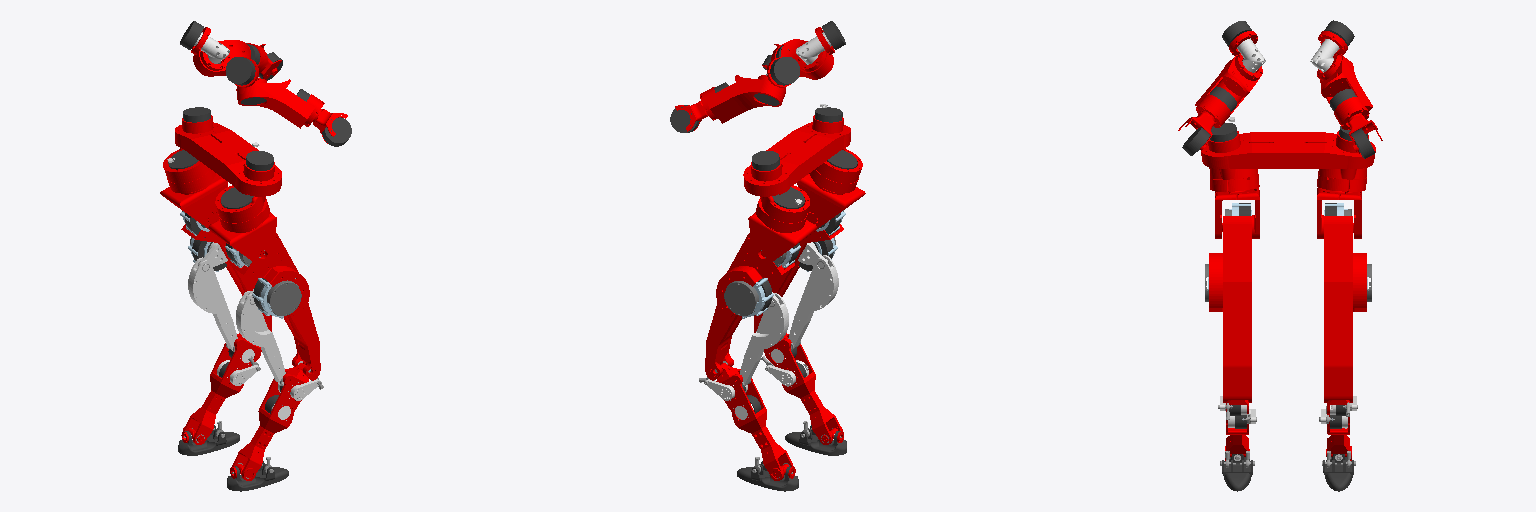
--- Render facts (derived) ---
3 views of the same robot in one strip: view 1: azimuth 30°, elevation 25°; view 2: azimuth 150°, elevation 25°; view 3: azimuth 270°, elevation 25° (orthographic).
Robot: urdf — 27 links, 26 joints (20 revolute, 6 fixed); root link torso_subassembly; default pose: every joint at zero.
Links seen in each view (by area): view 1: tigh_subassembly, torso_subassembly, tigh_subassembly_sym, shin_subassembly, shin_subassembly_sym, shoulder2_subassembly, hipx_subassembly, hipy_subassembly, hipx_subassemby_sym, hipy_subassembly_sym, torso_subassembly_2, shoulder2_subassembly_2 (+3 smaller); view 2: tigh_subassembly_sym, torso_subassembly, tigh_subassembly, shin_subassembly_sym, shin_subassembly, shoulder2_subassembly_2, hipx_subassemby_sym, hipy_subassembly_sym, hipx_subassembly, hipy_subassembly, torso_subassembly_2, shoulder2_subassembly (+3 smaller); view 3: tigh_subassembly_sym, tigh_subassembly, torso_subassembly, shoulder2_subassembly, shoulder2_subassembly_2, shin_subassembly_sym, shin_subassembly, torso_subassembly_2, hipx_subassemby_sym, hipx_subassembly, hipy_subassembly_sym, foot_subassembly (+6 smaller).
Link boxes in pixels (x1,y1,x2,y2): tigh_subassembly: (225,233,320,385); torso_subassembly: (175,107,281,196); tigh_subassembly_sym: (180,211,271,351); shin_subassembly: (232,363,323,480); shin_subassembly_sym: (183,333,261,444); shoulder2_subassembly: (236,78,324,128); hipx_subassembly: (215,185,269,232); hipy_subassembly: (208,212,276,265); hipx_subassemby_sym: (163,148,216,193); hipy_subassembly_sym: (160,174,227,228); torso_subassembly_2: (180,21,258,87); shoulder2_subassembly_2: (193,40,267,76); tigh_subassembly_sym: (705,233,800,387); torso_subassembly: (743,104,850,196); tigh_subassembly: (754,210,845,350); shin_subassembly_sym: (699,363,793,480); shin_subassembly: (761,333,842,444); shoulder2_subassembly_2: (700,75,785,123); hipx_subassemby_sym: (756,185,809,232); hipy_subassembly_sym: (748,212,816,265); hipx_subassembly: (809,148,862,193); hipy_subassembly: (797,174,865,228); torso_subassembly_2: (767,21,845,87); shoulder2_subassembly: (771,39,833,79); tigh_subassembly_sym: (1324,203,1371,402); tigh_subassembly: (1205,203,1251,402); torso_subassembly: (1201,117,1375,168); shoulder2_subassembly: (1195,53,1262,127); shoulder2_subassembly_2: (1317,52,1372,129); shin_subassembly_sym: (1319,396,1357,460); shin_subassembly: (1218,396,1256,460); torso_subassembly_2: (1222,20,1354,55); hipx_subassemby_sym: (1317,168,1366,193); hipx_subassembly: (1209,168,1259,193); hipy_subassembly_sym: (1317,187,1361,238); foot_subassembly: (1220,451,1254,491).
Bounding box of the posed robot: 0.3127 × 0.4249 × 1.02 m (x, y, z).
184 mesh visuals loaded from 59 distinct referenced files (56 binary STL); not drawn: 11 (reference not matched to a file when rendering).

URDF robot description (urdf):
<?xml version="1.0" ?>
<!-- Generated using onshape-to-robot -->
<!-- Onshape https://cad.onshape.com/documents/fb645318a27646d1d8840be6/w/d1cae8805fb652b4d1614997/e/64ce30b04dcb58987e9083b2 -->
<robot name="urdf">
  <!-- Link torso_subassembly -->
  <link name="torso_subassembly">
    <inertial>
      <origin xyz="-0.000697254 4.08729e-07 0.0361785" rpy="0 0 0"/>
      <mass value="1.37455"/>
      <inertia ixx="0.0195228" ixy="-3.0234e-10" ixz="1.40229e-06" iyy="0.00129235" iyz="1.22091e-10" izz="0.0197822"/>
    </inertial>
    <!-- Part rs00 -->
    <!-- Part torso22 -->
    <visual>
      <origin xyz="-0.000263039 0.233572 -0.0901625" rpy="-2.85923 1.2395e-17 -3.14159"/>
      <geometry>
        <mesh filename="package://assets/torso22.stl"/>
      </geometry>
      <material name="torso22_material">
        <color rgba="1 0 0 1"/>
      </material>
    </visual>
    <collision>
      <origin xyz="-0.000263039 0.233572 -0.0901625" rpy="-2.85923 1.2395e-17 -3.14159"/>
      <geometry>
        <mesh filename="package://assets/torso22.stl"/>
      </geometry>
    </collision>
    <!-- Part hex_socket_head_cap_screw_m4x0_70_x_20__832e47d784177ea3f1dabbaab534416e -->
    <!-- Part rs00_2 -->
    <!-- Part hex_socket_head_cap_screw_m4x0_70_x_20__832e47d784177ea3f1dabbaab534416e_2 -->
    <!-- Part hex_socket_head_cap_screw_m3x0_50_x_8__d566997e1880d7fd3377c5b0ee12206c -->
    <!-- Part hex_socket_head_cap_screw_m3x0_50_x_8__d566997e1880d7fd3377c5b0ee12206c_2 -->
    <!-- Part bearing_35_72_17 -->
    <visual>
      <origin xyz="-0.000887454 -0.130401 0.0222352" rpy="1.42962 -0.00345593 -3.1411"/>
      <geometry>
        <mesh filename="package://assets/bearing_35_72_17.stl"/>
      </geometry>
      <material name="bearing_35_72_17_material">
        <color rgba="0.768627 0.886275 0.952941 1"/>
      </material>
    </visual>
    <collision>
      <origin xyz="-0.000887454 -0.130401 0.0222352" rpy="1.42962 -0.00345593 -3.1411"/>
      <geometry>
        <mesh filename="package://assets/bearing_35_72_17.stl"/>
      </geometry>
    </collision>
    <!-- Part hex_socket_head_cap_screw_m4x0_70_x_20__832e47d784177ea3f1dabbaab534416e_3 -->
    <!-- Part hex_socket_head_cap_screw_m4x0_70_x_20__832e47d784177ea3f1dabbaab534416e_4 -->
    <!-- Part hex_socket_head_cap_screw_m4x0_70_x_20__832e47d784177ea3f1dabbaab534416e_5 -->
    <!-- Part robstrideo0 -->
    <visual>
      <origin xyz="0.672086 -0.147255 0.0629195" rpy="1.42962 -0.00345593 -3.1411"/>
      <geometry>
        <mesh filename="package://assets/robstrideo0.stl"/>
      </geometry>
      <material name="robstrideo0_material">
        <color rgba="0.301961 0.301961 0.301961 1"/>
      </material>
    </visual>
    <collision>
      <origin xyz="0.672086 -0.147255 0.0629195" rpy="1.42962 -0.00345593 -3.1411"/>
      <geometry>
        <mesh filename="package://assets/robstrideo0.stl"/>
      </geometry>
    </collision>
    <!-- Part hex_socket_head_cap_screw_m3x0_50_x_8__d566997e1880d7fd3377c5b0ee12206c_3 -->
    <!-- Part hex_socket_head_cap_screw_m4x0_70_x_20__832e47d784177ea3f1dabbaab534416e_6 -->
    <!-- Part hex_socket_head_cap_screw_m3x0_50_x_8__d566997e1880d7fd3377c5b0ee12206c_4 -->
    <!-- Part hex_socket_head_cap_screw_m4x0_70_x_20__832e47d784177ea3f1dabbaab534416e_7 -->
    <!-- Part hex_socket_head_cap_screw_m4x0_70_x_20__832e47d784177ea3f1dabbaab534416e_8 -->
    <!-- Part hex_socket_head_cap_screw_m3x0_50_x_8__d566997e1880d7fd3377c5b0ee12206c_5 -->
    <!-- Part hex_socket_head_cap_screw_m4x0_70_x_20__832e47d784177ea3f1dabbaab534416e_9 -->
    <!-- Part hex_socket_head_cap_screw_m3x0_50_x_8__d566997e1880d7fd3377c5b0ee12206c_6 -->
    <!-- Part robstrideo0_2 -->
    <visual>
      <origin xyz="0.672086 0.12555 0.0660044" rpy="1.71198 -0.00345593 3.1411"/>
      <geometry>
        <mesh filename="package://assets/robstrideo0.stl"/>
      </geometry>
      <material name="robstrideo0_2_material">
        <color rgba="0.301961 0.301961 0.301961 1"/>
      </material>
    </visual>
    <collision>
      <origin xyz="0.672086 0.12555 0.0660044" rpy="1.71198 -0.00345593 3.1411"/>
      <geometry>
        <mesh filename="package://assets/robstrideo0.stl"/>
      </geometry>
    </collision>
    <!-- Part hex_socket_head_cap_screw_m3x0_50_x_8__d566997e1880d7fd3377c5b0ee12206c_7 -->
    <!-- Part hex_socket_head_cap_screw_m3x0_50_x_8__d566997e1880d7fd3377c5b0ee12206c_8 -->
    <!-- Part hex_socket_head_cap_screw_m4x0_70_x_20__832e47d784177ea3f1dabbaab534416e_10 -->
    <!-- Part torso12 -->
    <visual>
      <origin xyz="-0.000263039 4.05842e-07 -0.056966" rpy="-3.14159 1.39466e-17 3.14159"/>
      <geometry>
        <mesh filename="package://assets/torso12.stl"/>
      </geometry>
      <material name="torso12_material">
        <color rgba="1 0 0 1"/>
      </material>
    </visual>
    <collision>
      <origin xyz="-0.000263039 4.05842e-07 -0.056966" rpy="-3.14159 1.39466e-17 3.14159"/>
      <geometry>
        <mesh filename="package://assets/torso12.stl"/>
      </geometry>
    </collision>
    <!-- Part hex_socket_head_cap_screw_m4x0_70_x_20__832e47d784177ea3f1dabbaab534416e_11 -->
    <!-- Part hex_socket_head_cap_screw_m4x0_70_x_20__832e47d784177ea3f1dabbaab534416e_12 -->
    <!-- Part torso22_2 -->
    <visual>
      <origin xyz="-0.000263039 4.05842e-07 -0.056966" rpy="-3.14159 1.39466e-17 3.14159"/>
      <geometry>
        <mesh filename="package://assets/torso22.stl"/>
      </geometry>
      <material name="torso22_2_material">
        <color rgba="1 0 0 1"/>
      </material>
    </visual>
    <collision>
      <origin xyz="-0.000263039 4.05842e-07 -0.056966" rpy="-3.14159 1.39466e-17 3.14159"/>
      <geometry>
        <mesh filename="package://assets/torso22.stl"/>
      </geometry>
    </collision>
    <!-- Part hex_socket_head_cap_screw_m4x0_70_x_20__832e47d784177ea3f1dabbaab534416e_13 -->
    <!-- Part bearing_35_72_17_2 -->
    <visual>
      <origin xyz="-0.000887454 0.130402 0.0222352" rpy="1.71198 -0.00345593 3.1411"/>
      <geometry>
        <mesh filename="package://assets/bearing_35_72_17.stl"/>
      </geometry>
      <material name="bearing_35_72_17_2_material">
        <color rgba="0.768627 0.886275 0.952941 1"/>
      </material>
    </visual>
    <collision>
      <origin xyz="-0.000887454 0.130402 0.0222352" rpy="1.71198 -0.00345593 3.1411"/>
      <geometry>
        <mesh filename="package://assets/bearing_35_72_17.stl"/>
      </geometry>
    </collision>
    <!-- Part hex_socket_head_cap_screw_m3x0_50_x_8__d566997e1880d7fd3377c5b0ee12206c_9 -->
    <!-- Part hex_socket_head_cap_screw_m3x0_50_x_8__d566997e1880d7fd3377c5b0ee12206c_10 -->
    <!-- Part hex_socket_head_cap_screw_m3x0_50_x_8__d566997e1880d7fd3377c5b0ee12206c_11 -->
    <!-- Part hex_socket_head_cap_screw_m4x0_70_x_20__832e47d784177ea3f1dabbaab534416e_14 -->
    <!-- Part xt_30_2x2_f -->
    <visual>
      <origin xyz="-3.97731e-05 -0.105809 0.0903709" rpy="3.11704 -1.42957 -1.54599"/>
      <geometry>
        <mesh filename="package://assets/xt_30_2x2_f.stl"/>
      </geometry>
      <material name="xt_30_2x2_f_material">
        <color rgba="0.917647 0.917647 0.917647 1"/>
      </material>
    </visual>
    <collision>
      <origin xyz="-3.97731e-05 -0.105809 0.0903709" rpy="3.11704 -1.42957 -1.54599"/>
      <geometry>
        <mesh filename="package://assets/xt_30_2x2_f.stl"/>
      </geometry>
    </collision>
    <!-- Part hex_socket_head_cap_screw_m4x0_70_x_20__832e47d784177ea3f1dabbaab534416e_15 -->
    <!-- Part hex_socket_head_cap_screw_m4x0_70_x_20__832e47d784177ea3f1dabbaab534416e_16 -->
    <!-- Part hex_socket_head_cap_screw_m3x0_50_x_8__d566997e1880d7fd3377c5b0ee12206c_12 -->
  </link>
  <!-- Frame torso (dummy link + fixed joint) -->
  <link name="torso">
    <origin xyz="0 0 0" rpy="0 -0 0"/>
    <inertial>
      <origin xyz="0 0 0" rpy="0 0 0"/>
      <mass value="1e-9"/>
      <inertia ixx="0" ixy="0" ixz="0" iyy="0" iyz="0" izz="0"/>
    </inertial>
  </link>
  <joint name="torso_frame" type="fixed">
    <origin xyz="2.52201e-19 -1.6263e-19 -2.60209e-18" rpy="0 -0 -1.28128e-29"/>
    <parent link="torso_subassembly"/>
    <child link="torso"/>
    <axis xyz="0 0 0"/>
  </joint>
  <!-- Link hipx_subassembly -->
  <link name="hipx_subassembly">
    <inertial>
      <origin xyz="-0.0179437 -0.0274254 -0.0837243" rpy="0 0 0"/>
      <mass value="0.794013"/>
      <inertia ixx="0.00093782" ixy="-4.40032e-05" ixz="-0.00011053" iyy="0.000903422" iyz="-0.000168643" izz="0.00100397"/>
    </inertial>
    <!-- Part rs02 -->
    <!-- Part hex_socket_head_cap_screw_m4x0_70_x_40__14321d45d56569246e7feb4574a6bae6 -->
    <!-- Part hex_socket_head_cap_screw_m3x0_50_x_8__d566997e1880d7fd3377c5b0ee12206c_13 -->
    <!-- Part hex_socket_head_cap_screw_m3x0_50_x_8__d566997e1880d7fd3377c5b0ee12206c_14 -->
    <!-- Part hex_socket_head_cap_screw_m4x0_70_x_40__14321d45d56569246e7feb4574a6bae6_2 -->
    <!-- Part hex_socket_head_cap_screw_m3x0_50_x_8__d566997e1880d7fd3377c5b0ee12206c_15 -->
    <!-- Part xt_30_2x2_f_2 -->
    <visual>
      <origin xyz="-0.0280156 -0.000591536 -0.0506633" rpy="-2.51827 -1.25093 -2.15149"/>
      <geometry>
        <mesh filename="package://assets/xt_30_2x2_f.stl"/>
      </geometry>
      <material name="xt_30_2x2_f_2_material">
        <color rgba="0.917647 0.917647 0.917647 1"/>
      </material>
    </visual>
    <collision>
      <origin xyz="-0.0280156 -0.000591536 -0.0506633" rpy="-2.51827 -1.25093 -2.15149"/>
      <geometry>
        <mesh filename="package://assets/xt_30_2x2_f.stl"/>
      </geometry>
    </collision>
    <!-- Part hex_socket_head_cap_screw_m3x0_50_x_8__d566997e1880d7fd3377c5b0ee12206c_16 -->
    <!-- Part hex_socket_head_cap_screw_m4x0_70_x_40__14321d45d56569246e7feb4574a6bae6_3 -->
    <!-- Part hex_socket_head_cap_screw_m4x0_70_x_40__14321d45d56569246e7feb4574a6bae6_4 -->
    <!-- Part hex_socket_head_cap_screw_m3x0_50_x_8__d566997e1880d7fd3377c5b0ee12206c_17 -->
    <!-- Part hipz12 -->
    <visual>
      <origin xyz="-2.77556e-17 -1.38778e-17 -0.1" rpy="-3.14159 1.57951e-17 3.3389e-17"/>
      <geometry>
        <mesh filename="package://assets/hipz12.stl"/>
      </geometry>
      <material name="hipz12_material">
        <color rgba="1 0 0 1"/>
      </material>
    </visual>
    <collision>
      <origin xyz="-2.77556e-17 -1.38778e-17 -0.1" rpy="-3.14159 1.57951e-17 3.3389e-17"/>
      <geometry>
        <mesh filename="package://assets/hipz12.stl"/>
      </geometry>
    </collision>
    <!-- Part hex_socket_head_cap_screw_m4x0_70_x_40__14321d45d56569246e7feb4574a6bae6_5 -->
    <!-- Part hex_socket_head_cap_screw_m3x0_50_x_8__d566997e1880d7fd3377c5b0ee12206c_18 -->
    <!-- Part hex_socket_head_cap_screw_m3x0_50_x_8__d566997e1880d7fd3377c5b0ee12206c_19 -->
    <!-- Part robstride02 -->
    <visual>
      <origin xyz="-0.575896 0.0494047 -0.172196" rpy="-1.29671 -0.167023 -0.0467087"/>
      <geometry>
        <mesh filename="package://assets/robstride02.stl"/>
      </geometry>
      <material name="robstride02_material">
        <color rgba="0.301961 0.301961 0.301961 1"/>
      </material>
    </visual>
    <collision>
      <origin xyz="-0.575896 0.0494047 -0.172196" rpy="-1.29671 -0.167023 -0.0467087"/>
      <geometry>
        <mesh filename="package://assets/robstride02.stl"/>
      </geometry>
    </collision>
    <!-- Part hex_socket_head_cap_screw_m4x0_70_x_40__14321d45d56569246e7feb4574a6bae6_6 -->
    <!-- Part hex_socket_head_cap_screw_m3x0_50_x_8__d566997e1880d7fd3377c5b0ee12206c_20 -->
    <!-- Part hex_socket_head_cap_screw_m4x0_70_x_40__14321d45d56569246e7feb4574a6bae6_7 -->
    <!-- Part hex_socket_head_cap_screw_m4x0_70_x_40__14321d45d56569246e7feb4574a6bae6_8 -->
    <!-- Part hex_socket_head_cap_screw_m3x0_50_x_8__d566997e1880d7fd3377c5b0ee12206c_21 -->
    <!-- Part bearing_35_72_17_3 -->
    <visual>
      <origin xyz="-0.01759 -0.0267968 -0.104484" rpy="1.84488 -0.167023 -0.0467087"/>
      <geometry>
        <mesh filename="package://assets/bearing_35_72_17.stl"/>
      </geometry>
      <material name="bearing_35_72_17_3_material">
        <color rgba="0.768627 0.886275 0.952941 1"/>
      </material>
    </visual>
    <collision>
      <origin xyz="-0.01759 -0.0267968 -0.104484" rpy="1.84488 -0.167023 -0.0467087"/>
      <geometry>
        <mesh filename="package://assets/bearing_35_72_17.stl"/>
      </geometry>
    </collision>
    <!-- Part hex_socket_head_cap_screw_m3x0_50_x_8__d566997e1880d7fd3377c5b0ee12206c_22 -->
    <!-- Part hex_socket_head_cap_screw_m3x0_50_x_8__d566997e1880d7fd3377c5b0ee12206c_23 -->
    <!-- Part hex_socket_head_cap_screw_m4x0_70_x_40__14321d45d56569246e7feb4574a6bae6_9 -->
    <!-- Part hex_socket_head_cap_screw_m3x0_50_x_8__d566997e1880d7fd3377c5b0ee12206c_24 -->
    <!-- Part hipz22 -->
    <visual>
      <origin xyz="-2.77556e-17 -1.38778e-17 -0.1" rpy="-3.14159 2.36182e-16 9.20664e-16"/>
      <geometry>
        <mesh filename="package://assets/hipz22.stl"/>
      </geometry>
      <material name="hipz22_material">
        <color rgba="1 0 0 1"/>
      </material>
    </visual>
    <collision>
      <origin xyz="-2.77556e-17 -1.38778e-17 -0.1" rpy="-3.14159 2.36182e-16 9.20664e-16"/>
      <geometry>
        <mesh filename="package://assets/hipz22.stl"/>
      </geometry>
    </collision>
    <!-- Part hex_socket_head_cap_screw_m3x0_50_x_8__d566997e1880d7fd3377c5b0ee12206c_25 -->
    <!-- Part hex_socket_head_cap_screw_m3x0_50_x_8__d566997e1880d7fd3377c5b0ee12206c_26 -->
    <!-- Part hex_socket_head_cap_screw_m3x0_50_x_8__d566997e1880d7fd3377c5b0ee12206c_27 -->
    <!-- Part hex_socket_head_cap_screw_m4x0_70_x_40__14321d45d56569246e7feb4574a6bae6_10 -->
  </link>
  <!-- Link hipy_subassembly -->
  <link name="hipy_subassembly">
    <inertial>
      <origin xyz="0.00476547 -0.00266343 -0.0607297" rpy="0 0 0"/>
      <mass value="0.241618"/>
      <inertia ixx="0.000504044" ixy="2.43362e-05" ixz="7.84949e-06" iyy="0.000455767" iyz="-3.61499e-05" izz="0.000428966"/>
    </inertial>
    <!-- Part hex_socket_head_cap_screw_m4x0_70_x_20__832e47d784177ea3f1dabbaab534416e_17 -->
    <!-- Part hipxy -->
    <visual>
      <origin xyz="1.47451e-17 -2.77556e-17 0" rpy="1.7148e-17 1.19907e-17 -1.46952e-17"/>
      <geometry>
        <mesh filename="package://assets/hipxy.stl"/>
      </geometry>
      <material name="hipxy_material">
        <color rgba="1 0 0 1"/>
      </material>
    </visual>
    <collision>
      <origin xyz="1.47451e-17 -2.77556e-17 0" rpy="1.7148e-17 1.19907e-17 -1.46952e-17"/>
      <geometry>
        <mesh filename="package://assets/hipxy.stl"/>
      </geometry>
    </collision>
    <!-- Part hex_socket_head_cap_screw_m4x0_70_x_20__832e47d784177ea3f1dabbaab534416e_18 -->
    <!-- Part hex_socket_head_cap_screw_m4x0_70_x_20__832e47d784177ea3f1dabbaab534416e_19 -->
    <!-- Part hex_socket_head_cap_screw_m4x0_70_x_12__c825518ee8edf1afced0eee1b019b750 -->
    <!-- Part hex_socket_head_cap_screw_m4x0_70_x_20__832e47d784177ea3f1dabbaab534416e_20 -->
    <!-- Part hex_socket_head_cap_screw_m4x0_70_x_12__c825518ee8edf1afced0eee1b019b750_2 -->
    <!-- Part hex_socket_head_cap_screw_m4x0_70_x_12__c825518ee8edf1afced0eee1b019b750_3 -->
    <!-- Part hex_socket_head_cap_screw_m4x0_70_x_20__832e47d784177ea3f1dabbaab534416e_21 -->
    <!-- Part hex_socket_head_cap_screw_m4x0_70_x_20__832e47d784177ea3f1dabbaab534416e_22 -->
    <!-- Part hex_socket_head_cap_screw_m4x0_70_x_12__c825518ee8edf1afced0eee1b019b750_4 -->
    <!-- Part hex_socket_head_cap_screw_m4x0_70_x_12__c825518ee8edf1afced0eee1b019b750_5 -->
    <!-- Part hex_socket_head_cap_screw_m4x0_70_x_12__c825518ee8edf1afced0eee1b019b750_6 -->
  </link>
  <!-- Link tigh_subassembly -->
  <link name="tigh_subassembly">
    <inertial>
      <origin xyz="0.0501976 0.0785779 -0.0353813" rpy="0 0 0"/>
      <mass value="2.5804"/>
      <inertia ixx="0.0174359" ixy="-0.0081889" ixz="0.000938636" iyy="0.00865749" iyz="0.00155247" izz="0.0236145"/>
    </inertial>
    <!-- Part hex_socket_head_cap_screw_m3x0_50_x_10__9c80fcbba574884e63b580474e1ee150 -->
    <!-- Part hex_socket_head_cap_screw_m2_5x0_45_x_6__ec244025d76f8b83b2775022a2cb3232 -->
    <!-- Part hex_socket_head_cap_screw_m4x0_70_x_8__a416dc2a8d778a4ef6150c0739aa89d1 -->
    <!-- Part hex_socket_head_cap_screw_m2_5x0_45_x_6__ec244025d76f8b83b2775022a2cb3232_2 -->
    <!-- Part hex_socket_head_cap_screw_m4x0_70_x_8__a416dc2a8d778a4ef6150c0739aa89d1_2 -->
    <!-- Part hex_socket_head_cap_screw_m3x0_50_x_10__9c80fcbba574884e63b580474e1ee150_2 -->
    <!-- Part hex_socket_head_cap_screw_m4x0_70_x_16__8d628c0d7a90368385b1c4c7479647eb -->
    <!-- Part hex_socket_head_cap_screw_m4x0_70_x_8__a416dc2a8d778a4ef6150c0739aa89d1_3 -->
    <!-- Part hex_socket_head_cap_screw_m4x0_70_x_16__8d628c0d7a90368385b1c4c7479647eb_2 -->
    <!-- Part hex_socket_head_cap_screw_m4x0_70_x_8__a416dc2a8d778a4ef6150c0739aa89d1_4 -->
    <!-- Part knee_rod22 -->
    <visual>
      <origin xyz="0.210506 0.184547 -0.0305" rpy="1.5708 -2.80708e-13 -1.0472"/>
      <geometry>
        <mesh filename="package://assets/knee_rod22.stl"/>
      </geometry>
      <material name="knee_rod22_material">
        <color rgba="0.917647 0.917647 0.917647 1"/>
      </material>
    </visual>
    <collision>
      <origin xyz="0.210506 0.184547 -0.0305" rpy="1.5708 -2.80708e-13 -1.0472"/>
      <geometry>
        <mesh filename="package://assets/knee_rod22.stl"/>
      </geometry>
    </collision>
    <!-- Part hex_socket_head_cap_screw_m4x0_70_x_8__a416dc2a8d778a4ef6150c0739aa89d1_5 -->
    <!-- Part hex_socket_head_cap_screw_m4x0_70_x_16__8d628c0d7a90368385b1c4c7479647eb_3 -->
    <!-- Part hex_socket_head_cap_screw_m4x0_70_x_16__8d628c0d7a90368385b1c4c7479647eb_4 -->
    <!-- Part hex_socket_head_cap_screw_m4x0_70_x_8__a416dc2a8d778a4ef6150c0739aa89d1_6 -->
    <!-- Part bearing_15_21_4 -->
    <visual>
      <origin xyz="0.117923 0.320381 -0.0185" rpy="-1.5708 -2.8068e-13 -1.0472"/>
      <geometry>
        <mesh filename="package://assets/bearing_15_21_4.stl"/>
      </geometry>
      <material name="bearing_15_21_4_material">
        <color rgba="0.647059 0.647059 0.647059 1"/>
      </material>
    </visual>
    <collision>
      <origin xyz="0.117923 0.320381 -0.0185" rpy="-1.5708 -2.8068e-13 -1.0472"/>
      <geometry>
        <mesh filename="package://assets/bearing_15_21_4.stl"/>
      </geometry>
    </collision>
    <!-- Part bearing_15_21_4_2 -->
    <visual>
      <origin xyz="0.0130854 0.122429 -0.0245" rpy="-1.5708 -4.25588e-14 -2.46249e-13"/>
      <geometry>
        <mesh filename="package://assets/bearing_15_21_4.stl"/>
      </geometry>
      <material name="bearing_15_21_4_2_material">
        <color rgba="0.647059 0.647059 0.647059 1"/>
      </material>
    </visual>
    <collision>
      <origin xyz="0.0130854 0.122429 -0.0245" rpy="-1.5708 -4.25588e-14 -2.46249e-13"/>
      <geometry>
        <mesh filename="package://assets/bearing_15_21_4.stl"/>
      </geometry>
    </collision>
    <!-- Part hex_socket_head_cap_screw_m2_5x0_45_x_6__ec244025d76f8b83b2775022a2cb3232_3 -->
    <!-- Part hex_socket_head_cap_screw_m4x0_70_x_8__a416dc2a8d778a4ef6150c0739aa89d1_7 -->
    <!-- Part robstrideo3 -->
    <visual>
      <origin xyz="-0.437806 0.570998 -0.07" rpy="-1.5708 -1.74181e-13 -0.523599"/>
      <geometry>
        <mesh filename="package://assets/robstrideo3.stl"/>
      </geometry>
      <material name="robstrideo3_material">
        <color rgba="0.301961 0.301961 0.301961 1"/>
      </material>
    </visual>
    <collision>
      <origin xyz="-0.437806 0.570998 -0.07" rpy="-1.5708 -1.74181e-13 -0.523599"/>
      <geometry>
        <mesh filename="package://assets/robstrideo3.stl"/>
      </geometry>
    </collision>
    <!-- Part hex_socket_head_cap_screw_m4x0_70_x_16__8d628c0d7a90368385b1c4c7479647eb_5 -->
    <!-- Part bearing_15_21_4_3 -->
    <visual>
      <origin xyz="2.73739e-15 -1.24345e-14 -0.0635" rpy="1.5708 -1.74204e-13 -0.523599"/>
      <geometry>
        <mesh filename="package://assets/bearing_15_21_4.stl"/>
      </geometry>
      <material name="bearing_15_21_4_3_material">
        <color rgba="0.647059 0.647059 0.647059 1"/>
      </material>
    </visual>
    <collision>
      <origin xyz="2.73739e-15 -1.24345e-14 -0.0635" rpy="1.5708 -1.74204e-13 -0.523599"/>
      <geometry>
        <mesh filename="package://assets/bearing_15_21_4.stl"/>
      </geometry>
    </collision>
    <!-- Part bearing_15_21_4_4 -->
    <visual>
      <origin xyz="0.0130854 0.122429 -0.0365" rpy="1.5708 -4.25554e-14 -2.46217e-13"/>
      <geometry>
        <mesh filename="package://assets/bearing_15_21_4.stl"/>
      </geometry>
      <material name="bearing_15_21_4_4_material">
        <color rgba="0.647059 0.647059 0.647059 1"/>
      </material>
    </visual>
    <collision>
      <origin xyz="0.0130854 0.122429 -0.0365" rpy="1.5708 -4.25554e-14 -2.46217e-13"/>
      <geometry>
        <mesh filename="package://assets/bearing_15_21_4.stl"/>
      </geometry>
    </collision>
    <!-- Part hex_socket_head_cap_screw_m4x0_70_x_40__14321d45d56569246e7feb4574a6bae6_11 -->
    <!-- Part bearing_15_21_4_5 -->
    <visual>
      <origin xyz="0.117923 0.320381 -0.0425" rpy="1.5708 -2.80736e-13 -1.0472"/>
      <geometry>
        <mesh filename="package://assets/bearing_15_21_4.stl"/>
      </geometry>
      <material name="bearing_15_21_4_5_material">
        <color rgba="0.647059 0.647059 0.647059 1"/>
      </material>
    </visual>
    <collision>
      <origin xyz="0.117923 0.320381 -0.0425" rpy="1.5708 -2.80736e-13 -1.0472"/>
      <geometry>
        <mesh filename="package://assets/bearing_15_21_4.stl"/>
      </geometry>
    </collision>
    <!-- Part hex_socket_head_cap_screw_m4x0_70_x_40__14321d45d56569246e7feb4574a6bae6_12 -->
    <!-- Part hex_socket_head_cap_screw_m4x0_70_x_8__a416dc2a8d778a4ef6150c0739aa89d1_8 -->
    <!-- Part hex_socket_head_cap_screw_m2_5x0_45_x_6__ec244025d76f8b83b2775022a2cb3232_4 -->
    <!-- Part hex_socket_head_cap_screw_m2_5x0_45_x_6__ec244025d76f8b83b2775022a2cb3232_5 -->
    <!-- Part hex_socket_head_cap_screw_m4x0_70_x_8__a416dc2a8d778a4ef6150c0739aa89d1_9 -->
    <!-- Part knee_rod12 -->
    <visual>
      <origin xyz="0.210506 0.184547 -0.0305" rpy="1.5708 -2.80639e-13 -1.0472"/>
      <geometry>
        <mesh filename="package://assets/knee_rod12.stl"/>
      </geometry>
      <material name="knee_rod12_material">
        <color rgba="0.917647 0.917647 0.917647 1"/>
      </material>
    </visual>
    <collision>
      <origin xyz="0.210506 0.184547 -0.0305" rpy="1.5708 -2.80639e-13 -1.0472"/>
      <geometry>
        <mesh filename="package://assets/knee_rod12.stl"/>
      </geometry>
    </collision>
    <!-- Part hex_socket_head_cap_screw_m4x0_70_x_8__a416dc2a8d778a4ef6150c0739aa89d1_10 -->
    <!-- Part bearing_5_16_5 -->
    <visual>
      <origin xyz="0.17 0.294449 -0.05" rpy="-1.5708 -1.73997e-13 -0.523599"/>
      <geometry>
        <mesh filename="package://assets/bearing_5_16_5.stl"/>
      </geometry>
      <material name="bearing_5_16_5_material">
        <color rgba="0.917647 0.917647 0.917647 1"/>
      </material>
    </visual>
    <collision>
      <origin xyz="0.17 0.294449 -0.05" rpy="-1.5708 -1.73997e-13 -0.523599"/>
      <geometry>
        <mesh filename="package://assets/bearing_5_16_5.stl"/>
      </geometry>
    </collision>
    <!-- Part hex_socket_head_cap_screw_m4x0_70_x_8__a416dc2a8d778a4ef6150c0739aa89d1_11 -->
    <!-- Part hex_socket_head_cap_screw_m4x0_70_x_8__a416dc2a8d778a4ef6150c0739aa89d1_12 -->
    <!-- Part hex_socket_head_cap_screw_m4x0_70_x_8__a416dc2a8d778a4ef6150c0739aa89d1_13 -->
    <!-- Part hex_socket_head_cap_screw_m4x0_70_x_40__14321d45d56569246e7feb4574a6bae6_13 -->
    <!-- Part knee_actuation -->
    <visual>
      <origin xyz="0.058 0.324459 -0.0305" rpy="1.5708 -4.25588e-14 -2.46221e-13"/>
      <geometry>
        <mesh filename="package://assets/knee_actuation.stl"/>
      </geometry>
      <material name="knee_actuation_material">
        <color rgba="0.917647 0.917647 0.917647 1"/>
      </material>
    </visual>
    <collision>
      <origin xyz="0.058 0.324459 -0.0305" rpy="1.5708 -4.25588e-14 -2.46221e-13"/>
      <geometry>
        <mesh filename="package://assets/knee_actuation.stl"/>
      </geometry>
    </collision>
    <!-- Part hex_socket_head_cap_screw_m4x0_70_x_16__8d628c0d7a90368385b1c4c7479647eb_6 -->
    <!-- Part hex_socket_head_cap_screw_m3x0_50_x_10__9c80fcbba574884e63b580474e1ee150_3 -->
    <!-- Part hex_socket_head_cap_screw_m4x0_70_x_8__a416dc2a8d778a4ef6150c0739aa89d1_14 -->
    <!-- Part bearing_5_16_5_2 -->
    <visual>
      <origin xyz="0.17 0.294449 -0.01425" rpy="-1.5708 -1.73997e-13 -0.523599"/>
      <geometry>
        <mesh filename="package://assets/bearing_5_16_5.stl"/>
      </geometry>
      <material name="bearing_5_16_5_2_material">
        <color rgba="0.917647 0.917647 0.917647 1"/>
      </material>
    </visual>
    <collision>
      <origin xyz="0.17 0.294449 -0.01425" rpy="-1.5708 -1.73997e-13 -0.523599"/>
      <geometry>
        <mesh filename="package://assets/bearing_5_16_5.stl"/>
      </geometry>
    </collision>
    <!-- Part femur_22 -->
    <visual>
      <origin xyz="0.17 0.294449 -0.0305" rpy="1.5708 -1.74214e-13 -0.523599"/>
      <geometry>
        <mesh filename="package://assets/femur_22.stl"/>
      </geometry>
      <material name="femur_22_material">
        <color rgba="1 0 0 1"/>
      </material>
    </visual>
    <collision>
      <origin xyz="0.17 0.294449 -0.0305" rpy="1.5708 -1.74214e-13 -0.523599"/>
      <geometry>
        <mesh filename="package://assets/femur_22.stl"/>
      </geometry>
    </collision>
    <!-- Part hex_socket_head_cap_screw_m4x0_70_x_40__14321d45d56569246e7feb4574a6bae6_14 -->
    <!-- Part femur_12 -->
    <visual>
      <origin xyz="0.17 0.294449 -0.0305" rpy="1.5708 -1.73145e-13 -0.523599"/>
      <geometry>
        <mesh filename="package://assets/femur_12.stl"/>
      </geometry>
      <material name="femur_12_material">
        <color rgba="1 0 0 1"/>
      </material>
    </visual>
    <collision>
      <origin xyz="0.17 0.294449 -0.0305" rpy="1.5708 -1.73145e-13 -0.523599"/>
      <geometry>
        <mesh filename="package://assets/femur_12.stl"/>
      </geometry>
    </collision>
    <!-- Part hat_femur -->
    <visual>
      <origin xyz="0.17 0.294449 -0.0305" rpy="1.5708 -1.74159e-13 -0.523599"/>
      <geometry>
        <mesh filename="package://assets/hat_femur.stl"/>
      </geometry>
      <material name="hat_femur_material">
        <color rgba="1 0 0 1"/>
      </material>
    </visual>
    <collision>
      <origin xyz="0.17 0.294449 -0.0305" rpy="1.5708 -1.74159e-13 -0.523599"/>
      <geometry>
        <mesh filename="package://assets/hat_femur.stl"/>
      </geometry>
    </collision>
    <!-- Part part_3 -->
    <visual>
      <origin xyz="3.42434e-15 -2.18714e-14 -0.0938" rpy="-2.61799 1.5708 0"/>
      <geometry>
        <mesh filename="package://assets/part_3.stl"/>
      </geometry>
      <material name="part_3_material">
        <color rgba="1 0 0 1"/>
      </material>
    </visual>
    <collision>
      <origin xyz="3.42434e-15 -2.18714e-14 -0.0938" rpy="-2.61799 1.5708 0"/>
      <geometry>
        <mesh filename="package://assets/part_3.stl"/>
      </geometry>
    </collision>
    <!-- Part robstrideo3_2 -->
    <visual>
      <origin xyz="-0.495806 0.470539 -0.0275" rpy="-1.5708 -1.74181e-13 -0.523599"/>
      <geometry>
        <mesh filename="package://assets/robstrideo3.stl"/>
      </geometry>
      <material name="robstrideo3_2_material">
        <color rgba="0.301961 0.301961 0.301961 1"/>
      </material>
    </visual>
    <collision>
      <origin xyz="-0.495806 0.470539 -0.0275" rpy="-1.5708 -1.74181e-13 -0.523599"/>
      <geometry>
        <mesh filename="package://assets/robstrideo3.stl"/>
      </geometry>
    </collision>
    <!-- Part hex_socket_head_cap_screw_m2_5x0_45_x_6__ec244025d76f8b83b2775022a2cb3232_6 -->
    <!-- Part 1_1_31_qt_942_1 -->
    <visual>
      <origin xyz="4.02109e-15 -5.2458e-15 -0.04" rpy="1.23067e-13 -1.74702e-13 -2.0944"/>
      <geometry>
        <mesh filename="package://assets/1_1_31_qt_942_1.stl"/>
      </geometry>
      <material name="1_1_31_qt_942_1_material">
        <color rgba="0.768627 0.886275 0.952941 1"/>
      </material>
    </visual>
    <collision>
      <origin xyz="4.02109e-15 -5.2458e-15 -0.04" rpy="1.23067e-13 -1.74702e-13 -2.0944"/>
      <geometry>
        <mesh filename="package://assets/1_1_31_qt_942_1.stl"/>
      </geometry>
    </collision>
    <!-- Part 1_1_06_eb903_538_1 -->
    <visual>
      <origin xyz="4.7358e-15 -7.21645e-15 -0.0566" rpy="1.23067e-13 -1.74702e-13 -2.0944"/>
      <geometry>
        <mesh filename="package://assets/1_1_06_eb903_538_1.stl"/>
      </geometry>
      <material name="1_1_06_eb903_538_1_material">
        <color rgba="0.498039 0.498039 0.498039 1"/>
      </material>
    </visual>
    <collision>
      <origin xyz="4.7358e-15 -7.21645e-15 -0.0566" rpy="1.23067e-13 -1.74702e-13 -2.0944"/>
      <geometry>
        <mesh filename="package://assets/1_1_06_eb903_538_1.stl"/>
      </geometry>
    </collision>
    <!-- Part 1_1_31_qt_942_1_2 -->
    <visual>
      <origin xyz="0.058 0.100459 -0.0825" rpy="3.65973e-13 1.86846e-13 2.61799"/>
      <geometry>
        <mesh filename="package://assets/1_1_31_qt_942_1.stl"/>
      </geometry>
      <material name="1_1_31_qt_942_1_2_material">
        <color rgba="0.768627 0.886275 0.952941 1"/>
      </material>
    </visual>
    <collision>
      <origin xyz="0.058 0.100459 -0.0825" rpy="3.65973e-13 1.86846e-13 2.61799"/>
      <geometry>
        <mesh filename="package://assets/1_1_31_qt_942_1.stl"/>
      </geometry>
    </collision>
    <!-- Part 1_1_06_eb903_538_1_2 -->
    <visual>
      <origin xyz="0.058 0.100459 -0.0991" rpy="3.65973e-13 1.86846e-13 2.61799"/>
      <geometry>
        <mesh filename="package://assets/1_1_06_eb903_538_1.stl"/>
      </geometry>
      <material name="1_1_06_eb903_538_1_2_material">
        <color rgba="0.498039 0.498039 0.498039 1"/>
      </material>
    </visual>
    <collision>
      <origin xyz="0.058 0.100459 -0.0991" rpy="3.65973e-13 1.86846e-13 2.61799"/>
      <geometry>
        <mesh filename="package://assets/1_1_06_eb903_538_1.stl"/>
      </geometry>
    </collision>
    <!-- Part 1_1_06_eb903_537_af0_1 -->
    <visual>
      <origin xyz="2.82066e-15 -4.82947e-15 -0.0375" rpy="-2.58441e-13 -1.73114e-13 -0.523599"/>
      <geometry>
        <mesh filename="package://assets/1_1_06_eb903_537_af0_1.stl"/>
      </geometry>
      <material name="1_1_06_eb903_537_af0_1_material">
        <color rgba="0.768627 0.886275 0.952941 1"/>
      </material>
    </visual>
    <collision>
      <origin xyz="2.82066e-15 -4.82947e-15 -0.0375" rpy="-2.58441e-13 -1.73114e-13 -0.523599"/>
      <geometry>
        <mesh filename="package://assets/1_1_06_eb903_537_af0_1.stl"/>
      </geometry>
    </collision>
    <!-- Part 1_1_02_eb901_558_1 -->
    <visual>
      <origin xyz="0 0 1.38778e-17" rpy="-3.14159 -1.30419e-30 1.14757e-18"/>
      <geometry>
        <mesh filename="package://assets/1_1_02_eb901_558_1.stl"/>
      </geometry>
      <material name="1_1_02_eb901_558_1_material">
        <color rgba="0.917647 0.917647 0.917647 1"/>
      </material>
    </visual>
    <collision>
      <origin xyz="0 0 1.38778e-17" rpy="-3.14159 -1.30419e-30 1.14757e-18"/>
      <geometry>
        <mesh filename="package://assets/1_1_02_eb901_558_1.stl"/>
      </geometry>
    </collision>
    <!-- Part 1_1_06_eb903_537_af0_1_2 -->
    <visual>
      <origin xyz="0.058 0.100459 -0.08" rpy="1.72977e-13 -2.58191e-13 -2.0944"/>
      <geometry>
        <mesh filename="package://assets/1_1_06_eb903_537_af0_1.stl"/>
      </geometry>
      <material name="1_1_06_eb903_537_af0_1_2_material">
        <color rgba="0.768627 0.886275 0.952941 1"/>
      </material>
    </visual>
    <collision>
      <origin xyz="0.058 0.100459 -0.08" rpy="1.72977e-13 -2.58191e-13 -2.0944"/>
      <geometry>
        <mesh filename="package://assets/1_1_06_eb903_537_af0_1.stl"/>
      </geometry>
    </collision>
    <!-- Part 1_1_02_eb901_558_1_2 -->
    <visual>
      <origin xyz="0.058 0.100459 -0.0425" rpy="-3.14159 -3.01321e-13 -1.5708"/>
      <geometry>
        <mesh filename="package://assets/1_1_02_eb901_558_1.stl"/>
      </geometry>
      <material name="1_1_02_eb901_558_1_2_material">
        <color rgba="0.917647 0.917647 0.917647 1"/>
      </material>
    </visual>
    <collision>
      <origin xyz="0.058 0.100459 -0.0425" rpy="-3.14159 -3.01321e-13 -1.5708"/>
      <geometry>
        <mesh filename="package://assets/1_1_02_eb901_558_1.stl"/>
      </geometry>
    </collision>
  </link>
  <!-- Link shin_subassembly -->
  <link name="shin_subassembly">
    <inertial>
      <origin xyz="-0.0767411 -0.0485893 6.35117e-05" rpy="0 0 0"/>
      <mass value="0.593267"/>
      <inertia ixx="0.000596584" ixy="-0.000624998" ixz="-7.89922e-05" iyy="0.00138349" iyz="-4.8616e-05" izz="0.00175704"/>
    </inertial>
    <!-- Part hex_socket_head_cap_screw_m2_5x0_45_x_8__dec2226ceabd7d7ca0bb403ec234d89b -->
    <!-- Part rmdx43 -->
    <visual>
      <origin xyz="-0.295552 0.370644 0.019" rpy="1.5708 8.75768e-16 -1.02498"/>
      <geometry>
        <mesh filename="package://assets/rmdx43.stl"/>
      </geometry>
      <material name="rmdx43_material">
        <color rgba="0.301961 0.301961 0.301961 1"/>
      </material>
    </visual>
    <collision>
      <origin xyz="-0.295552 0.370644 0.019" rpy="1.5708 8.75768e-16 -1.02498"/>
      <geometry>
        <mesh filename="package://assets/rmdx43.stl"/>
      </geometry>
    </collision>
    <!-- Part xt_30_2x2_f_3 -->
    <visual>
      <origin xyz="-0.0609859 -0.00236005 -0.0142" rpy="2.11661 -1.5708 0"/>
      <geometry>
        <mesh filename="package://assets/xt_30_2x2_f.stl"/>
      </geometry>
      <material name="xt_30_2x2_f_3_material">
        <color rgba="0.917647 0.917647 0.917647 1"/>
      </material>
    </visual>
    <collision>
      <origin xyz="-0.0609859 -0.00236005 -0.0142" rpy="2.11661 -1.5708 0"/>
      <geometry>
        <mesh filename="package://assets/xt_30_2x2_f.stl"/>
      </geometry>
    </collision>
    <!-- Part hex_socket_head_cap_screw_m3x0_50_x_20__7252065e4445f5ec71347b53fcae11e4 -->
    <!-- Part hex_socket_head_cap_screw_m3x0_50_x_10__9c80fcbba574884e63b580474e1ee150_4 -->
    <!-- Part tibias22 -->
    <visual>
      <origin xyz="-0.222223 -0.134971 0.019" rpy="-1.5708 9.10462e-16 -1.02498"/>
      <geometry>
        <mesh filename="package://assets/tibias22.stl"/>
      </geometry>
      <material name="tibias22_material">
        <color rgba="1 0 0 1"/>
      </material>
    </visual>
    <collision>
      <origin xyz="-0.222223 -0.134971 0.019" rpy="-1.5708 9.10462e-16 -1.02498"/>
      <geometry>
        <mesh filename="package://assets/tibias22.stl"/>
      </geometry>
    </collision>
    <!-- Part 27628_01_050_catpart -->
    <visual>
      <origin xyz="0.00445119 -0.0325026 0.02" rpy="-1.5708 -2.04027e-13 -1.32673"/>
      <geometry>
        <mesh filename="package://assets/27628_01_050_catpart.stl"/>
      </geometry>
      <material name="27628_01_050_catpart_material">
        <color rgba="0.690196 0.690196 0.690196 1"/>
      </material>
    </visual>
    <collision>
      <origin xyz="0.00445119 -0.0325026 0.02" rpy="-1.5708 -2.04027e-13 -1.32673"/>
      <geometry>
        <mesh filename="package://assets/27628_01_050_catpart.stl"/>
      </geometry>
    </collision>
    <!-- Part hex_socket_head_cap_screw_m3x0_50_x_10__9c80fcbba574884e63b580474e1ee150_5 -->
    <!-- Part hex_socket_head_cap_screw_m3x0_50_x_10__9c80fcbba574884e63b580474e1ee150_6 -->
    <!-- Part hex_socket_head_cap_screw_m3x0_50_x_10__9c80fcbba574884e63b580474e1ee150_7 -->
    <!-- Part hex_thin_nut_grade_a___b_m4x0_7__a8228d9ce5dcc05f24da0a2f74d882f3 -->
    <visual>
      <origin xyz="-1.38778e-17 5.55112e-17 0.0247602" rpy="2.70617e-16 1.23165e-16 6.12415e-17"/>
      <geometry>
        <mesh filename="package://assets/hex_thin_nut_grade_a___b_m4x0_7__a8228d9ce5dcc05f24da0a2f74d882f3.stl"/>
      </geometry>
      <material name="hex_thin_nut_grade_a___b_m4x0_7__a8228d9ce5dcc05f24da0a2f74d882f3_material">
        <color rgba="0.603922 0.647059 0.686275 1"/>
      </material>
    </visual>
    <collision>
      <origin xyz="-1.38778e-17 5.55112e-17 0.0247602" rpy="2.70617e-16 1.23165e-16 6.12415e-17"/>
      <geometry>
        <mesh filename="package://assets/hex_thin_nut_grade_a___b_m4x0_7__a8228d9ce5dcc05f24da0a2f74d882f3.stl"/>
      </geometry>
    </collision>
    <!-- Part 07534_05x40_catpart -->
    <visual>
      <origin xyz="0 5.55112e-17 -0.025" rpy="-1.5708 -1.5708 0"/>
      <geometry>
        <mesh filename="package://assets/07534_05x40_catpart.stl"/>
      </geometry>
      <material name="07534_05x40_catpart_material">
        <color rgba="0.690196 0.690196 0.690196 1"/>
      </material>
    </visual>
    <collision>
      <origin xyz="0 5.55112e-17 -0.025" rpy="-1.5708 -1.5708 0"/>
      <geometry>
        <mesh filename="package://assets/07534_05x40_catpart.stl"/>
      </geometry>
    </collision>
    <!-- Part hex_thin_nut_grade_a___b_m4x0_7__a8228d9ce5dcc05f24da0a2f74d882f3_2 -->
    <visual>
      <origin xyz="-0.0408481 -0.0600158 -0.0112398" rpy="-3.14159 4.0177e-16 -0.0999536"/>
      <geometry>
        <mesh filename="package://assets/hex_thin_nut_grade_a___b_m4x0_7__a8228d9ce5dcc05f24da0a2f74d882f3.stl"/>
      </geometry>
      <material name="hex_thin_nut_grade_a___b_m4x0_7__a8228d9ce5dcc05f24da0a2f74d882f3_2_material">
        <color rgba="0.603922 0.647059 0.686275 1"/>
      </material>
    </visual>
    <collision>
      <origin xyz="-0.0408481 -0.0600158 -0.0112398" rpy="-3.14159 4.0177e-16 -0.0999536"/>
      <geometry>
        <mesh filename="package://assets/hex_thin_nut_grade_a___b_m4x0_7__a8228d9ce5dcc05f24da0a2f74d882f3.stl"/>
      </geometry>
    </collision>
    <!-- Part hex_socket_head_cap_screw_m3x0_50_x_20__7252065e4445f5ec71347b53fcae11e4_2 -->
    <!-- Part hex_socket_head_cap_screw_m3x0_50_x_10__9c80fcbba574884e63b580474e1ee150_8 -->
    <!-- Part 07534_05x20_catpart -->
    <visual>
      <origin xyz="-0.0408481 -0.0600158 -0.041" rpy="3.04164 -1.5708 0"/>
      <geometry>
        <mesh filename="package://assets/07534_05x20_catpart.stl"/>
      </geometry>
      <material name="07534_05x20_catpart_material">
        <color rgba="0.690196 0.690196 0.690196 1"/>
      </material>
    </visual>
    <collision>
      <origin xyz="-0.0408481 -0.0600158 -0.041" rpy="3.04164 -1.5708 0"/>
      <geometry>
        <mesh filename="package://assets/07534_05x20_catpart.stl"/>
      </geometry>
    </collision>
    <!-- Part actuation_ankle -->
    <visual>
      <origin xyz="-0.029932 0.125718 -0.019" rpy="1.5708 2.45489e-13 -0.0999536"/>
      <geometry>
        <mesh filename="package://assets/actuation_ankle.stl"/>
      </geometry>
      <material name="actuation_ankle_material">
        <color rgba="0.917647 0.917647 0.917647 1"/>
      </material>
    </visual>
    <collision>
      <origin xyz="-0.029932 0.125718 -0.019" rpy="1.5708 2.45489e-13 -0.0999536"/>
      <geometry>
        <mesh filename="package://assets/actuation_ankle.stl"/>
      </geometry>
    </collision>
    <!-- Part hex_socket_head_cap_screw_m3x0_50_x_30__cb22dc4460edbee8e1cbddf29677c00f -->
    <!-- Part rmdx43_2 -->
    <visual>
      <origin xyz="-0.340851 0.343131 0.006" rpy="1.5708 9.55565e-16 -1.02498"/>
      <geometry>
        <mesh filename="package://assets/rmdx43.stl"/>
      </geometry>
      <material name="rmdx43_2_material">
        <color rgba="0.301961 0.301961 0.301961 1"/>
      </material>
    </visual>
    <collision>
      <origin xyz="-0.340851 0.343131 0.006" rpy="1.5708 9.55565e-16 -1.02498"/>
      <geometry>
        <mesh filename="package://assets/rmdx43.stl"/>
      </geometry>
    </collision>
    <!-- Part hex_socket_head_cap_screw_m3x0_50_x_10__9c80fcbba574884e63b580474e1ee150_9 -->
    <!-- Part hex_socket_head_cap_screw_m3x0_50_x_20__7252065e4445f5ec71347b53fcae11e4_3 -->
    <!-- Part hex_socket_head_cap_screw_m3x0_50_x_10__9c80fcbba574884e63b580474e1ee150_10 -->
    <!-- Part hex_socket_head_cap_screw_m3x0_50_x_10__9c80fcbba574884e63b580474e1ee150_11 -->
    <!-- Part hex_socket_head_cap_screw_m3x0_50_x_10__9c80fcbba574884e63b580474e1ee150_12 -->
    <!-- Part hex_socket_head_cap_screw_m4x0_70_x_12__c825518ee8edf1afced0eee1b019b750_7 -->
    <!-- Part hex_socket_head_cap_screw_m3x0_50_x_20__7252065e4445f5ec71347b53fcae11e4_4 -->
    <!-- Part hex_socket_head_cap_screw_m3x0_50_x_20__7252065e4445f5ec71347b53fcae11e4_5 -->
    <!-- Part hex_socket_head_cap_screw_m3x0_50_x_10__9c80fcbba574884e63b580474e1ee150_13 -->
    <!-- Part hex_socket_head_cap_screw_m3x0_50_x_10__9c80fcbba574884e63b580474e1ee150_14 -->
    <!-- Part hex_socket_head_cap_screw_m3x0_50_x_10__9c80fcbba574884e63b580474e1ee150_15 -->
    <!-- Part hex_socket_head_cap_screw_m3x0_50_x_10__9c80fcbba574884e63b580474e1ee150_16 -->
    <!-- Part hex_socket_head_cap_screw_m3x0_50_x_20__7252065e4445f5ec71347b53fcae11e4_6 -->
    <!-- Part hex_socket_head_cap_screw_m3x0_50_x_10__9c80fcbba574884e63b580474e1ee150_17 -->
    <!-- Part hex_socket_head_cap_screw_m3x0_50_x_10__9c80fcbba574884e63b580474e1ee150_18 -->
    <!-- Part hex_socket_head_cap_screw_m3x0_50_x_10__9c80fcbba574884e63b580474e1ee150_19 -->
    <!-- Part hex_socket_head_cap_screw_m2_5x0_45_x_8__dec2226ceabd7d7ca0bb403ec234d89b_2 -->
    <!-- Part hex_socket_head_cap_screw_m4x0_70_x_12__c825518ee8edf1afced0eee1b019b750_8 -->
    <!-- Part hat_big -->
    <visual>
      <origin xyz="-0.222223 -0.134971 0.019" rpy="-1.5708 8.51482e-16 -1.02498"/>
      <geometry>
        <mesh filename="package://assets/hat_big.stl"/>
      </geometry>
      <material name="hat_big_material">
        <color rgba="1 0 0 1"/>
      </material>
    </visual>
    <collision>
      <origin xyz="-0.222223 -0.134971 0.019" rpy="-1.5708 8.51482e-16 -1.02498"/>
      <geometry>
        <mesh filename="package://assets/hat_big.stl"/>
      </geometry>
    </collision>
    <!-- Part 07534_05x20_catpart_2 -->
    <visual>
      <origin xyz="0.00445119 -0.0325026 0.041" rpy="-3.04164 1.5708 0"/>
      <geometry>
        <mesh filename="package://assets/07534_05x20_catpart.stl"/>
      </geometry>
      <material name="07534_05x20_catpart_2_material">
        <color rgba="0.690196 0.690196 0.690196 1"/>
      </material>
    </visual>
    <collision>
      <origin xyz="0.00445119 -0.0325026 0.041" rpy="-3.04164 1.5708 0"/>
      <geometry>
        <mesh filename="package://assets/07534_05x20_catpart.stl"/>
      </geometry>
    </collision>
    <!-- Part hex_socket_head_cap_screw_m4x0_70_x_12__c825518ee8edf1afced0eee1b019b750_9 -->
    <!-- Part hex_thin_nut_grade_a___b_m4x0_7__a8228d9ce5dcc05f24da0a2f74d882f3_3 -->
    <visual>
      <origin xyz="0.00445119 -0.0325026 0.0134397" rpy="-3.03451e-13 2.45537e-13 -0.0999536"/>
      <geometry>
        <mesh filename="package://assets/hex_thin_nut_grade_a___b_m4x0_7__a8228d9ce5dcc05f24da0a2f74d882f3.stl"/>
      </geometry>
      <material name="hex_thin_nut_grade_a___b_m4x0_7__a8228d9ce5dcc05f24da0a2f74d882f3_3_material">
        <color rgba="0.603922 0.647059 0.686275 1"/>
      </material>
    </visual>
    <collision>
      <origin xyz="0.00445119 -0.0325026 0.0134397" rpy="-3.03451e-13 2.45537e-13 -0.0999536"/>
      <geometry>
        <mesh filename="package://assets/hex_thin_nut_grade_a___b_m4x0_7__a8228d9ce5dcc05f24da0a2f74d882f3.stl"/>
      </geometry>
    </collision>
    <!-- Part hex_socket_head_cap_screw_m2_5x0_45_x_8__dec2226ceabd7d7ca0bb403ec234d89b_3 -->
    <!-- Part tibias12 -->
    <visual>
      <origin xyz="-0.222223 -0.134971 0.019" rpy="-1.5708 9.20871e-16 -1.02498"/>
      <geometry>
        <mesh filename="package://assets/tibias12.stl"/>
      </geometry>
      <material name="tibias12_material">
        <color rgba="1 0 0 1"/>
      </material>
    </visual>
    <collision>
      <origin xyz="-0.222223 -0.134971 0.019" rpy="-1.5708 9.20871e-16 -1.02498"/>
      <geometry>
        <mesh filename="package://assets/tibias12.stl"/>
      </geometry>
    </collision>
    <!-- Part hex_socket_head_cap_screw_m3x0_50_x_10__9c80fcbba574884e63b580474e1ee150_20 -->
    <!-- Part hex_socket_head_cap_screw_m3x0_50_x_20__7252065e4445f5ec71347b53fcae11e4_7 -->
    <!-- Part hex_socket_head_cap_screw_m3x0_50_x_10__9c80fcbba574884e63b580474e1ee150_21 -->
    <!-- Part hex_socket_head_cap_screw_m3x0_50_x_10__9c80fcbba574884e63b580474e1ee150_22 -->
    <!-- Part xt_30_2x2_f_4 -->
    <visual>
      <origin xyz="-0.105687 -0.0295099 0.0145" rpy="1.02498 1.5708 0"/>
      <geometry>
        <mesh filename="package://assets/xt_30_2x2_f.stl"/>
      </geometry>
      <material name="xt_30_2x2_f_4_material">
        <color rgba="0.917647 0.917647 0.917647 1"/>
      </material>
    </visual>
    <collision>
      <origin xyz="-0.105687 -0.0295099 0.0145" rpy="1.02498 1.5708 0"/>
      <geometry>
        <mesh filename="package://assets/xt_30_2x2_f.stl"/>
      </geometry>
    </collision>
    <!-- Part hex_socket_head_cap_screw_m3x0_50_x_10__9c80fcbba574884e63b580474e1ee150_23 -->
    <!-- Part hex_socket_head_cap_screw_m3x0_50_x_20__7252065e4445f5ec71347b53fcae11e4_8 -->
    <!-- Part actuation_ankle_2 -->
    <visual>
      <origin xyz="-0.105966 -0.208258 0.019" rpy="-1.5708 4.90241e-16 -0.0999536"/>
      <geometry>
        <mesh filename="package://assets/actuation_ankle.stl"/>
      </geometry>
      <material name="actuation_ankle_2_material">
        <color rgba="0.917647 0.917647 0.917647 1"/>
      </material>
    </visual>
    <collision>
      <origin xyz="-0.105966 -0.208258 0.019" rpy="-1.5708 4.90241e-16 -0.0999536"/>
      <geometry>
        <mesh filename="package://assets/actuation_ankle.stl"/>
      </geometry>
    </collision>
    <!-- Part hex_socket_head_cap_screw_m3x0_50_x_10__9c80fcbba574884e63b580474e1ee150_24 -->
    <!-- Part hex_socket_head_cap_screw_m4x0_70_x_12__c825518ee8edf1afced0eee1b019b750_10 -->
    <!-- Part hex_socket_head_cap_screw_m3x0_50_x_20__7252065e4445f5ec71347b53fcae11e4_9 -->
    <!-- Part hex_socket_head_cap_screw_m3x0_50_x_20__7252065e4445f5ec71347b53fcae11e4_10 -->
    <!-- Part 27628_01_050_catpart_2 -->
    <visual>
      <origin xyz="-0.0408481 -0.0600156 -0.023" rpy="-1.5708 3.30387e-16 0.277486"/>
      <geometry>
        <mesh filename="package://assets/27628_01_050_catpart.stl"/>
      </geometry>
      <material name="27628_01_050_catpart_2_material">
        <color rgba="0.690196 0.690196 0.690196 1"/>
      </material>
    </visual>
    <collision>
      <origin xyz="-0.0408481 -0.0600156 -0.023" rpy="-1.5708 3.30387e-16 0.277486"/>
      <geometry>
        <mesh filename="package://assets/27628_01_050_catpart.stl"/>
      </geometry>
    </collision>
    <!-- Part hex_socket_head_cap_screw_m3x0_50_x_10__9c80fcbba574884e63b580474e1ee150_25 -->
    <!-- Part hex_socket_head_cap_screw_m3x0_50_x_20__7252065e4445f5ec71347b53fcae11e4_11 -->
    <!-- Part hex_socket_head_cap_screw_m3x0_50_x_20__7252065e4445f5ec71347b53fcae11e4_12 -->
    <!-- Part hex_socket_head_cap_screw_m3x0_50_x_10__9c80fcbba574884e63b580474e1ee150_26 -->
    <!-- Part hex_socket_head_cap_screw_m3x0_50_x_10__9c80fcbba574884e63b580474e1ee150_27 -->
    <!-- Part 1_1_31_eb463_510_fl46blw10_48v_5n_m_de_2__fl46blw10_48v_5n_m_de -->
    <visual>
      <origin xyz="-0.0905985 -0.0550265 -0.0195" rpy="-3.14159 3.71681e-15 -1.41768"/>
      <geometry>
        <mesh filename="package://assets/1_1_31_eb463_510_fl46blw10_48v_5n_m_de_2__fl46blw10_48v_5n_m_de.stl"/>
      </geometry>
      <material name="1_1_31_eb463_510_fl46blw10_48v_5n_m_de_2__fl46blw10_48v_5n_m_de_material">
        <color rgba="1 1 1 1"/>
      </material>
    </visual>
    <collision>
      <origin xyz="-0.0905985 -0.0550265 -0.0195" rpy="-3.14159 3.71681e-15 -1.41768"/>
      <geometry>
        <mesh filename="package://assets/1_1_31_eb463_510_fl46blw10_48v_5n_m_de_2__fl46blw10_48v_5n_m_de.stl"/>
      </geometry>
    </collision>
    <!-- Part 1_1_02_eb461_502_fl46blw10_48v_5n_m_de_2__fl46blw10_48v_5n_m_de -->
    <visual>
      <origin xyz="-0.0905985 -0.0550265 -0.0095" rpy="-3.14159 3.71681e-15 -1.41768"/>
      <geometry>
        <mesh filename="package://assets/1_1_02_eb461_502_fl46blw10_48v_5n_m_de_2__fl46blw10_48v_5n_m_de.stl"/>
      </geometry>
      <material name="1_1_02_eb461_502_fl46blw10_48v_5n_m_de_2__fl46blw10_48v_5n_m_de_material">
        <color rgba="1 1 1 1"/>
      </material>
    </visual>
    <collision>
      <origin xyz="-0.0905985 -0.0550265 -0.0095" rpy="-3.14159 3.71681e-15 -1.41768"/>
      <geometry>
        <mesh filename="package://assets/1_1_02_eb461_502_fl46blw10_48v_5n_m_de_2__fl46blw10_48v_5n_m_de.stl"/>
      </geometry>
    </collision>
    <!-- Part 1_1_06_eb463_509_fl46blw10_48v_5n_m_de_2__fl46blw10_48v_5n_m_de -->
    <visual>
      <origin xyz="-0.0905985 -0.0550265 0.022" rpy="3.14159 -8.29383e-14 -0.23958"/>
      <geometry>
        <mesh filename="package://assets/1_1_06_eb463_509_fl46blw10_48v_5n_m_de_2__fl46blw10_48v_5n_m_de.stl"/>
      </geometry>
      <material name="1_1_06_eb463_509_fl46blw10_48v_5n_m_de_2__fl46blw10_48v_5n_m_de_material">
        <color rgba="1 1 1 1"/>
      </material>
    </visual>
    <collision>
      <origin xyz="-0.0905985 -0.0550265 0.022" rpy="3.14159 -8.29383e-14 -0.23958"/>
      <geometry>
        <mesh filename="package://assets/1_1_06_eb463_509_fl46blw10_48v_5n_m_de_2__fl46blw10_48v_5n_m_de.stl"/>
      </geometry>
    </collision>
    <!-- Part 1_1_06_eb463_507_fl46blw10_48v_5n_m_de_2__fl46blw10_48v_5n_m_de -->
    <visual>
      <origin xyz="-0.0905985 -0.0550265 0.0085" rpy="3.14159 6.91887e-16 -1.02498"/>
      <geometry>
        <mesh filename="package://assets/1_1_06_eb463_507_fl46blw10_48v_5n_m_de_2__fl46blw10_48v_5n_m_de.stl"/>
      </geometry>
      <material name="1_1_06_eb463_507_fl46blw10_48v_5n_m_de_2__fl46blw10_48v_5n_m_de_material">
        <color rgba="1 1 1 1"/>
      </material>
    </visual>
    <collision>
      <origin xyz="-0.0905985 -0.0550265 0.0085" rpy="3.14159 6.91887e-16 -1.02498"/>
      <geometry>
        <mesh filename="package://assets/1_1_06_eb463_507_fl46blw10_48v_5n_m_de_2__fl46blw10_48v_5n_m_de.stl"/>
      </geometry>
    </collision>
    <!-- Part 1_1_31_eb463_510_fl46blw10_48v_5n_m_de_2__fl46blw10_48v_5n_m_de_2 -->
    <visual>
      <origin xyz="-0.0452992 -0.0275132 0.0195" rpy="1.28121e-15 1.7039e-14 -0.632279"/>
      <geometry>
        <mesh filename="package://assets/1_1_31_eb463_510_fl46blw10_48v_5n_m_de_2__fl46blw10_48v_5n_m_de.stl"/>
      </geometry>
      <material name="1_1_31_eb463_510_fl46blw10_48v_5n_m_de_2__fl46blw10_48v_5n_m_de_2_material">
        <color rgba="1 1 1 1"/>
      </material>
    </visual>
    <collision>
      <origin xyz="-0.0452992 -0.0275132 0.0195" rpy="1.28121e-15 1.7039e-14 -0.632279"/>
      <geometry>
        <mesh filename="package://assets/1_1_31_eb463_510_fl46blw10_48v_5n_m_de_2__fl46blw10_48v_5n_m_de.stl"/>
      </geometry>
    </collision>
    <!-- Part 1_1_02_eb461_502_fl46blw10_48v_5n_m_de_2__fl46blw10_48v_5n_m_de_2 -->
    <visual>
      <origin xyz="-0.0452992 -0.0275132 0.0095" rpy="1.28121e-15 1.7039e-14 -0.632279"/>
      <geometry>
        <mesh filename="package://assets/1_1_02_eb461_502_fl46blw10_48v_5n_m_de_2__fl46blw10_48v_5n_m_de.stl"/>
      </geometry>
      <material name="1_1_02_eb461_502_fl46blw10_48v_5n_m_de_2__fl46blw10_48v_5n_m_de_2_material">
        <color rgba="1 1 1 1"/>
      </material>
    </visual>
    <collision>
      <origin xyz="-0.0452992 -0.0275132 0.0095" rpy="1.28121e-15 1.7039e-14 -0.632279"/>
      <geometry>
        <mesh filename="package://assets/1_1_02_eb461_502_fl46blw10_48v_5n_m_de_2__fl46blw10_48v_5n_m_de.stl"/>
      </geometry>
    </collision>
    <!-- Part 1_1_06_eb463_509_fl46blw10_48v_5n_m_de_2__fl46blw10_48v_5n_m_de_2 -->
    <visual>
      <origin xyz="-0.0452992 -0.0275132 -0.022" rpy="2.97282e-14 -7.88498e-14 -1.81038"/>
      <geometry>
        <mesh filename="package://assets/1_1_06_eb463_509_fl46blw10_48v_5n_m_de_2__fl46blw10_48v_5n_m_de.stl"/>
      </geometry>
      <material name="1_1_06_eb463_509_fl46blw10_48v_5n_m_de_2__fl46blw10_48v_5n_m_de_2_material">
        <color rgba="1 1 1 1"/>
      </material>
    </visual>
    <collision>
      <origin xyz="-0.0452992 -0.0275132 -0.022" rpy="2.97282e-14 -7.88498e-14 -1.81038"/>
      <geometry>
        <mesh filename="package://assets/1_1_06_eb463_509_fl46blw10_48v_5n_m_de_2__fl46blw10_48v_5n_m_de.stl"/>
      </geometry>
    </collision>
    <!-- Part 1_1_06_eb463_507_fl46blw10_48v_5n_m_de_2__fl46blw10_48v_5n_m_de_2 -->
    <visual>
      <origin xyz="-0.0452992 -0.0275132 -0.0085" rpy="1.61219e-16 6.67601e-16 -1.02498"/>
      <geometry>
        <mesh filename="package://assets/1_1_06_eb463_507_fl46blw10_48v_5n_m_de_2__fl46blw10_48v_5n_m_de.stl"/>
      </geometry>
      <material name="1_1_06_eb463_507_fl46blw10_48v_5n_m_de_2__fl46blw10_48v_5n_m_de_2_material">
        <color rgba="1 1 1 1"/>
      </material>
    </visual>
    <collision>
      <origin xyz="-0.0452992 -0.0275132 -0.0085" rpy="1.61219e-16 6.67601e-16 -1.02498"/>
      <geometry>
        <mesh filename="package://assets/1_1_06_eb463_507_fl46blw10_48v_5n_m_de_2__fl46blw10_48v_5n_m_de.stl"/>
      </geometry>
    </collision>
    <!-- Part 0001755652_1_1_30_gr_2202_asm_1_asm_1_1_30_gr_2202_asm_fl46blw10_48v_5n_m_de_2__fl46blw10_48v_5n_m_de -->
    <visual>
      <origin xyz="-0.0824788 -0.0500948 -0.024" rpy="1.02459e-16 -3.48412e-16 2.11661"/>
      <geometry>
        <mesh filename="package://assets/0001755652_1_1_30_gr_2202_asm_1_asm_1_1_30_gr_2202_asm_fl46blw10_48v_5n_m_de_2__fl46blw10_48v_5n_m_de.stl"/>
      </geometry>
      <material name="0001755652_1_1_30_gr_2202_asm_1_asm_1_1_30_gr_2202_asm_fl46blw10_48v_5n_m_de_2__fl46blw10_48v_5n_m_de_material">
        <color rgba="1 1 1 1"/>
      </material>
    </visual>
    <collision>
      <origin xyz="-0.0824788 -0.0500948 -0.024" rpy="1.02459e-16 -3.48412e-16 2.11661"/>
      <geometry>
        <mesh filename="package://assets/0001755652_1_1_30_gr_2202_asm_1_asm_1_1_30_gr_2202_asm_fl46blw10_48v_5n_m_de_2__fl46blw10_48v_5n_m_de.stl"/>
      </geometry>
    </collision>
    <!-- Part 0001755652_1_1_30_gr_2202_asm_1_asm_1_1_30_gr_2202_asm_fl46blw10_48v_5n_m_de_2__fl46blw10_48v_5n_m_de_2 -->
    <visual>
      <origin xyz="-0.0989292 -0.0504604 -0.024" rpy="1.02459e-16 -3.48412e-16 2.11661"/>
      <geometry>
        <mesh filename="package://assets/0001755652_1_1_30_gr_2202_asm_1_asm_1_1_30_gr_2202_asm_fl46blw10_48v_5n_m_de_2__fl46blw10_48v_5n_m_de.stl"/>
      </geometry>
      <material name="0001755652_1_1_30_gr_2202_asm_1_asm_1_1_30_gr_2202_asm_fl46blw10_48v_5n_m_de_2__fl46blw10_48v_5n_m_de_2_material">
        <color rgba="1 1 1 1"/>
      </material>
    </visual>
    <collision>
      <origin xyz="-0.0989292 -0.0504604 -0.024" rpy="1.02459e-16 -3.48412e-16 2.11661"/>
      <geometry>
        <mesh filename="package://assets/0001755652_1_1_30_gr_2202_asm_1_asm_1_1_30_gr_2202_asm_fl46blw10_48v_5n_m_de_2__fl46blw10_48v_5n_m_de.stl"/>
      </geometry>
    </collision>
    <!-- Part 0001755652_1_1_30_gr_2202_asm_1_asm_1_1_30_gr_2202_asm_fl46blw10_48v_5n_m_de_2__fl46blw10_48v_5n_m_de_3 -->
    <visual>
      <origin xyz="-0.0534189 -0.0324449 0.024" rpy="-3.14159 9.49504e-14 2.11661"/>
      <geometry>
        <mesh filename="package://assets/0001755652_1_1_30_gr_2202_asm_1_asm_1_1_30_gr_2202_asm_fl46blw10_48v_5n_m_de_2__fl46blw10_48v_5n_m_de.stl"/>
      </geometry>
      <material name="0001755652_1_1_30_gr_2202_asm_1_asm_1_1_30_gr_2202_asm_fl46blw10_48v_5n_m_de_2__fl46blw10_48v_5n_m_de_3_material">
        <color rgba="1 1 1 1"/>
      </material>
    </visual>
    <collision>
      <origin xyz="-0.0534189 -0.0324449 0.024" rpy="-3.14159 9.49504e-14 2.11661"/>
      <geometry>
        <mesh filename="package://assets/0001755652_1_1_30_gr_2202_asm_1_asm_1_1_30_gr_2202_asm_fl46blw10_48v_5n_m_de_2__fl46blw10_48v_5n_m_de.stl"/>
      </geometry>
    </collision>
    <!-- Part 0001755652_1_1_30_gr_2202_asm_1_asm_1_1_30_gr_2202_asm_fl46blw10_48v_5n_m_de_2__fl46blw10_48v_5n_m_de_4 -->
    <visual>
      <origin xyz="-0.0455103 -0.0180156 0.024" rpy="-3.14159 9.49504e-14 2.11661"/>
      <geometry>
        <mesh filename="package://assets/0001755652_1_1_30_gr_2202_asm_1_asm_1_1_30_gr_2202_asm_fl46blw10_48v_5n_m_de_2__fl46blw10_48v_5n_m_de.stl"/>
      </geometry>
      <material name="0001755652_1_1_30_gr_2202_asm_1_asm_1_1_30_gr_2202_asm_fl46blw10_48v_5n_m_de_2__fl46blw10_48v_5n_m_de_4_material">
        <color rgba="1 1 1 1"/>
      </material>
    </visual>
    <collision>
      <origin xyz="-0.0455103 -0.0180156 0.024" rpy="-3.14159 9.49504e-14 2.11661"/>
      <geometry>
        <mesh filename="package://assets/0001755652_1_1_30_gr_2202_asm_1_asm_1_1_30_gr_2202_asm_fl46blw10_48v_5n_m_de_2__fl46blw10_48v_5n_m_de.stl"/>
      </geometry>
    </collision>
    <!-- Part 0001755652_00mini_000_asm_1_asm_1_asm_00mini__20250103_a0001_asm_1_as_asm_1_1_30_gr_2202_asm_1_asm_1_1_30_gr_2202_asm_fl46blw10_48v_5n_m_de_2__fl46blw10_48v_5n_m_de -->
    <visual>
      <origin xyz="-0.0903874 -0.0645241 -0.024" rpy="1.02459e-16 -3.48412e-16 2.11661"/>
      <geometry>
        <mesh filename="package://assets/0001755652_00mini_000_asm_1_asm_1_asm_00mini__20250103_a0001_asm_1_as_asm_1_1_30_gr_2202_asm_1_asm_1_1_30_gr_2202_asm_fl46blw10_48v_5n_m_de_2__fl46blw10_48v_5n_m_de.stl"/>
      </geometry>
      <material name="0001755652_00mini_000_asm_1_asm_1_asm_00mini__20250103_a0001_asm_1_as_asm_1_1_30_gr_2202_asm_1_asm_1_1_30_gr_2202_asm_fl46blw10_48v_5n_m_de_2__fl46blw10_48v_5n_m_de_material">
        <color rgba="1 1 1 1"/>
      </material>
    </visual>
    <collision>
      <origin xyz="-0.0903874 -0.0645241 -0.024" rpy="1.02459e-16 -3.48412e-16 2.11661"/>
      <geometry>
        <mesh filename="package://assets/0001755652_00mini_000_asm_1_asm_1_asm_00mini__20250103_a0001_asm_1_as_asm_1_1_30_gr_2202_asm_1_asm_1_1_30_gr_2202_asm_fl46blw10_48v_5n_m_de_2__fl46blw10_48v_5n_m_de.stl"/>
      </geometry>
    </collision>
    <!-- Part 6706__300001_1_1_00mini_000_asm_1_asm_1_asm_00mini__20250103_a0001_asm_1_as_asm_1_1_30_gr_2202_asm_1_asm_1_1_30_gr_2202_asm_fl46blw10_48v_5n_m_de_2__fl46blw10_48v_5n_m_de -->
    <visual>
      <origin xyz="-0.0905985 -0.0550265 -0.0205" rpy="1.02459e-16 -3.48412e-16 2.11661"/>
      <geometry>
        <mesh filename="package://assets/6706__300001_1_1_00mini_000_asm_1_asm_1_asm_00mini__20250103_a0001_asm_1_as_asm_1_1_30_gr_2202_asm_1_asm_1_1_30_gr_2202_asm_fl46blw10_48v_5n_m_de_2__fl46blw10_48v_5n_m_de.stl"/>
      </geometry>
      <material name="6706__300001_1_1_00mini_000_asm_1_asm_1_asm_00mini__20250103_a0001_asm_1_as_asm_1_1_30_gr_2202_asm_1_asm_1_1_30_gr_2202_asm_fl46blw10_48v_5n_m_de_2__fl46blw10_48v_5n_m_de_material">
        <color rgba="1 1 1 1"/>
      </material>
    </visual>
    <collision>
      <origin xyz="-0.0905985 -0.0550265 -0.0205" rpy="1.02459e-16 -3.48412e-16 2.11661"/>
      <geometry>
        <mesh filename="package://assets/6706__300001_1_1_00mini_000_asm_1_asm_1_asm_00mini__20250103_a0001_asm_1_as_asm_1_1_30_gr_2202_asm_1_asm_1_1_30_gr_2202_asm_fl46blw10_48v_5n_m_de_2__fl46blw10_48v_5n_m_de.stl"/>
      </geometry>
    </collision>
    <!-- Part 0001755650_00mini_000_asm_1_asm_1_asm_00mini__20250103_a0001_asm_1_as_asm_1_1_30_gr_2202_asm_1_asm_1_1_30_gr_2202_asm_fl46blw10_48v_5n_m_de_2__fl46blw10_48v_5n_m_de -->
    <visual>
      <origin xyz="-0.0905985 -0.0550265 -0.0209" rpy="1.02459e-16 -3.48412e-16 2.11661"/>
      <geometry>
        <mesh filename="package://assets/0001755650_00mini_000_asm_1_asm_1_asm_00mini__20250103_a0001_asm_1_as_asm_1_1_30_gr_2202_asm_1_asm_1_1_30_gr_2202_asm_fl46blw10_48v_5n_m_de_2__fl46blw10_48v_5n_m_de.stl"/>
      </geometry>
      <material name="0001755650_00mini_000_asm_1_asm_1_asm_00mini__20250103_a0001_asm_1_as_asm_1_1_30_gr_2202_asm_1_asm_1_1_30_gr_2202_asm_fl46blw10_48v_5n_m_de_2__fl46blw10_48v_5n_m_de_material">
        <color rgba="1 1 1 1"/>
      </material>
    </visual>
    <collision>
      <origin xyz="-0.0905985 -0.0550265 -0.0209" rpy="1.02459e-16 -3.48412e-16 2.11661"/>
      <geometry>
        <mesh filename="package://assets/0001755650_00mini_000_asm_1_asm_1_asm_00mini__20250103_a0001_asm_1_as_asm_1_1_30_gr_2202_asm_1_asm_1_1_30_gr_2202_asm_fl46blw10_48v_5n_m_de_2__fl46blw10_48v_5n_m_de.stl"/>
      </geometry>
    </collision>
    <!-- Part 0001755652_00mini_000_asm_1_asm_1_asm_00mini__20250103_a0001_asm_1_as_asm_1_1_30_gr_2202_asm_1_asm_1_1_30_gr_2202_asm_fl46blw10_48v_5n_m_de_2__fl46blw10_48v_5n_m_de_2 -->
    <visual>
      <origin xyz="-0.0369685 -0.0320793 0.024" rpy="-3.14159 9.49504e-14 2.11661"/>
      <geometry>
        <mesh filename="package://assets/0001755652_00mini_000_asm_1_asm_1_asm_00mini__20250103_a0001_asm_1_as_asm_1_1_30_gr_2202_asm_1_asm_1_1_30_gr_2202_asm_fl46blw10_48v_5n_m_de_2__fl46blw10_48v_5n_m_de.stl"/>
      </geometry>
      <material name="0001755652_00mini_000_asm_1_asm_1_asm_00mini__20250103_a0001_asm_1_as_asm_1_1_30_gr_2202_asm_1_asm_1_1_30_gr_2202_asm_fl46blw10_48v_5n_m_de_2__fl46blw10_48v_5n_m_de_2_material">
        <color rgba="1 1 1 1"/>
      </material>
    </visual>
    <collision>
      <origin xyz="-0.0369685 -0.0320793 0.024" rpy="-3.14159 9.49504e-14 2.11661"/>
      <geometry>
        <mesh filename="package://assets/0001755652_00mini_000_asm_1_asm_1_asm_00mini__20250103_a0001_asm_1_as_asm_1_1_30_gr_2202_asm_1_asm_1_1_30_gr_2202_asm_fl46blw10_48v_5n_m_de_2__fl46blw10_48v_5n_m_de.stl"/>
      </geometry>
    </collision>
    <!-- Part 6706__300001_1_1_00mini_000_asm_1_asm_1_asm_00mini__20250103_a0001_asm_1_as_asm_1_1_30_gr_2202_asm_1_asm_1_1_30_gr_2202_asm_fl46blw10_48v_5n_m_de_2__fl46blw10_48v_5n_m_de_2 -->
    <visual>
      <origin xyz="-0.0452992 -0.0275132 0.0205" rpy="-3.14159 9.49504e-14 2.11661"/>
      <geometry>
        <mesh filename="package://assets/6706__300001_1_1_00mini_000_asm_1_asm_1_asm_00mini__20250103_a0001_asm_1_as_asm_1_1_30_gr_2202_asm_1_asm_1_1_30_gr_2202_asm_fl46blw10_48v_5n_m_de_2__fl46blw10_48v_5n_m_de.stl"/>
      </geometry>
      <material name="6706__300001_1_1_00mini_000_asm_1_asm_1_asm_00mini__20250103_a0001_asm_1_as_asm_1_1_30_gr_2202_asm_1_asm_1_1_30_gr_2202_asm_fl46blw10_48v_5n_m_de_2__fl46blw10_48v_5n_m_de_2_material">
        <color rgba="1 1 1 1"/>
      </material>
    </visual>
    <collision>
      <origin xyz="-0.0452992 -0.0275132 0.0205" rpy="-3.14159 9.49504e-14 2.11661"/>
      <geometry>
        <mesh filename="package://assets/6706__300001_1_1_00mini_000_asm_1_asm_1_asm_00mini__20250103_a0001_asm_1_as_asm_1_1_30_gr_2202_asm_1_asm_1_1_30_gr_2202_asm_fl46blw10_48v_5n_m_de_2__fl46blw10_48v_5n_m_de.stl"/>
      </geometry>
    </collision>
    <!-- Part 0001755650_00mini_000_asm_1_asm_1_asm_00mini__20250103_a0001_asm_1_as_asm_1_1_30_gr_2202_asm_1_asm_1_1_30_gr_2202_asm_fl46blw10_48v_5n_m_de_2__fl46blw10_48v_5n_m_de_2 -->
    <visual>
      <origin xyz="-0.0452992 -0.0275132 0.0209" rpy="-3.14159 9.49504e-14 2.11661"/>
      <geometry>
        <mesh filename="package://assets/0001755650_00mini_000_asm_1_asm_1_asm_00mini__20250103_a0001_asm_1_as_asm_1_1_30_gr_2202_asm_1_asm_1_1_30_gr_2202_asm_fl46blw10_48v_5n_m_de_2__fl46blw10_48v_5n_m_de.stl"/>
      </geometry>
      <material name="0001755650_00mini_000_asm_1_asm_1_asm_00mini__20250103_a0001_asm_1_as_asm_1_1_30_gr_2202_asm_1_asm_1_1_30_gr_2202_asm_fl46blw10_48v_5n_m_de_2__fl46blw10_48v_5n_m_de_2_material">
        <color rgba="1 1 1 1"/>
      </material>
    </visual>
    <collision>
      <origin xyz="-0.0452992 -0.0275132 0.0209" rpy="-3.14159 9.49504e-14 2.11661"/>
      <geometry>
        <mesh filename="package://assets/0001755650_00mini_000_asm_1_asm_1_asm_00mini__20250103_a0001_asm_1_as_asm_1_1_30_gr_2202_asm_1_asm_1_1_30_gr_2202_asm_fl46blw10_48v_5n_m_de_2__fl46blw10_48v_5n_m_de.stl"/>
      </geometry>
    </collision>
  </link>
  <!-- Link ankle_subassembly -->
  <link name="ankle_subassembly">
    <inertial>
      <origin xyz="-1.62086e-08 -0.000727483 0.02" rpy="0 0 0"/>
      <mass value="0.0168168"/>
      <inertia ixx="5.19458e-06" ixy="2.61119e-12" ixz="4.35145e-12" iyy="4.86353e-06" iyz="-7.24871e-13" izz="8.35665e-07"/>
    </inertial>
    <!-- Part hex_socket_head_cap_screw_m2_5x0_45_x_6__ec244025d76f8b83b2775022a2cb3232_7 -->
    <!-- Part 07534_05x40_catpart_2 -->
    <visual>
      <origin xyz="9.99201e-16 0.0249999 0.02" rpy="-3.14159 3.65712e-14 -1.5708"/>
      <geometry>
        <mesh filename="package://assets/07534_05x40_catpart.stl"/>
      </geometry>
      <material name="07534_05x40_catpart_2_material">
        <color rgba="0.690196 0.690196 0.690196 1"/>
      </material>
    </visual>
    <collision>
      <origin xyz="9.99201e-16 0.0249999 0.02" rpy="-3.14159 3.65712e-14 -1.5708"/>
      <geometry>
        <mesh filename="package://assets/07534_05x40_catpart.stl"/>
      </geometry>
    </collision>
    <!-- Part ujoint -->
    <visual>
      <origin xyz="-1.33227e-15 2.56739e-16 0.02" rpy="3.14159 1.5708 0"/>
      <geometry>
        <mesh filename="package://assets/ujoint.stl"/>
      </geometry>
      <material name="ujoint_material">
        <color rgba="1 0 0 1"/>
      </material>
    </visual>
    <collision>
      <origin xyz="-1.33227e-15 2.56739e-16 0.02" rpy="3.14159 1.5708 0"/>
      <geometry>
        <mesh filename="package://assets/ujoint.stl"/>
      </geometry>
    </collision>
    <!-- Part hex_socket_head_cap_screw_m2_5x0_45_x_6__ec244025d76f8b83b2775022a2cb3232_8 -->
    <!-- Part spacer_ujoint -->
    <visual>
      <origin xyz="-1.9984e-15 -1.249e-16 0.02" rpy="2.89411e-14 -1.54943 -3.28399e-14"/>
      <geometry>
        <mesh filename="package://assets/spacer_ujoint.stl"/>
      </geometry>
      <material name="spacer_ujoint_material">
        <color rgba="0.917647 0.917647 0.917647 1"/>
      </material>
    </visual>
    <collision>
      <origin xyz="-1.9984e-15 -1.249e-16 0.02" rpy="2.89411e-14 -1.54943 -3.28399e-14"/>
      <geometry>
        <mesh filename="package://assets/spacer_ujoint.stl"/>
      </geometry>
    </collision>
    <!-- Part hex_thin_nut_grade_a___b_m4x0_7__a8228d9ce5dcc05f24da0a2f74d882f3_4 -->
    <visual>
      <origin xyz="2.88658e-14 -0.02204 0.02" rpy="-1.5708 -1.54943 1.04043e-12"/>
      <geometry>
        <mesh filename="package://assets/hex_thin_nut_grade_a___b_m4x0_7__a8228d9ce5dcc05f24da0a2f74d882f3.stl"/>
      </geometry>
      <material name="hex_thin_nut_grade_a___b_m4x0_7__a8228d9ce5dcc05f24da0a2f74d882f3_4_material">
        <color rgba="0.603922 0.647059 0.686275 1"/>
      </material>
    </visual>
    <collision>
      <origin xyz="2.88658e-14 -0.02204 0.02" rpy="-1.5708 -1.54943 1.04043e-12"/>
      <geometry>
        <mesh filename="package://assets/hex_thin_nut_grade_a___b_m4x0_7__a8228d9ce5dcc05f24da0a2f74d882f3.stl"/>
      </geometry>
    </collision>
    <!-- Part part_3_2 -->
    <visual>
      <origin xyz="1.55431e-15 -3.98293e-15 0.0195" rpy="3.14159 1.5708 0"/>
      <geometry>
        <mesh filename="package://assets/part_3.stl"/>
      </geometry>
      <material name="part_3_2_material">
        <color rgba="1 0 0 1"/>
      </material>
    </visual>
    <collision>
      <origin xyz="1.55431e-15 -3.98293e-15 0.0195" rpy="3.14159 1.5708 0"/>
      <geometry>
        <mesh filename="package://assets/part_3.stl"/>
      </geometry>
    </collision>
    <!-- Part bearing_5_16_5_3 -->
    <visual>
      <origin xyz="-6.32827e-15 -0.01594 0.02" rpy="-1.87691e-12 -1.54943 2.13059e-12"/>
      <geometry>
        <mesh filename="package://assets/bearing_5_16_5.stl"/>
      </geometry>
      <material name="bearing_5_16_5_3_material">
        <color rgba="0.917647 0.917647 0.917647 1"/>
      </material>
    </visual>
    <collision>
      <origin xyz="-6.32827e-15 -0.01594 0.02" rpy="-1.87691e-12 -1.54943 2.13059e-12"/>
      <geometry>
        <mesh filename="package://assets/bearing_5_16_5.stl"/>
      </geometry>
    </collision>
    <!-- Part bearing_15_21_4_6 -->
    <visual>
      <origin xyz="0 0 0" rpy="1.5708 8.95172e-31 3.94681e-31"/>
      <geometry>
        <mesh filename="package://assets/bearing_15_21_4.stl"/>
      </geometry>
      <material name="bearing_15_21_4_6_material">
        <color rgba="0.647059 0.647059 0.647059 1"/>
      </material>
    </visual>
    <collision>
      <origin xyz="0 0 0" rpy="1.5708 8.95172e-31 3.94681e-31"/>
      <geometry>
        <mesh filename="package://assets/bearing_15_21_4.stl"/>
      </geometry>
    </collision>
    <!-- Part hex_socket_head_cap_screw_m2_5x0_45_x_6__ec244025d76f8b83b2775022a2cb3232_9 -->
    <!-- Part hex_socket_head_cap_screw_m2_5x0_45_x_6__ec244025d76f8b83b2775022a2cb3232_10 -->
    <!-- Part part_3_3 -->
    <visual>
      <origin xyz="2.66454e-15 -6.2797e-16 0.0205" rpy="-3.14159 -1.5708 0"/>
      <geometry>
        <mesh filename="package://assets/part_3.stl"/>
      </geometry>
      <material name="part_3_3_material">
        <color rgba="1 0 0 1"/>
      </material>
    </visual>
    <collision>
      <origin xyz="2.66454e-15 -6.2797e-16 0.0205" rpy="-3.14159 -1.5708 0"/>
      <geometry>
        <mesh filename="package://assets/part_3.stl"/>
      </geometry>
    </collision>
    <!-- Part hex_socket_head_cap_screw_m2_5x0_45_x_6__ec244025d76f8b83b2775022a2cb3232_11 -->
    <!-- Part hex_socket_head_cap_screw_m2_5x0_45_x_6__ec244025d76f8b83b2775022a2cb3232_12 -->
    <!-- Part bearing_5_16_5_4 -->
    <visual>
      <origin xyz="-7.77156e-15 0.0209456 0.02" rpy="-3.14159 0.0146585 3.14159"/>
      <geometry>
        <mesh filename="package://assets/bearing_5_16_5.stl"/>
      </geometry>
      <material name="bearing_5_16_5_4_material">
        <color rgba="0.917647 0.917647 0.917647 1"/>
      </material>
    </visual>
    <collision>
      <origin xyz="-7.77156e-15 0.0209456 0.02" rpy="-3.14159 0.0146585 3.14159"/>
      <geometry>
        <mesh filename="package://assets/bearing_5_16_5.stl"/>
      </geometry>
    </collision>
    <!-- Part spacer_ujoint_2 -->
    <visual>
      <origin xyz="-7.21645e-15 5.64895e-06 0.02" rpy="3.14159 1.55614 -3.23458e-12"/>
      <geometry>
        <mesh filename="package://assets/spacer_ujoint.stl"/>
      </geometry>
      <material name="spacer_ujoint_2_material">
        <color rgba="0.917647 0.917647 0.917647 1"/>
      </material>
    </visual>
    <collision>
      <origin xyz="-7.21645e-15 5.64895e-06 0.02" rpy="3.14159 1.55614 -3.23458e-12"/>
      <geometry>
        <mesh filename="package://assets/spacer_ujoint.stl"/>
      </geometry>
    </collision>
    <!-- Part bearing_15_21_4_7 -->
    <visual>
      <origin xyz="-1.11022e-15 1.89432e-15 0.04" rpy="-1.5708 1.67227e-15 3.14159"/>
      <geometry>
        <mesh filename="package://assets/bearing_15_21_4.stl"/>
      </geometry>
      <material name="bearing_15_21_4_7_material">
        <color rgba="0.647059 0.647059 0.647059 1"/>
      </material>
    </visual>
    <collision>
      <origin xyz="-1.11022e-15 1.89432e-15 0.04" rpy="-1.5708 1.67227e-15 3.14159"/>
      <geometry>
        <mesh filename="package://assets/bearing_15_21_4.stl"/>
      </geometry>
    </collision>
  </link>
  <!-- Link foot_subassembly -->
  <link name="foot_subassembly">
    <inertial>
      <origin xyz="8.52312e-09 -0.0138418 -0.052232" rpy="0 0 0"/>
      <mass value="0.122498"/>
      <inertia ixx="0.000163413" ixy="-1.15065e-10" ixz="-2.96383e-11" iyy="0.000162266" iyz="1.11374e-05" izz="7.07692e-05"/>
    </inertial>
    <!-- Part hex_socket_head_cap_screw_m2_5x0_45_x_6__ec244025d76f8b83b2775022a2cb3232_13 -->
    <!-- Part 27628_01_050_catpart_3 -->
    <visual>
      <origin xyz="0.021 3.53792e-08 -0.0660002" rpy="3.14159 -8.95172e-31 1.5708"/>
      <geometry>
        <mesh filename="package://assets/27628_01_050_catpart.stl"/>
      </geometry>
      <material name="27628_01_050_catpart_3_material">
        <color rgba="0.690196 0.690196 0.690196 1"/>
      </material>
    </visual>
    <collision>
      <origin xyz="0.021 3.53792e-08 -0.0660002" rpy="3.14159 -8.95172e-31 1.5708"/>
      <geometry>
        <mesh filename="package://assets/27628_01_050_catpart.stl"/>
      </geometry>
    </collision>
    <!-- Part hex_socket_head_cap_screw_m2_5x0_45_x_6__ec244025d76f8b83b2775022a2cb3232_14 -->
    <!-- Part 07534_05x20_catpart_3 -->
    <visual>
      <origin xyz="0.036 0 -0.066" rpy="3.14159 8.6898e-31 -3.14159"/>
      <geometry>
        <mesh filename="package://assets/07534_05x20_catpart.stl"/>
      </geometry>
      <material name="07534_05x20_catpart_3_material">
        <color rgba="0.690196 0.690196 0.690196 1"/>
      </material>
    </visual>
    <collision>
      <origin xyz="0.036 0 -0.066" rpy="3.14159 8.6898e-31 -3.14159"/>
      <geometry>
        <mesh filename="package://assets/07534_05x20_catpart.stl"/>
      </geometry>
    </collision>
    <!-- Part 27628_01_050_catpart_4 -->
    <visual>
      <origin xyz="-0.021 -1.89504e-08 -0.066" rpy="-3.14159 -1.99483e-17 1.5708"/>
      <geometry>
        <mesh filename="package://assets/27628_01_050_catpart.stl"/>
      </geometry>
      <material name="27628_01_050_catpart_4_material">
        <color rgba="0.690196 0.690196 0.690196 1"/>
      </material>
    </visual>
    <collision>
      <origin xyz="-0.021 -1.89504e-08 -0.066" rpy="-3.14159 -1.99483e-17 1.5708"/>
      <geometry>
        <mesh filename="package://assets/27628_01_050_catpart.stl"/>
      </geometry>
    </collision>
    <!-- Part 07534_05x20_catpart_4 -->
    <visual>
      <origin xyz="-0.036 1.11022e-16 -0.066" rpy="-9.86076e-32 -5.00697e-43 -4.58843e-15"/>
      <geometry>
        <mesh filename="package://assets/07534_05x20_catpart.stl"/>
      </geometry>
      <material name="07534_05x20_catpart_4_material">
        <color rgba="0.690196 0.690196 0.690196 1"/>
      </material>
    </visual>
    <collision>
      <origin xyz="-0.036 1.11022e-16 -0.066" rpy="-9.86076e-32 -5.00697e-43 -4.58843e-15"/>
      <geometry>
        <mesh filename="package://assets/07534_05x20_catpart.stl"/>
      </geometry>
    </collision>
    <!-- Part hat_small -->
    <visual>
      <origin xyz="6.52256e-16 -0.035 -0.0385" rpy="-1.5708 -1.5708 0"/>
      <geometry>
        <mesh filename="package://assets/hat_small.stl"/>
      </geometry>
      <material name="hat_small_material">
        <color rgba="1 0 0 1"/>
      </material>
    </visual>
    <collision>
      <origin xyz="6.52256e-16 -0.035 -0.0385" rpy="-1.5708 -1.5708 0"/>
      <geometry>
        <mesh filename="package://assets/hat_small.stl"/>
      </geometry>
    </collision>
    <!-- Part hex_socket_head_cap_screw_m2_5x0_45_x_6__ec244025d76f8b83b2775022a2cb3232_15 -->
    <!-- Part foot -->
    <visual>
      <origin xyz="1.11022e-16 -0.035 -0.0385" rpy="-1.5708 -1.5708 0"/>
      <geometry>
        <mesh filename="package://assets/foot.stl"/>
      </geometry>
      <material name="foot_material">
        <color rgba="0.301961 0.301961 0.301961 1"/>
      </material>
    </visual>
    <collision>
      <origin xyz="1.11022e-16 -0.035 -0.0385" rpy="-1.5708 -1.5708 0"/>
      <geometry>
        <mesh filename="package://assets/foot.stl"/>
      </geometry>
    </collision>
  </link>
  <!-- Frame foot_right (dummy link + fixed joint) -->
  <link name="foot_right">
    <origin xyz="0 0 0" rpy="0 -0 0"/>
    <inertial>
      <origin xyz="0 0 0" rpy="0 0 0"/>
      <mass value="1e-9"/>
      <inertia ixx="0" ixy="0" ixz="0" iyy="0" iyz="0" izz="0"/>
    </inertial>
  </link>
  <joint name="foot_right_frame" type="fixed">
    <origin xyz="-6.35351e-08 -0.035 -0.0480606" rpy="-1.5708 1.5708 0"/>
    <parent link="foot_subassembly"/>
    <child link="foot_right"/>
    <axis xyz="0 0 0"/>
  </joint>
  <!-- Joint from ankle_subassembly to foot_subassembly -->
  <joint name="anklex_right" type="revolute">
    <origin xyz="-6.32827e-15 -0.01594 0.02" rpy="1.5708 1.5708 0"/>
    <parent link="ankle_subassembly"/>
    <child link="foot_subassembly"/>
    <axis xyz="0 0 1"/>
    <limit effort="10" velocity="10" lower="-3.141592653589793" upper="3.141592653589793"/>
  </joint>
  <!-- Joint from shin_subassembly to ankle_subassembly -->
  <joint name="ankley_right" type="revolute">
    <origin xyz="-0.222223 -0.134971 0.02" rpy="-3.14159 -6.92588e-15 1.16142"/>
    <parent link="shin_subassembly"/>
    <child link="ankle_subassembly"/>
    <axis xyz="0 0 1"/>
    <limit effort="10" velocity="10" lower="-3.141592653589793" upper="3.141592653589793"/>
  </joint>
  <!-- Joint from tigh_subassembly to shin_subassembly -->
  <joint name="knee_right" type="revolute">
    <origin xyz="0.17 0.294449 -0.0305" rpy="3.14159 -1.79424e-13 -0.547539"/>
    <parent link="tigh_subassembly"/>
    <child link="shin_subassembly"/>
    <axis xyz="0 0 1"/>
    <limit effort="10" velocity="10" lower="-3.141592653589793" upper="3.141592653589793"/>
  </joint>
  <!-- Joint from hipy_subassembly to tigh_subassembly -->
  <joint name="hipy_right" type="revolute">
    <origin xyz="0.012638 -0.0276823 -0.112055" rpy="-1.64549 0.446566 -2.74613"/>
    <parent link="hipy_subassembly"/>
    <child link="tigh_subassembly"/>
    <axis xyz="0 0 1"/>
    <limit effort="10" velocity="10" lower="-3.141592653589793" upper="3.141592653589793"/>
  </joint>
  <!-- Joint from hipx_subassembly to hipy_subassembly -->
  <joint name="hipx_right" type="revolute">
    <origin xyz="-0.01897 -0.0289 -0.09689" rpy="-0.0593605 0.3145 -2.3413"/>
    <parent link="hipx_subassembly"/>
    <child link="hipy_subassembly"/>
    <axis xyz="0 0 1"/>
    <limit effort="10" velocity="10" lower="-3.141592653589793" upper="3.141592653589793"/>
  </joint>
  <!-- Joint from torso_subassembly to hipx_subassembly -->
  <joint name="hipz_right" type="revolute">
    <origin xyz="-0.000819037 -0.133159 0.04164" rpy="0.0475276 0.133035 -1.20169"/>
    <parent link="torso_subassembly"/>
    <child link="hipx_subassembly"/>
    <axis xyz="0 0 1"/>
    <limit effort="10" velocity="10" lower="-3.141592653589793" upper="3.141592653589793"/>
  </joint>
  <!-- Link hipx_subassemby_sym -->
  <link name="hipx_subassemby_sym">
    <inertial>
      <origin xyz="-0.0179432 0.0274245 -0.0837272" rpy="0 0 0"/>
      <mass value="0.794016"/>
      <inertia ixx="0.00093784" ixy="4.40289e-05" ixz="-0.000110464" iyy="0.000903443" iyz="0.000168604" izz="0.00100402"/>
    </inertial>
    <!-- Part rs02_2 -->
    <!-- Part hex_socket_head_cap_screw_m4x0_70_x_40__14321d45d56569246e7feb4574a6bae6_15 -->
    <!-- Part robstride02_2 -->
    <visual>
      <origin xyz="-0.575896 0.057308 -0.20175" rpy="-1.84488 -0.167023 0.0467087"/>
      <geometry>
        <mesh filename="package://assets/robstride02.stl"/>
      </geometry>
      <material name="robstride02_2_material">
        <color rgba="0.301961 0.301961 0.301961 1"/>
      </material>
    </visual>
    <collision>
      <origin xyz="-0.575896 0.057308 -0.20175" rpy="-1.84488 -0.167023 0.0467087"/>
      <geometry>
        <mesh filename="package://assets/robstride02.stl"/>
      </geometry>
    </collision>
    <!-- Part hex_socket_head_cap_screw_m3x0_50_x_8__d566997e1880d7fd3377c5b0ee12206c_28 -->
    <!-- Part hex_socket_head_cap_screw_m3x0_50_x_8__d566997e1880d7fd3377c5b0ee12206c_29 -->
    <!-- Part hex_socket_head_cap_screw_m3x0_50_x_8__d566997e1880d7fd3377c5b0ee12206c_30 -->
    <!-- Part hex_socket_head_cap_screw_m3x0_50_x_8__d566997e1880d7fd3377c5b0ee12206c_31 -->
    <!-- Part hipz22_sym -->
    <visual>
      <origin xyz="2.77556e-17 6.93889e-18 0.1" rpy="-1.07752e-17 3.20857e-17 -5.39467e-17"/>
      <geometry>
        <mesh filename="package://assets/hipz22_sym.stl"/>
      </geometry>
      <material name="hipz22_sym_material">
        <color rgba="1 0 0 1"/>
      </material>
    </visual>
    <collision>
      <origin xyz="2.77556e-17 6.93889e-18 0.1" rpy="-1.07752e-17 3.20857e-17 -5.39467e-17"/>
      <geometry>
        <mesh filename="package://assets/hipz22_sym.stl"/>
      </geometry>
    </collision>
    <!-- Part hex_socket_head_cap_screw_m4x0_70_x_40__14321d45d56569246e7feb4574a6bae6_16 -->
    <!-- Part hipz12_sym -->
    <visual>
      <origin xyz="1.38778e-17 -2.08167e-17 0.1" rpy="-1.77141e-17 5.98413e-17 -4.10432e-16"/>
      <geometry>
        <mesh filename="package://assets/hipz12_sym.stl"/>
      </geometry>
      <material name="hipz12_sym_material">
        <color rgba="1 0 0 1"/>
      </material>
    </visual>
    <collision>
      <origin xyz="1.38778e-17 -2.08167e-17 0.1" rpy="-1.77141e-17 5.98413e-17 -4.10432e-16"/>
      <geometry>
        <mesh filename="package://assets/hipz12_sym.stl"/>
      </geometry>
    </collision>
    <!-- Part xt_30_2x2_f_5 -->
    <visual>
      <origin xyz="-0.0280156 0.0769561 -0.0718124" rpy="-0.490825 -1.25093 2.15149"/>
      <geometry>
        <mesh filename="package://assets/xt_30_2x2_f.stl"/>
      </geometry>
      <material name="xt_30_2x2_f_5_material">
        <color rgba="0.917647 0.917647 0.917647 1"/>
      </material>
    </visual>
    <collision>
      <origin xyz="-0.0280156 0.0769561 -0.0718124" rpy="-0.490825 -1.25093 2.15149"/>
      <geometry>
        <mesh filename="package://assets/xt_30_2x2_f.stl"/>
      </geometry>
    </collision>
    <!-- Part hex_socket_head_cap_screw_m3x0_50_x_8__d566997e1880d7fd3377c5b0ee12206c_32 -->
    <!-- Part hex_socket_head_cap_screw_m3x0_50_x_8__d566997e1880d7fd3377c5b0ee12206c_33 -->
    <!-- Part hex_socket_head_cap_screw_m3x0_50_x_8__d566997e1880d7fd3377c5b0ee12206c_34 -->
    <!-- Part hex_socket_head_cap_screw_m4x0_70_x_40__14321d45d56569246e7feb4574a6bae6_17 -->
    <!-- Part hex_socket_head_cap_screw_m3x0_50_x_8__d566997e1880d7fd3377c5b0ee12206c_35 -->
    <!-- Part hex_socket_head_cap_screw_m4x0_70_x_40__14321d45d56569246e7feb4574a6bae6_18 -->
    <!-- Part hex_socket_head_cap_screw_m4x0_70_x_40__14321d45d56569246e7feb4574a6bae6_19 -->
    <!-- Part hex_socket_head_cap_screw_m4x0_70_x_40__14321d45d56569246e7feb4574a6bae6_20 -->
    <!-- Part hex_socket_head_cap_screw_m3x0_50_x_8__d566997e1880d7fd3377c5b0ee12206c_36 -->
    <!-- Part hex_socket_head_cap_screw_m4x0_70_x_40__14321d45d56569246e7feb4574a6bae6_21 -->
    <!-- Part hex_socket_head_cap_screw_m3x0_50_x_8__d566997e1880d7fd3377c5b0ee12206c_37 -->
    <!-- Part hex_socket_head_cap_screw_m3x0_50_x_8__d566997e1880d7fd3377c5b0ee12206c_38 -->
    <!-- Part hex_socket_head_cap_screw_m4x0_70_x_40__14321d45d56569246e7feb4574a6bae6_22 -->
    <!-- Part bearing_35_72_17_4 -->
    <visual>
      <origin xyz="-0.01759 0.0267968 -0.104484" rpy="1.29671 -0.167023 0.0467087"/>
      <geometry>
        <mesh filename="package://assets/bearing_35_72_17.stl"/>
      </geometry>
      <material name="bearing_35_72_17_4_material">
        <color rgba="0.768627 0.886275 0.952941 1"/>
      </material>
    </visual>
    <collision>
      <origin xyz="-0.01759 0.0267968 -0.104484" rpy="1.29671 -0.167023 0.0467087"/>
      <geometry>
        <mesh filename="package://assets/bearing_35_72_17.stl"/>
      </geometry>
    </collision>
    <!-- Part hex_socket_head_cap_screw_m3x0_50_x_8__d566997e1880d7fd3377c5b0ee12206c_39 -->
    <!-- Part hex_socket_head_cap_screw_m4x0_70_x_40__14321d45d56569246e7feb4574a6bae6_23 -->
    <!-- Part hex_socket_head_cap_screw_m3x0_50_x_8__d566997e1880d7fd3377c5b0ee12206c_40 -->
    <!-- Part hex_socket_head_cap_screw_m3x0_50_x_8__d566997e1880d7fd3377c5b0ee12206c_41 -->
    <!-- Part hex_socket_head_cap_screw_m4x0_70_x_40__14321d45d56569246e7feb4574a6bae6_24 -->
    <!-- Part hex_socket_head_cap_screw_m3x0_50_x_8__d566997e1880d7fd3377c5b0ee12206c_42 -->
  </link>
  <!-- Link hipy_subassembly_sym -->
  <link name="hipy_subassembly_sym">
    <inertial>
      <origin xyz="0.0047654 0.00266393 -0.0607296" rpy="0 0 0"/>
      <mass value="0.241619"/>
      <inertia ixx="0.000504046" ixy="-2.43365e-05" ixz="7.8493e-06" iyy="0.000455768" iyz="3.61482e-05" izz="0.000428972"/>
    </inertial>
    <!-- Part hex_socket_head_cap_screw_m4x0_70_x_12__c825518ee8edf1afced0eee1b019b750_11 -->
    <!-- Part hex_socket_head_cap_screw_m4x0_70_x_12__c825518ee8edf1afced0eee1b019b750_12 -->
    <!-- Part hex_socket_head_cap_screw_m4x0_70_x_12__c825518ee8edf1afced0eee1b019b750_13 -->
    <!-- Part hex_socket_head_cap_screw_m4x0_70_x_12__c825518ee8edf1afced0eee1b019b750_14 -->
    <!-- Part hex_socket_head_cap_screw_m4x0_70_x_20__832e47d784177ea3f1dabbaab534416e_23 -->
    <!-- Part hex_socket_head_cap_screw_m4x0_70_x_20__832e47d784177ea3f1dabbaab534416e_24 -->
    <!-- Part hipxy_sym -->
    <visual>
      <origin xyz="7.80626e-18 0 0" rpy="-3.14159 -1.79293e-17 -4.70843e-17"/>
      <geometry>
        <mesh filename="package://assets/hipxy_sym.stl"/>
      </geometry>
      <material name="hipxy_sym_material">
        <color rgba="1 0 0 1"/>
      </material>
    </visual>
    <collision>
      <origin xyz="7.80626e-18 0 0" rpy="-3.14159 -1.79293e-17 -4.70843e-17"/>
      <geometry>
        <mesh filename="package://assets/hipxy_sym.stl"/>
      </geometry>
    </collision>
    <!-- Part hex_socket_head_cap_screw_m4x0_70_x_12__c825518ee8edf1afced0eee1b019b750_15 -->
    <!-- Part hex_socket_head_cap_screw_m4x0_70_x_20__832e47d784177ea3f1dabbaab534416e_25 -->
    <!-- Part hex_socket_head_cap_screw_m4x0_70_x_12__c825518ee8edf1afced0eee1b019b750_16 -->
    <!-- Part hex_socket_head_cap_screw_m4x0_70_x_20__832e47d784177ea3f1dabbaab534416e_26 -->
    <!-- Part hex_socket_head_cap_screw_m4x0_70_x_20__832e47d784177ea3f1dabbaab534416e_27 -->
    <!-- Part hex_socket_head_cap_screw_m4x0_70_x_20__832e47d784177ea3f1dabbaab534416e_28 -->
  </link>
  <!-- Link tigh_subassembly_sym -->
  <link name="tigh_subassembly_sym">
    <inertial>
      <origin xyz="-0.0431321 -0.0830741 -0.0353867" rpy="0 0 0"/>
      <mass value="2.5804"/>
      <inertia ixx="0.0180602" ixy="-0.00802639" ixz="-0.00087206" iyy="0.00826187" iyz="-0.00158484" izz="0.0238429"/>
    </inertial>
    <!-- Part knee_rod22_sym -->
    <visual>
      <origin xyz="-0.058 -0.280519 0.0295" rpy="-1.5708 -2.50841e-15 4.74059e-15"/>
      <geometry>
        <mesh filename="package://assets/knee_rod22_sym.stl"/>
      </geometry>
      <material name="knee_rod22_sym_material">
        <color rgba="0.917647 0.917647 0.917647 1"/>
      </material>
    </visual>
    <collision>
      <origin xyz="-0.058 -0.280519 0.0295" rpy="-1.5708 -2.50841e-15 4.74059e-15"/>
      <geometry>
        <mesh filename="package://assets/knee_rod22_sym.stl"/>
      </geometry>
    </collision>
    <!-- Part hex_socket_head_cap_screw_m4x0_70_x_16__8d628c0d7a90368385b1c4c7479647eb_7 -->
    <!-- Part hex_socket_head_cap_screw_m2_5x0_45_x_6__ec244025d76f8b83b2775022a2cb3232_16 -->
    <!-- Part hex_socket_head_cap_screw_m4x0_70_x_8__a416dc2a8d778a4ef6150c0739aa89d1_15 -->
    <!-- Part hex_socket_head_cap_screw_m4x0_70_x_8__a416dc2a8d778a4ef6150c0739aa89d1_16 -->
    <!-- Part hex_socket_head_cap_screw_m4x0_70_x_8__a416dc2a8d778a4ef6150c0739aa89d1_17 -->
    <!-- Part hex_socket_head_cap_screw_m2_5x0_45_x_6__ec244025d76f8b83b2775022a2cb3232_17 -->
    <!-- Part hex_socket_head_cap_screw_m4x0_70_x_16__8d628c0d7a90368385b1c4c7479647eb_8 -->
    <!-- Part hex_socket_head_cap_screw_m4x0_70_x_40__14321d45d56569246e7feb4574a6bae6_25 -->
    <!-- Part hex_socket_head_cap_screw_m4x0_70_x_8__a416dc2a8d778a4ef6150c0739aa89d1_18 -->
    <!-- Part hex_socket_head_cap_screw_m4x0_70_x_8__a416dc2a8d778a4ef6150c0739aa89d1_19 -->
    <!-- Part hex_socket_head_cap_screw_m4x0_70_x_8__a416dc2a8d778a4ef6150c0739aa89d1_20 -->
    <!-- Part hex_socket_head_cap_screw_m4x0_70_x_16__8d628c0d7a90368385b1c4c7479647eb_9 -->
    <!-- Part bearing_15_21_4_8 -->
    <visual>
      <origin xyz="-0.221927 -0.268257 -0.0185" rpy="-1.5708 -3.49373e-14 1.5708"/>
      <geometry>
        <mesh filename="package://assets/bearing_15_21_4.stl"/>
      </geometry>
      <material name="bearing_15_21_4_8_material">
        <color rgba="0.647059 0.647059 0.647059 1"/>
      </material>
    </visual>
    <collision>
      <origin xyz="-0.221927 -0.268257 -0.0185" rpy="-1.5708 -3.49373e-14 1.5708"/>
      <geometry>
        <mesh filename="package://assets/bearing_15_21_4.stl"/>
      </geometry>
    </collision>
    <!-- Part part_3_4 -->
    <visual>
      <origin xyz="-2.9976e-15 5.44009e-15 -0.0938" rpy="0.523599 1.5708 0"/>
      <geometry>
        <mesh filename="package://assets/part_3.stl"/>
      </geometry>
      <material name="part_3_4_material">
        <color rgba="1 0 0 1"/>
      </material>
    </visual>
    <collision>
      <origin xyz="-2.9976e-15 5.44009e-15 -0.0938" rpy="0.523599 1.5708 0"/>
      <geometry>
        <mesh filename="package://assets/part_3.stl"/>
      </geometry>
    </collision>
    <!-- Part bearing_15_21_4_9 -->
    <visual>
      <origin xyz="-0.102915 -0.0784891 -0.0245" rpy="-1.5708 -2.50841e-15 4.75415e-15"/>
      <geometry>
        <mesh filename="package://assets/bearing_15_21_4.stl"/>
      </geometry>
      <material name="bearing_15_21_4_9_material">
        <color rgba="0.647059 0.647059 0.647059 1"/>
      </material>
    </visual>
    <collision>
      <origin xyz="-0.102915 -0.0784891 -0.0245" rpy="-1.5708 -2.50841e-15 4.75415e-15"/>
      <geometry>
        <mesh filename="package://assets/bearing_15_21_4.stl"/>
      </geometry>
    </collision>
    <!-- Part hex_socket_head_cap_screw_m4x0_70_x_40__14321d45d56569246e7feb4574a6bae6_26 -->
    <!-- Part hex_socket_head_cap_screw_m4x0_70_x_8__a416dc2a8d778a4ef6150c0739aa89d1_21 -->
    <!-- Part bearing_15_21_4_10 -->
    <visual>
      <origin xyz="-3.66374e-15 3.81639e-15 -0.0675" rpy="-1.5708 -8.21744e-15 2.61799"/>
      <geometry>
        <mesh filename="package://assets/bearing_15_21_4.stl"/>
      </geometry>
      <material name="bearing_15_21_4_10_material">
        <color rgba="0.647059 0.647059 0.647059 1"/>
      </material>
    </visual>
    <collision>
      <origin xyz="-3.66374e-15 3.81639e-15 -0.0675" rpy="-1.5708 -8.21744e-15 2.61799"/>
      <geometry>
        <mesh filename="package://assets/bearing_15_21_4.stl"/>
      </geometry>
    </collision>
    <!-- Part bearing_15_21_4_11 -->
    <visual>
      <origin xyz="-0.102915 -0.0784891 -0.0365" rpy="1.5708 -2.50841e-15 4.74059e-15"/>
      <geometry>
        <mesh filename="package://assets/bearing_15_21_4.stl"/>
      </geometry>
      <material name="bearing_15_21_4_11_material">
        <color rgba="0.647059 0.647059 0.647059 1"/>
      </material>
    </visual>
    <collision>
      <origin xyz="-0.102915 -0.0784891 -0.0365" rpy="1.5708 -2.50841e-15 4.74059e-15"/>
      <geometry>
        <mesh filename="package://assets/bearing_15_21_4.stl"/>
      </geometry>
    </collision>
    <!-- Part bearing_15_21_4_12 -->
    <visual>
      <origin xyz="-0.221927 -0.268257 -0.0465" rpy="-1.5708 -3.46841e-14 1.5708"/>
      <geometry>
        <mesh filename="package://assets/bearing_15_21_4.stl"/>
      </geometry>
      <material name="bearing_15_21_4_12_material">
        <color rgba="0.647059 0.647059 0.647059 1"/>
      </material>
    </visual>
    <collision>
      <origin xyz="-0.221927 -0.268257 -0.0465" rpy="-1.5708 -3.46841e-14 1.5708"/>
      <geometry>
        <mesh filename="package://assets/bearing_15_21_4.stl"/>
      </geometry>
    </collision>
    <!-- Part hex_socket_head_cap_screw_m2_5x0_45_x_6__ec244025d76f8b83b2775022a2cb3232_18 -->
    <!-- Part hex_socket_head_cap_screw_m4x0_70_x_16__8d628c0d7a90368385b1c4c7479647eb_10 -->
    <!-- Part hex_socket_head_cap_screw_m4x0_70_x_8__a416dc2a8d778a4ef6150c0739aa89d1_22 -->
    <!-- Part hex_socket_head_cap_screw_m4x0_70_x_40__14321d45d56569246e7feb4574a6bae6_27 -->
    <!-- Part femur_12_sym -->
    <visual>
      <origin xyz="-0.17 -0.294449 0.0295" rpy="-1.5708 8.30678e-15 -0.523599"/>
      <geometry>
        <mesh filename="package://assets/femur_12_sym.stl"/>
      </geometry>
      <material name="femur_12_sym_material">
        <color rgba="1 0 0 1"/>
      </material>
    </visual>
    <collision>
      <origin xyz="-0.17 -0.294449 0.0295" rpy="-1.5708 8.30678e-15 -0.523599"/>
      <geometry>
        <mesh filename="package://assets/femur_12_sym.stl"/>
      </geometry>
    </collision>
    <!-- Part bearing_5_16_5_5 -->
    <visual>
      <origin xyz="-0.17 -0.294449 -0.045" rpy="1.5708 -6.70996e-15 2.61799"/>
      <geometry>
        <mesh filename="package://assets/bearing_5_16_5.stl"/>
      </geometry>
      <material name="bearing_5_16_5_5_material">
        <color rgba="0.917647 0.917647 0.917647 1"/>
      </material>
    </visual>
    <collision>
      <origin xyz="-0.17 -0.294449 -0.045" rpy="1.5708 -6.70996e-15 2.61799"/>
      <geometry>
        <mesh filename="package://assets/bearing_5_16_5.stl"/>
      </geometry>
    </collision>
    <!-- Part hex_socket_head_cap_screw_m3x0_50_x_10__9c80fcbba574884e63b580474e1ee150_28 -->
    <!-- Part hex_socket_head_cap_screw_m4x0_70_x_40__14321d45d56569246e7feb4574a6bae6_28 -->
    <!-- Part hex_socket_head_cap_screw_m4x0_70_x_16__8d628c0d7a90368385b1c4c7479647eb_11 -->
    <!-- Part hex_socket_head_cap_screw_m2_5x0_45_x_6__ec244025d76f8b83b2775022a2cb3232_19 -->
    <!-- Part hex_socket_head_cap_screw_m4x0_70_x_8__a416dc2a8d778a4ef6150c0739aa89d1_23 -->
    <!-- Part hex_socket_head_cap_screw_m2_5x0_45_x_6__ec244025d76f8b83b2775022a2cb3232_20 -->
    <!-- Part hex_socket_head_cap_screw_m4x0_70_x_16__8d628c0d7a90368385b1c4c7479647eb_12 -->
    <!-- Part knee_actuation_2 -->
    <visual>
      <origin xyz="-0.058 0.123541 -0.0305" rpy="1.5708 -2.50841e-15 4.68127e-15"/>
      <geometry>
        <mesh filename="package://assets/knee_actuation.stl"/>
      </geometry>
      <material name="knee_actuation_2_material">
        <color rgba="0.917647 0.917647 0.917647 1"/>
      </material>
    </visual>
    <collision>
      <origin xyz="-0.058 0.123541 -0.0305" rpy="1.5708 -2.50841e-15 4.68127e-15"/>
      <geometry>
        <mesh filename="package://assets/knee_actuation.stl"/>
      </geometry>
    </collision>
    <!-- Part femur_22_sym -->
    <visual>
      <origin xyz="-0.17 -0.294449 0.0295" rpy="-1.5708 8.29897e-15 -0.523599"/>
      <geometry>
        <mesh filename="package://assets/femur_22_sym.stl"/>
      </geometry>
      <material name="femur_22_sym_material">
        <color rgba="1 0 0 1"/>
      </material>
    </visual>
    <collision>
      <origin xyz="-0.17 -0.294449 0.0295" rpy="-1.5708 8.29897e-15 -0.523599"/>
      <geometry>
        <mesh filename="package://assets/femur_22_sym.stl"/>
      </geometry>
    </collision>
    <!-- Part hat_femur_2 -->
    <visual>
      <origin xyz="-0.17 -0.294449 -0.0305" rpy="1.5708 -6.70996e-15 2.61799"/>
      <geometry>
        <mesh filename="package://assets/hat_femur.stl"/>
      </geometry>
      <material name="hat_femur_2_material">
        <color rgba="1 0 0 1"/>
      </material>
    </visual>
    <collision>
      <origin xyz="-0.17 -0.294449 -0.0305" rpy="1.5708 -6.70996e-15 2.61799"/>
      <geometry>
        <mesh filename="package://assets/hat_femur.stl"/>
      </geometry>
    </collision>
    <!-- Part hex_socket_head_cap_screw_m4x0_70_x_8__a416dc2a8d778a4ef6150c0739aa89d1_24 -->
    <!-- Part hex_socket_head_cap_screw_m3x0_50_x_10__9c80fcbba574884e63b580474e1ee150_29 -->
    <!-- Part bearing_5_16_5_6 -->
    <visual>
      <origin xyz="-0.17 -0.294449 -0.013" rpy="-1.5708 -4.71503e-15 2.61799"/>
      <geometry>
        <mesh filename="package://assets/bearing_5_16_5.stl"/>
      </geometry>
      <material name="bearing_5_16_5_6_material">
        <color rgba="0.917647 0.917647 0.917647 1"/>
      </material>
    </visual>
    <collision>
      <origin xyz="-0.17 -0.294449 -0.013" rpy="-1.5708 -4.71503e-15 2.61799"/>
      <geometry>
        <mesh filename="package://assets/bearing_5_16_5.stl"/>
      </geometry>
    </collision>
    <!-- Part robstrideo3_3 -->
    <visual>
      <origin xyz="0.655402 -0.194111 -0.0025" rpy="1.5708 -6.91293e-15 2.61799"/>
      <geometry>
        <mesh filename="package://assets/robstrideo3.stl"/>
      </geometry>
      <material name="robstrideo3_3_material">
        <color rgba="0.301961 0.301961 0.301961 1"/>
      </material>
    </visual>
    <collision>
      <origin xyz="0.655402 -0.194111 -0.0025" rpy="1.5708 -6.91293e-15 2.61799"/>
      <geometry>
        <mesh filename="package://assets/robstrideo3.stl"/>
      </geometry>
    </collision>
    <!-- Part hex_socket_head_cap_screw_m4x0_70_x_8__a416dc2a8d778a4ef6150c0739aa89d1_25 -->
    <!-- Part hex_socket_head_cap_screw_m4x0_70_x_8__a416dc2a8d778a4ef6150c0739aa89d1_26 -->
    <!-- Part hex_socket_head_cap_screw_m4x0_70_x_8__a416dc2a8d778a4ef6150c0739aa89d1_27 -->
    <!-- Part knee_rod12_sym -->
    <visual>
      <origin xyz="-0.058 -0.280519 0.0295" rpy="-1.5708 -2.50841e-15 4.81347e-15"/>
      <geometry>
        <mesh filename="package://assets/knee_rod12_sym.stl"/>
      </geometry>
      <material name="knee_rod12_sym_material">
        <color rgba="0.917647 0.917647 0.917647 1"/>
      </material>
    </visual>
    <collision>
      <origin xyz="-0.058 -0.280519 0.0295" rpy="-1.5708 -2.50841e-15 4.81347e-15"/>
      <geometry>
        <mesh filename="package://assets/knee_rod12_sym.stl"/>
      </geometry>
    </collision>
    <!-- Part hex_socket_head_cap_screw_m3x0_50_x_10__9c80fcbba574884e63b580474e1ee150_30 -->
    <!-- Part hex_socket_head_cap_screw_m2_5x0_45_x_6__ec244025d76f8b83b2775022a2cb3232_21 -->
    <!-- Part hex_socket_head_cap_screw_m4x0_70_x_8__a416dc2a8d778a4ef6150c0739aa89d1_28 -->
    <!-- Part robstrideo3_4 -->
    <visual>
      <origin xyz="0.597402 -0.29457 -0.045" rpy="1.5708 -6.91293e-15 2.61799"/>
      <geometry>
        <mesh filename="package://assets/robstrideo3.stl"/>
      </geometry>
      <material name="robstrideo3_4_material">
        <color rgba="0.301961 0.301961 0.301961 1"/>
      </material>
    </visual>
    <collision>
      <origin xyz="0.597402 -0.29457 -0.045" rpy="1.5708 -6.91293e-15 2.61799"/>
      <geometry>
        <mesh filename="package://assets/robstrideo3.stl"/>
      </geometry>
    </collision>
    <!-- Part 1_1_31_qt_942_1_3 -->
    <visual>
      <origin xyz="-4.27436e-15 2.1233e-15 -0.04" rpy="4.15899e-14 3.33671e-14 -2.0944"/>
      <geometry>
        <mesh filename="package://assets/1_1_31_qt_942_1.stl"/>
      </geometry>
      <material name="1_1_31_qt_942_1_3_material">
        <color rgba="0.768627 0.886275 0.952941 1"/>
      </material>
    </visual>
    <collision>
      <origin xyz="-4.27436e-15 2.1233e-15 -0.04" rpy="4.15899e-14 3.33671e-14 -2.0944"/>
      <geometry>
        <mesh filename="package://assets/1_1_31_qt_942_1.stl"/>
      </geometry>
    </collision>
    <!-- Part 1_1_06_eb903_538_1_3 -->
    <visual>
      <origin xyz="-3.80251e-15 3.27516e-15 -0.0566" rpy="4.15899e-14 3.33671e-14 -2.0944"/>
      <geometry>
        <mesh filename="package://assets/1_1_06_eb903_538_1.stl"/>
      </geometry>
      <material name="1_1_06_eb903_538_1_3_material">
        <color rgba="0.498039 0.498039 0.498039 1"/>
      </material>
    </visual>
    <collision>
      <origin xyz="-3.80251e-15 3.27516e-15 -0.0566" rpy="4.15899e-14 3.33671e-14 -2.0944"/>
      <geometry>
        <mesh filename="package://assets/1_1_06_eb903_538_1.stl"/>
      </geometry>
    </collision>
    <!-- Part 1_1_31_qt_942_1_4 -->
    <visual>
      <origin xyz="-0.058 -0.100459 -0.0825" rpy="3.45617e-13 -2.92231e-14 -0.523599"/>
      <geometry>
        <mesh filename="package://assets/1_1_31_qt_942_1.stl"/>
      </geometry>
      <material name="1_1_31_qt_942_1_4_material">
        <color rgba="0.768627 0.886275 0.952941 1"/>
      </material>
    </visual>
    <collision>
      <origin xyz="-0.058 -0.100459 -0.0825" rpy="3.45617e-13 -2.92231e-14 -0.523599"/>
      <geometry>
        <mesh filename="package://assets/1_1_31_qt_942_1.stl"/>
      </geometry>
    </collision>
    <!-- Part 1_1_06_eb903_538_1_4 -->
    <visual>
      <origin xyz="-0.058 -0.100459 -0.0991" rpy="3.45617e-13 -2.92231e-14 -0.523599"/>
      <geometry>
        <mesh filename="package://assets/1_1_06_eb903_538_1.stl"/>
      </geometry>
      <material name="1_1_06_eb903_538_1_4_material">
        <color rgba="0.498039 0.498039 0.498039 1"/>
      </material>
    </visual>
    <collision>
      <origin xyz="-0.058 -0.100459 -0.0991" rpy="3.45617e-13 -2.92231e-14 -0.523599"/>
      <geometry>
        <mesh filename="package://assets/1_1_06_eb903_538_1.stl"/>
      </geometry>
    </collision>
    <!-- Part 1_1_06_eb903_537_af0_1_3 -->
    <visual>
      <origin xyz="-3.60822e-15 1.59595e-15 -0.0375" rpy="6.62574e-14 8.30591e-15 -0.523599"/>
      <geometry>
        <mesh filename="package://assets/1_1_06_eb903_537_af0_1.stl"/>
      </geometry>
      <material name="1_1_06_eb903_537_af0_1_3_material">
        <color rgba="0.768627 0.886275 0.952941 1"/>
      </material>
    </visual>
    <collision>
      <origin xyz="-3.60822e-15 1.59595e-15 -0.0375" rpy="6.62574e-14 8.30591e-15 -0.523599"/>
      <geometry>
        <mesh filename="package://assets/1_1_06_eb903_537_af0_1.stl"/>
      </geometry>
    </collision>
    <!-- Part 1_1_02_eb901_558_1_3 -->
    <visual>
      <origin xyz="0 0 1.38778e-17" rpy="-3.14159 1.97819e-30 9.5174e-19"/>
      <geometry>
        <mesh filename="package://assets/1_1_02_eb901_558_1.stl"/>
      </geometry>
      <material name="1_1_02_eb901_558_1_3_material">
        <color rgba="0.917647 0.917647 0.917647 1"/>
      </material>
    </visual>
    <collision>
      <origin xyz="0 0 1.38778e-17" rpy="-3.14159 1.97819e-30 9.5174e-19"/>
      <geometry>
        <mesh filename="package://assets/1_1_02_eb901_558_1.stl"/>
      </geometry>
    </collision>
    <!-- Part 1_1_06_eb903_537_af0_1_4 -->
    <visual>
      <origin xyz="-0.058 -0.100459 -0.08" rpy="6.18261e-15 -6.60146e-14 1.0472"/>
      <geometry>
        <mesh filename="package://assets/1_1_06_eb903_537_af0_1.stl"/>
      </geometry>
      <material name="1_1_06_eb903_537_af0_1_4_material">
        <color rgba="0.768627 0.886275 0.952941 1"/>
      </material>
    </visual>
    <collision>
      <origin xyz="-0.058 -0.100459 -0.08" rpy="6.18261e-15 -6.60146e-14 1.0472"/>
      <geometry>
        <mesh filename="package://assets/1_1_06_eb903_537_af0_1.stl"/>
      </geometry>
    </collision>
    <!-- Part 1_1_02_eb901_558_1_4 -->
    <visual>
      <origin xyz="-0.058 -0.100459 -0.0425" rpy="3.14159 -3.5378e-14 1.5708"/>
      <geometry>
        <mesh filename="package://assets/1_1_02_eb901_558_1.stl"/>
      </geometry>
      <material name="1_1_02_eb901_558_1_4_material">
        <color rgba="0.917647 0.917647 0.917647 1"/>
      </material>
    </visual>
    <collision>
      <origin xyz="-0.058 -0.100459 -0.0425" rpy="3.14159 -3.5378e-14 1.5708"/>
      <geometry>
        <mesh filename="package://assets/1_1_02_eb901_558_1.stl"/>
      </geometry>
    </collision>
  </link>
  <!-- Link shin_subassembly_sym -->
  <link name="shin_subassembly_sym">
    <inertial>
      <origin xyz="0.00141118 -0.0907865 -1.51262e-05" rpy="0 0 0"/>
      <mass value="0.593266"/>
      <inertia ixx="0.00173329" ixy="-5.71341e-05" ixz="3.03885e-06" iyy="0.000245102" iyz="9.30277e-05" izz="0.00175808"/>
    </inertial>
    <!-- Part hex_socket_head_cap_screw_m3x0_50_x_20__7252065e4445f5ec71347b53fcae11e4_13 -->
    <!-- Part xt_30_2x2_f_6 -->
    <visual>
      <origin xyz="0.0212074 -0.0322876 0.0147" rpy="2.35619 1.5708 0"/>
      <geometry>
        <mesh filename="package://assets/xt_30_2x2_f.stl"/>
      </geometry>
      <material name="xt_30_2x2_f_6_material">
        <color rgba="0.917647 0.917647 0.917647 1"/>
      </material>
    </visual>
    <collision>
      <origin xyz="0.0212074 -0.0322876 0.0147" rpy="2.35619 1.5708 0"/>
      <geometry>
        <mesh filename="package://assets/xt_30_2x2_f.stl"/>
      </geometry>
    </collision>
    <!-- Part hex_socket_head_cap_screw_m3x0_50_x_20__7252065e4445f5ec71347b53fcae11e4_14 -->
    <!-- Part hex_socket_head_cap_screw_m3x0_50_x_20__7252065e4445f5ec71347b53fcae11e4_15 -->
    <!-- Part hex_socket_head_cap_screw_m3x0_50_x_10__9c80fcbba574884e63b580474e1ee150_31 -->
    <!-- Part 27628_01_050_catpart_5 -->
    <visual>
      <origin xyz="0.0300907 -0.0130682 -0.0195" rpy="1.5708 1.50373e-14 0.367717"/>
      <geometry>
        <mesh filename="package://assets/27628_01_050_catpart.stl"/>
      </geometry>
      <material name="27628_01_050_catpart_5_material">
        <color rgba="0.690196 0.690196 0.690196 1"/>
      </material>
    </visual>
    <collision>
      <origin xyz="0.0300907 -0.0130682 -0.0195" rpy="1.5708 1.50373e-14 0.367717"/>
      <geometry>
        <mesh filename="package://assets/27628_01_050_catpart.stl"/>
      </geometry>
    </collision>
    <!-- Part hex_socket_head_cap_screw_m3x0_50_x_20__7252065e4445f5ec71347b53fcae11e4_16 -->
    <!-- Part hex_socket_head_cap_screw_m3x0_50_x_30__cb22dc4460edbee8e1cbddf29677c00f_2 -->
    <!-- Part hex_socket_head_cap_screw_m3x0_50_x_10__9c80fcbba574884e63b580474e1ee150_32 -->
    <!-- Part hex_socket_head_cap_screw_m3x0_50_x_10__9c80fcbba574884e63b580474e1ee150_33 -->
    <!-- Part 07534_05x40_catpart_3 -->
    <visual>
      <origin xyz="5.55112e-17 0 -0.025" rpy="-1.5708 -1.5708 0"/>
      <geometry>
        <mesh filename="package://assets/07534_05x40_catpart.stl"/>
      </geometry>
      <material name="07534_05x40_catpart_3_material">
        <color rgba="0.690196 0.690196 0.690196 1"/>
      </material>
    </visual>
    <collision>
      <origin xyz="5.55112e-17 0 -0.025" rpy="-1.5708 -1.5708 0"/>
      <geometry>
        <mesh filename="package://assets/07534_05x40_catpart.stl"/>
      </geometry>
    </collision>
    <!-- Part hex_socket_head_cap_screw_m3x0_50_x_10__9c80fcbba574884e63b580474e1ee150_34 -->
    <!-- Part hex_socket_head_cap_screw_m3x0_50_x_10__9c80fcbba574884e63b580474e1ee150_35 -->
    <!-- Part hex_socket_head_cap_screw_m3x0_50_x_10__9c80fcbba574884e63b580474e1ee150_36 -->
    <!-- Part hex_socket_head_cap_screw_m3x0_50_x_10__9c80fcbba574884e63b580474e1ee150_37 -->
    <!-- Part hex_socket_head_cap_screw_m3x0_50_x_20__7252065e4445f5ec71347b53fcae11e4_17 -->
    <!-- Part 07534_05x20_catpart_5 -->
    <visual>
      <origin xyz="0.0300908 -0.0660682 0.0405" rpy="-0.925025 1.5708 0"/>
      <geometry>
        <mesh filename="package://assets/07534_05x20_catpart.stl"/>
      </geometry>
      <material name="07534_05x20_catpart_5_material">
        <color rgba="0.690196 0.690196 0.690196 1"/>
      </material>
    </visual>
    <collision>
      <origin xyz="0.0300908 -0.0660682 0.0405" rpy="-0.925025 1.5708 0"/>
      <geometry>
        <mesh filename="package://assets/07534_05x20_catpart.stl"/>
      </geometry>
    </collision>
    <!-- Part tibias12_sym -->
    <visual>
      <origin xyz="-2.77556e-16 -0.26 0.067" rpy="-1.5708 -4.44089e-16 4.7353e-16"/>
      <geometry>
        <mesh filename="package://assets/tibias12_sym.stl"/>
      </geometry>
      <material name="tibias12_sym_material">
        <color rgba="1 0 0 1"/>
      </material>
    </visual>
    <collision>
      <origin xyz="-2.77556e-16 -0.26 0.067" rpy="-1.5708 -4.44089e-16 4.7353e-16"/>
      <geometry>
        <mesh filename="package://assets/tibias12_sym.stl"/>
      </geometry>
    </collision>
    <!-- Part hex_socket_head_cap_screw_m2_5x0_45_x_8__dec2226ceabd7d7ca0bb403ec234d89b_4 -->
    <!-- Part actuation_ankle_3 -->
    <visual>
      <origin xyz="0.12299 -0.14568 0.0195" rpy="-1.5708 5.4621e-14 0.925025"/>
      <geometry>
        <mesh filename="package://assets/actuation_ankle.stl"/>
      </geometry>
      <material name="actuation_ankle_3_material">
        <color rgba="0.917647 0.917647 0.917647 1"/>
      </material>
    </visual>
    <collision>
      <origin xyz="0.12299 -0.14568 0.0195" rpy="-1.5708 5.4621e-14 0.925025"/>
      <geometry>
        <mesh filename="package://assets/actuation_ankle.stl"/>
      </geometry>
    </collision>
    <!-- Part hex_socket_head_cap_screw_m3x0_50_x_20__7252065e4445f5ec71347b53fcae11e4_18 -->
    <!-- Part hex_socket_head_cap_screw_m3x0_50_x_10__9c80fcbba574884e63b580474e1ee150_38 -->
    <!-- Part hex_socket_head_cap_screw_m3x0_50_x_10__9c80fcbba574884e63b580474e1ee150_39 -->
    <!-- Part hex_thin_nut_grade_a___b_m4x0_7__a8228d9ce5dcc05f24da0a2f74d882f3_5 -->
    <visual>
      <origin xyz="0.0300908 -0.0660682 0.0129398" rpy="3.14159 3.90511e-16 2.49582"/>
      <geometry>
        <mesh filename="package://assets/hex_thin_nut_grade_a___b_m4x0_7__a8228d9ce5dcc05f24da0a2f74d882f3.stl"/>
      </geometry>
      <material name="hex_thin_nut_grade_a___b_m4x0_7__a8228d9ce5dcc05f24da0a2f74d882f3_5_material">
        <color rgba="0.603922 0.647059 0.686275 1"/>
      </material>
    </visual>
    <collision>
      <origin xyz="0.0300908 -0.0660682 0.0129398" rpy="3.14159 3.90511e-16 2.49582"/>
      <geometry>
        <mesh filename="package://assets/hex_thin_nut_grade_a___b_m4x0_7__a8228d9ce5dcc05f24da0a2f74d882f3.stl"/>
      </geometry>
    </collision>
    <!-- Part hex_socket_head_cap_screw_m3x0_50_x_10__9c80fcbba574884e63b580474e1ee150_40 -->
    <!-- Part hex_socket_head_cap_screw_m3x0_50_x_20__7252065e4445f5ec71347b53fcae11e4_19 -->
    <!-- Part hex_socket_head_cap_screw_m3x0_50_x_20__7252065e4445f5ec71347b53fcae11e4_20 -->
    <!-- Part hex_socket_head_cap_screw_m3x0_50_x_10__9c80fcbba574884e63b580474e1ee150_41 -->
    <!-- Part rmdx43_3 -->
    <visual>
      <origin xyz="0.470217 -0.113201 -0.006" rpy="-1.5708 3.05311e-16 -3.14159"/>
      <geometry>
        <mesh filename="package://assets/rmdx43.stl"/>
      </geometry>
      <material name="rmdx43_3_material">
        <color rgba="0.301961 0.301961 0.301961 1"/>
      </material>
    </visual>
    <collision>
      <origin xyz="0.470217 -0.113201 -0.006" rpy="-1.5708 3.05311e-16 -3.14159"/>
      <geometry>
        <mesh filename="package://assets/rmdx43.stl"/>
      </geometry>
    </collision>
    <!-- Part hex_socket_head_cap_screw_m2_5x0_45_x_8__dec2226ceabd7d7ca0bb403ec234d89b_5 -->
    <!-- Part hex_socket_head_cap_screw_m4x0_70_x_12__c825518ee8edf1afced0eee1b019b750_17 -->
    <!-- Part hex_socket_head_cap_screw_m3x0_50_x_20__7252065e4445f5ec71347b53fcae11e4_21 -->
    <!-- Part hex_socket_head_cap_screw_m4x0_70_x_12__c825518ee8edf1afced0eee1b019b750_18 -->
    <!-- Part hex_socket_head_cap_screw_m3x0_50_x_10__9c80fcbba574884e63b580474e1ee150_42 -->
    <!-- Part hex_socket_head_cap_screw_m3x0_50_x_10__9c80fcbba574884e63b580474e1ee150_43 -->
    <!-- Part hex_socket_head_cap_screw_m3x0_50_x_10__9c80fcbba574884e63b580474e1ee150_44 -->
    <!-- Part hex_socket_head_cap_screw_m4x0_70_x_12__c825518ee8edf1afced0eee1b019b750_19 -->
    <!-- Part hex_socket_head_cap_screw_m3x0_50_x_20__7252065e4445f5ec71347b53fcae11e4_22 -->
    <!-- Part hex_socket_head_cap_screw_m3x0_50_x_10__9c80fcbba574884e63b580474e1ee150_45 -->
    <!-- Part hex_socket_head_cap_screw_m3x0_50_x_10__9c80fcbba574884e63b580474e1ee150_46 -->
    <!-- Part 07534_05x20_catpart_6 -->
    <visual>
      <origin xyz="0.0300908 -0.0130682 -0.0405" rpy="0.925025 -1.5708 0"/>
      <geometry>
        <mesh filename="package://assets/07534_05x20_catpart.stl"/>
      </geometry>
      <material name="07534_05x20_catpart_6_material">
        <color rgba="0.690196 0.690196 0.690196 1"/>
      </material>
    </visual>
    <collision>
      <origin xyz="0.0300908 -0.0130682 -0.0405" rpy="0.925025 -1.5708 0"/>
      <geometry>
        <mesh filename="package://assets/07534_05x20_catpart.stl"/>
      </geometry>
    </collision>
    <!-- Part rmdx43_4 -->
    <visual>
      <origin xyz="0.470217 -0.0457991 0.006" rpy="1.5708 -1.79023e-15 -3.14159"/>
      <geometry>
        <mesh filename="package://assets/rmdx43.stl"/>
      </geometry>
      <material name="rmdx43_4_material">
        <color rgba="0.301961 0.301961 0.301961 1"/>
      </material>
    </visual>
    <collision>
      <origin xyz="0.470217 -0.0457991 0.006" rpy="1.5708 -1.79023e-15 -3.14159"/>
      <geometry>
        <mesh filename="package://assets/rmdx43.stl"/>
      </geometry>
    </collision>
    <!-- Part tibias22_sym -->
    <visual>
      <origin xyz="-6.66134e-16 -0.26 0.067" rpy="-1.5708 -3.19189e-16 5.6552e-16"/>
      <geometry>
        <mesh filename="package://assets/tibias22_sym.stl"/>
      </geometry>
      <material name="tibias22_sym_material">
        <color rgba="1 0 0 1"/>
      </material>
    </visual>
    <collision>
      <origin xyz="-6.66134e-16 -0.26 0.067" rpy="-1.5708 -3.19189e-16 5.6552e-16"/>
      <geometry>
        <mesh filename="package://assets/tibias22_sym.stl"/>
      </geometry>
    </collision>
    <!-- Part hex_socket_head_cap_screw_m3x0_50_x_20__7252065e4445f5ec71347b53fcae11e4_23 -->
    <!-- Part hex_socket_head_cap_screw_m4x0_70_x_12__c825518ee8edf1afced0eee1b019b750_20 -->
    <!-- Part hex_socket_head_cap_screw_m3x0_50_x_10__9c80fcbba574884e63b580474e1ee150_47 -->
    <!-- Part xt_30_2x2_f_7 -->
    <visual>
      <origin xyz="0.0212074 -0.126712 -0.015" rpy="-0.785398 -1.5708 0"/>
      <geometry>
        <mesh filename="package://assets/xt_30_2x2_f.stl"/>
      </geometry>
      <material name="xt_30_2x2_f_7_material">
        <color rgba="0.917647 0.917647 0.917647 1"/>
      </material>
    </visual>
    <collision>
      <origin xyz="0.0212074 -0.126712 -0.015" rpy="-0.785398 -1.5708 0"/>
      <geometry>
        <mesh filename="package://assets/xt_30_2x2_f.stl"/>
      </geometry>
    </collision>
    <!-- Part hex_thin_nut_grade_a___b_m4x0_7__a8228d9ce5dcc05f24da0a2f74d882f3_6 -->
    <visual>
      <origin xyz="5.55112e-17 0 0.0247602" rpy="-3.14159 2.7027e-15 -3.14159"/>
      <geometry>
        <mesh filename="package://assets/hex_thin_nut_grade_a___b_m4x0_7__a8228d9ce5dcc05f24da0a2f74d882f3.stl"/>
      </geometry>
      <material name="hex_thin_nut_grade_a___b_m4x0_7__a8228d9ce5dcc05f24da0a2f74d882f3_6_material">
        <color rgba="0.603922 0.647059 0.686275 1"/>
      </material>
    </visual>
    <collision>
      <origin xyz="5.55112e-17 0 0.0247602" rpy="-3.14159 2.7027e-15 -3.14159"/>
      <geometry>
        <mesh filename="package://assets/hex_thin_nut_grade_a___b_m4x0_7__a8228d9ce5dcc05f24da0a2f74d882f3.stl"/>
      </geometry>
    </collision>
    <!-- Part hex_socket_head_cap_screw_m3x0_50_x_10__9c80fcbba574884e63b580474e1ee150_48 -->
    <!-- Part hex_socket_head_cap_screw_m3x0_50_x_10__9c80fcbba574884e63b580474e1ee150_49 -->
    <!-- Part actuation_ankle_4 -->
    <visual>
      <origin xyz="-0.12299 -0.0133205 -0.0195" rpy="1.5708 -1.01466e-14 0.925025"/>
      <geometry>
        <mesh filename="package://assets/actuation_ankle.stl"/>
      </geometry>
      <material name="actuation_ankle_4_material">
        <color rgba="0.917647 0.917647 0.917647 1"/>
      </material>
    </visual>
    <collision>
      <origin xyz="-0.12299 -0.0133205 -0.0195" rpy="1.5708 -1.01466e-14 0.925025"/>
      <geometry>
        <mesh filename="package://assets/actuation_ankle.stl"/>
      </geometry>
    </collision>
    <!-- Part hex_socket_head_cap_screw_m3x0_50_x_10__9c80fcbba574884e63b580474e1ee150_50 -->
    <!-- Part hex_socket_head_cap_screw_m3x0_50_x_10__9c80fcbba574884e63b580474e1ee150_51 -->
    <!-- Part hex_socket_head_cap_screw_m3x0_50_x_10__9c80fcbba574884e63b580474e1ee150_52 -->
    <!-- Part hex_socket_head_cap_screw_m3x0_50_x_10__9c80fcbba574884e63b580474e1ee150_53 -->
    <!-- Part hex_socket_head_cap_screw_m3x0_50_x_20__7252065e4445f5ec71347b53fcae11e4_24 -->
    <!-- Part hat_big_2 -->
    <visual>
      <origin xyz="-3.88578e-16 -0.26 -0.019" rpy="1.5708 1.53003e-15 -3.14159"/>
      <geometry>
        <mesh filename="package://assets/hat_big.stl"/>
      </geometry>
      <material name="hat_big_2_material">
        <color rgba="1 0 0 1"/>
      </material>
    </visual>
    <collision>
      <origin xyz="-3.88578e-16 -0.26 -0.019" rpy="1.5708 1.53003e-15 -3.14159"/>
      <geometry>
        <mesh filename="package://assets/hat_big.stl"/>
      </geometry>
    </collision>
    <!-- Part hex_socket_head_cap_screw_m2_5x0_45_x_8__dec2226ceabd7d7ca0bb403ec234d89b_6 -->
    <!-- Part 27628_01_050_catpart_6 -->
    <visual>
      <origin xyz="0.0300908 -0.066068 0.0225" rpy="1.5708 1.9701e-15 2.70161"/>
      <geometry>
        <mesh filename="package://assets/27628_01_050_catpart.stl"/>
      </geometry>
      <material name="27628_01_050_catpart_6_material">
        <color rgba="0.690196 0.690196 0.690196 1"/>
      </material>
    </visual>
    <collision>
      <origin xyz="0.0300908 -0.066068 0.0225" rpy="1.5708 1.9701e-15 2.70161"/>
      <geometry>
        <mesh filename="package://assets/27628_01_050_catpart.stl"/>
      </geometry>
    </collision>
    <!-- Part hex_socket_head_cap_screw_m3x0_50_x_10__9c80fcbba574884e63b580474e1ee150_54 -->
    <!-- Part hex_thin_nut_grade_a___b_m4x0_7__a8228d9ce5dcc05f24da0a2f74d882f3_7 -->
    <visual>
      <origin xyz="0.0300908 -0.0130682 -0.0129398" rpy="5.49766e-14 1.98333e-14 2.49582"/>
      <geometry>
        <mesh filename="package://assets/hex_thin_nut_grade_a___b_m4x0_7__a8228d9ce5dcc05f24da0a2f74d882f3.stl"/>
      </geometry>
      <material name="hex_thin_nut_grade_a___b_m4x0_7__a8228d9ce5dcc05f24da0a2f74d882f3_7_material">
        <color rgba="0.603922 0.647059 0.686275 1"/>
      </material>
    </visual>
    <collision>
      <origin xyz="0.0300908 -0.0130682 -0.0129398" rpy="5.49766e-14 1.98333e-14 2.49582"/>
      <geometry>
        <mesh filename="package://assets/hex_thin_nut_grade_a___b_m4x0_7__a8228d9ce5dcc05f24da0a2f74d882f3.stl"/>
      </geometry>
    </collision>
    <!-- Part 1_1_31_eb463_510_fl46blw10_48v_5n_m_de_2__fl46blw10_48v_5n_m_de_3 -->
    <visual>
      <origin xyz="-3.83027e-15 -0.106 0.019" rpy="1.25545e-13 1.18326e-13 2.74889"/>
      <geometry>
        <mesh filename="package://assets/1_1_31_eb463_510_fl46blw10_48v_5n_m_de_2__fl46blw10_48v_5n_m_de.stl"/>
      </geometry>
      <material name="1_1_31_eb463_510_fl46blw10_48v_5n_m_de_2__fl46blw10_48v_5n_m_de_3_material">
        <color rgba="1 1 1 1"/>
      </material>
    </visual>
    <collision>
      <origin xyz="-3.83027e-15 -0.106 0.019" rpy="1.25545e-13 1.18326e-13 2.74889"/>
      <geometry>
        <mesh filename="package://assets/1_1_31_eb463_510_fl46blw10_48v_5n_m_de_2__fl46blw10_48v_5n_m_de.stl"/>
      </geometry>
    </collision>
    <!-- Part 1_1_02_eb461_502_fl46blw10_48v_5n_m_de_2__fl46blw10_48v_5n_m_de_3 -->
    <visual>
      <origin xyz="-2.05391e-15 -0.106 0.009" rpy="1.25545e-13 1.18326e-13 2.74889"/>
      <geometry>
        <mesh filename="package://assets/1_1_02_eb461_502_fl46blw10_48v_5n_m_de_2__fl46blw10_48v_5n_m_de.stl"/>
      </geometry>
      <material name="1_1_02_eb461_502_fl46blw10_48v_5n_m_de_2__fl46blw10_48v_5n_m_de_3_material">
        <color rgba="1 1 1 1"/>
      </material>
    </visual>
    <collision>
      <origin xyz="-2.05391e-15 -0.106 0.009" rpy="1.25545e-13 1.18326e-13 2.74889"/>
      <geometry>
        <mesh filename="package://assets/1_1_02_eb461_502_fl46blw10_48v_5n_m_de_2__fl46blw10_48v_5n_m_de.stl"/>
      </geometry>
    </collision>
    <!-- Part 1_1_06_eb463_509_fl46blw10_48v_5n_m_de_2__fl46blw10_48v_5n_m_de_3 -->
    <visual>
      <origin xyz="-1.66533e-16 -0.106 -0.0225" rpy="9.08995e-16 -4.16334e-16 1.5708"/>
      <geometry>
        <mesh filename="package://assets/1_1_06_eb463_509_fl46blw10_48v_5n_m_de_2__fl46blw10_48v_5n_m_de.stl"/>
      </geometry>
      <material name="1_1_06_eb463_509_fl46blw10_48v_5n_m_de_2__fl46blw10_48v_5n_m_de_3_material">
        <color rgba="1 1 1 1"/>
      </material>
    </visual>
    <collision>
      <origin xyz="-1.66533e-16 -0.106 -0.0225" rpy="9.08995e-16 -4.16334e-16 1.5708"/>
      <geometry>
        <mesh filename="package://assets/1_1_06_eb463_509_fl46blw10_48v_5n_m_de_2__fl46blw10_48v_5n_m_de.stl"/>
      </geometry>
    </collision>
    <!-- Part 1_1_06_eb463_507_fl46blw10_48v_5n_m_de_2__fl46blw10_48v_5n_m_de_3 -->
    <visual>
      <origin xyz="-1.33227e-15 -0.106 -0.009" rpy="7.24482e-14 1.3347e-13 2.35619"/>
      <geometry>
        <mesh filename="package://assets/1_1_06_eb463_507_fl46blw10_48v_5n_m_de_2__fl46blw10_48v_5n_m_de.stl"/>
      </geometry>
      <material name="1_1_06_eb463_507_fl46blw10_48v_5n_m_de_2__fl46blw10_48v_5n_m_de_3_material">
        <color rgba="1 1 1 1"/>
      </material>
    </visual>
    <collision>
      <origin xyz="-1.33227e-15 -0.106 -0.009" rpy="7.24482e-14 1.3347e-13 2.35619"/>
      <geometry>
        <mesh filename="package://assets/1_1_06_eb463_507_fl46blw10_48v_5n_m_de_2__fl46blw10_48v_5n_m_de.stl"/>
      </geometry>
    </collision>
    <!-- Part 1_1_31_eb463_510_fl46blw10_48v_5n_m_de_2__fl46blw10_48v_5n_m_de_4 -->
    <visual>
      <origin xyz="2.22045e-16 -0.053 -0.019" rpy="-3.14159 -7.16226e-14 -2.74889"/>
      <geometry>
        <mesh filename="package://assets/1_1_31_eb463_510_fl46blw10_48v_5n_m_de_2__fl46blw10_48v_5n_m_de.stl"/>
      </geometry>
      <material name="1_1_31_eb463_510_fl46blw10_48v_5n_m_de_2__fl46blw10_48v_5n_m_de_4_material">
        <color rgba="1 1 1 1"/>
      </material>
    </visual>
    <collision>
      <origin xyz="2.22045e-16 -0.053 -0.019" rpy="-3.14159 -7.16226e-14 -2.74889"/>
      <geometry>
        <mesh filename="package://assets/1_1_31_eb463_510_fl46blw10_48v_5n_m_de_2__fl46blw10_48v_5n_m_de.stl"/>
      </geometry>
    </collision>
    <!-- Part 1_1_02_eb461_502_fl46blw10_48v_5n_m_de_2__fl46blw10_48v_5n_m_de_4 -->
    <visual>
      <origin xyz="1.33227e-15 -0.053 -0.009" rpy="-3.14159 -7.16226e-14 -2.74889"/>
      <geometry>
        <mesh filename="package://assets/1_1_02_eb461_502_fl46blw10_48v_5n_m_de_2__fl46blw10_48v_5n_m_de.stl"/>
      </geometry>
      <material name="1_1_02_eb461_502_fl46blw10_48v_5n_m_de_2__fl46blw10_48v_5n_m_de_4_material">
        <color rgba="1 1 1 1"/>
      </material>
    </visual>
    <collision>
      <origin xyz="1.33227e-15 -0.053 -0.009" rpy="-3.14159 -7.16226e-14 -2.74889"/>
      <geometry>
        <mesh filename="package://assets/1_1_02_eb461_502_fl46blw10_48v_5n_m_de_2__fl46blw10_48v_5n_m_de.stl"/>
      </geometry>
    </collision>
    <!-- Part 1_1_06_eb463_509_fl46blw10_48v_5n_m_de_2__fl46blw10_48v_5n_m_de_4 -->
    <visual>
      <origin xyz="0 -0.053 0.0225" rpy="-3.14159 -2.11289e-15 -1.5708"/>
      <geometry>
        <mesh filename="package://assets/1_1_06_eb463_509_fl46blw10_48v_5n_m_de_2__fl46blw10_48v_5n_m_de.stl"/>
      </geometry>
      <material name="1_1_06_eb463_509_fl46blw10_48v_5n_m_de_2__fl46blw10_48v_5n_m_de_4_material">
        <color rgba="1 1 1 1"/>
      </material>
    </visual>
    <collision>
      <origin xyz="0 -0.053 0.0225" rpy="-3.14159 -2.11289e-15 -1.5708"/>
      <geometry>
        <mesh filename="package://assets/1_1_06_eb463_509_fl46blw10_48v_5n_m_de_2__fl46blw10_48v_5n_m_de.stl"/>
      </geometry>
    </collision>
    <!-- Part 1_1_06_eb463_507_fl46blw10_48v_5n_m_de_2__fl46blw10_48v_5n_m_de_4 -->
    <visual>
      <origin xyz="-2.77556e-16 -0.053 0.009" rpy="-3.14159 -1.58534e-13 -2.35619"/>
      <geometry>
        <mesh filename="package://assets/1_1_06_eb463_507_fl46blw10_48v_5n_m_de_2__fl46blw10_48v_5n_m_de.stl"/>
      </geometry>
      <material name="1_1_06_eb463_507_fl46blw10_48v_5n_m_de_2__fl46blw10_48v_5n_m_de_4_material">
        <color rgba="1 1 1 1"/>
      </material>
    </visual>
    <collision>
      <origin xyz="-2.77556e-16 -0.053 0.009" rpy="-3.14159 -1.58534e-13 -2.35619"/>
      <geometry>
        <mesh filename="package://assets/1_1_06_eb463_507_fl46blw10_48v_5n_m_de_2__fl46blw10_48v_5n_m_de.stl"/>
      </geometry>
    </collision>
    <!-- Part 0001755652_1_1_30_gr_2202_asm_1_asm_1_1_30_gr_2202_asm_fl46blw10_48v_5n_m_de_2__fl46blw10_48v_5n_m_de_5 -->
    <visual>
      <origin xyz="0.00671751 -0.0992825 0.0235" rpy="3.14159 -1.32914e-13 -0.785398"/>
      <geometry>
        <mesh filename="package://assets/0001755652_1_1_30_gr_2202_asm_1_asm_1_1_30_gr_2202_asm_fl46blw10_48v_5n_m_de_2__fl46blw10_48v_5n_m_de.stl"/>
      </geometry>
      <material name="0001755652_1_1_30_gr_2202_asm_1_asm_1_1_30_gr_2202_asm_fl46blw10_48v_5n_m_de_2__fl46blw10_48v_5n_m_de_5_material">
        <color rgba="1 1 1 1"/>
      </material>
    </visual>
    <collision>
      <origin xyz="0.00671751 -0.0992825 0.0235" rpy="3.14159 -1.32914e-13 -0.785398"/>
      <geometry>
        <mesh filename="package://assets/0001755652_1_1_30_gr_2202_asm_1_asm_1_1_30_gr_2202_asm_fl46blw10_48v_5n_m_de_2__fl46blw10_48v_5n_m_de.stl"/>
      </geometry>
    </collision>
    <!-- Part 0001755652_1_1_30_gr_2202_asm_1_asm_1_1_30_gr_2202_asm_fl46blw10_48v_5n_m_de_2__fl46blw10_48v_5n_m_de_6 -->
    <visual>
      <origin xyz="0.00245878 -0.115176 0.0235" rpy="3.14159 -1.32914e-13 -0.785398"/>
      <geometry>
        <mesh filename="package://assets/0001755652_1_1_30_gr_2202_asm_1_asm_1_1_30_gr_2202_asm_fl46blw10_48v_5n_m_de_2__fl46blw10_48v_5n_m_de.stl"/>
      </geometry>
      <material name="0001755652_1_1_30_gr_2202_asm_1_asm_1_1_30_gr_2202_asm_fl46blw10_48v_5n_m_de_2__fl46blw10_48v_5n_m_de_6_material">
        <color rgba="1 1 1 1"/>
      </material>
    </visual>
    <collision>
      <origin xyz="0.00245878 -0.115176 0.0235" rpy="3.14159 -1.32914e-13 -0.785398"/>
      <geometry>
        <mesh filename="package://assets/0001755652_1_1_30_gr_2202_asm_1_asm_1_1_30_gr_2202_asm_fl46blw10_48v_5n_m_de_2__fl46blw10_48v_5n_m_de.stl"/>
      </geometry>
    </collision>
    <!-- Part 0001755652_1_1_30_gr_2202_asm_1_asm_1_1_30_gr_2202_asm_fl46blw10_48v_5n_m_de_2__fl46blw10_48v_5n_m_de_7 -->
    <visual>
      <origin xyz="0.00671751 -0.0597175 -0.0235" rpy="-2.35783e-14 5.21294e-14 0.785398"/>
      <geometry>
        <mesh filename="package://assets/0001755652_1_1_30_gr_2202_asm_1_asm_1_1_30_gr_2202_asm_fl46blw10_48v_5n_m_de_2__fl46blw10_48v_5n_m_de.stl"/>
      </geometry>
      <material name="0001755652_1_1_30_gr_2202_asm_1_asm_1_1_30_gr_2202_asm_fl46blw10_48v_5n_m_de_2__fl46blw10_48v_5n_m_de_7_material">
        <color rgba="1 1 1 1"/>
      </material>
    </visual>
    <collision>
      <origin xyz="0.00671751 -0.0597175 -0.0235" rpy="-2.35783e-14 5.21294e-14 0.785398"/>
      <geometry>
        <mesh filename="package://assets/0001755652_1_1_30_gr_2202_asm_1_asm_1_1_30_gr_2202_asm_fl46blw10_48v_5n_m_de_2__fl46blw10_48v_5n_m_de.stl"/>
      </geometry>
    </collision>
    <!-- Part 0001755652_1_1_30_gr_2202_asm_1_asm_1_1_30_gr_2202_asm_fl46blw10_48v_5n_m_de_2__fl46blw10_48v_5n_m_de_8 -->
    <visual>
      <origin xyz="0.00245878 -0.0438237 -0.0235" rpy="-2.35783e-14 5.21294e-14 0.785398"/>
      <geometry>
        <mesh filename="package://assets/0001755652_1_1_30_gr_2202_asm_1_asm_1_1_30_gr_2202_asm_fl46blw10_48v_5n_m_de_2__fl46blw10_48v_5n_m_de.stl"/>
      </geometry>
      <material name="0001755652_1_1_30_gr_2202_asm_1_asm_1_1_30_gr_2202_asm_fl46blw10_48v_5n_m_de_2__fl46blw10_48v_5n_m_de_8_material">
        <color rgba="1 1 1 1"/>
      </material>
    </visual>
    <collision>
      <origin xyz="0.00245878 -0.0438237 -0.0235" rpy="-2.35783e-14 5.21294e-14 0.785398"/>
      <geometry>
        <mesh filename="package://assets/0001755652_1_1_30_gr_2202_asm_1_asm_1_1_30_gr_2202_asm_fl46blw10_48v_5n_m_de_2__fl46blw10_48v_5n_m_de.stl"/>
      </geometry>
    </collision>
    <!-- Part 0001755652_00mini_000_asm_1_asm_1_asm_00mini__20250103_a0001_asm_1_as_asm_1_1_30_gr_2202_asm_1_asm_1_1_30_gr_2202_asm_fl46blw10_48v_5n_m_de_2__fl46blw10_48v_5n_m_de_3 -->
    <visual>
      <origin xyz="-0.0091763 -0.103541 0.0235" rpy="3.14159 -1.32914e-13 -0.785398"/>
      <geometry>
        <mesh filename="package://assets/0001755652_00mini_000_asm_1_asm_1_asm_00mini__20250103_a0001_asm_1_as_asm_1_1_30_gr_2202_asm_1_asm_1_1_30_gr_2202_asm_fl46blw10_48v_5n_m_de_2__fl46blw10_48v_5n_m_de.stl"/>
      </geometry>
      <material name="0001755652_00mini_000_asm_1_asm_1_asm_00mini__20250103_a0001_asm_1_as_asm_1_1_30_gr_2202_asm_1_asm_1_1_30_gr_2202_asm_fl46blw10_48v_5n_m_de_2__fl46blw10_48v_5n_m_de_3_material">
        <color rgba="1 1 1 1"/>
      </material>
    </visual>
    <collision>
      <origin xyz="-0.0091763 -0.103541 0.0235" rpy="3.14159 -1.32914e-13 -0.785398"/>
      <geometry>
        <mesh filename="package://assets/0001755652_00mini_000_asm_1_asm_1_asm_00mini__20250103_a0001_asm_1_as_asm_1_1_30_gr_2202_asm_1_asm_1_1_30_gr_2202_asm_fl46blw10_48v_5n_m_de_2__fl46blw10_48v_5n_m_de.stl"/>
      </geometry>
    </collision>
    <!-- Part 6706__300001_1_1_00mini_000_asm_1_asm_1_asm_00mini__20250103_a0001_asm_1_as_asm_1_1_30_gr_2202_asm_1_asm_1_1_30_gr_2202_asm_fl46blw10_48v_5n_m_de_2__fl46blw10_48v_5n_m_de_3 -->
    <visual>
      <origin xyz="-3.44169e-15 -0.106 0.02" rpy="3.14159 -1.32914e-13 -0.785398"/>
      <geometry>
        <mesh filename="package://assets/6706__300001_1_1_00mini_000_asm_1_asm_1_asm_00mini__20250103_a0001_asm_1_as_asm_1_1_30_gr_2202_asm_1_asm_1_1_30_gr_2202_asm_fl46blw10_48v_5n_m_de_2__fl46blw10_48v_5n_m_de.stl"/>
      </geometry>
      <material name="6706__300001_1_1_00mini_000_asm_1_asm_1_asm_00mini__20250103_a0001_asm_1_as_asm_1_1_30_gr_2202_asm_1_asm_1_1_30_gr_2202_asm_fl46blw10_48v_5n_m_de_2__fl46blw10_48v_5n_m_de_3_material">
        <color rgba="1 1 1 1"/>
      </material>
    </visual>
    <collision>
      <origin xyz="-3.44169e-15 -0.106 0.02" rpy="3.14159 -1.32914e-13 -0.785398"/>
      <geometry>
        <mesh filename="package://assets/6706__300001_1_1_00mini_000_asm_1_asm_1_asm_00mini__20250103_a0001_asm_1_as_asm_1_1_30_gr_2202_asm_1_asm_1_1_30_gr_2202_asm_fl46blw10_48v_5n_m_de_2__fl46blw10_48v_5n_m_de.stl"/>
      </geometry>
    </collision>
    <!-- Part 0001755650_00mini_000_asm_1_asm_1_asm_00mini__20250103_a0001_asm_1_as_asm_1_1_30_gr_2202_asm_1_asm_1_1_30_gr_2202_asm_fl46blw10_48v_5n_m_de_2__fl46blw10_48v_5n_m_de_3 -->
    <visual>
      <origin xyz="-3.38618e-15 -0.106 0.0204" rpy="3.14159 -1.32914e-13 -0.785398"/>
      <geometry>
        <mesh filename="package://assets/0001755650_00mini_000_asm_1_asm_1_asm_00mini__20250103_a0001_asm_1_as_asm_1_1_30_gr_2202_asm_1_asm_1_1_30_gr_2202_asm_fl46blw10_48v_5n_m_de_2__fl46blw10_48v_5n_m_de.stl"/>
      </geometry>
      <material name="0001755650_00mini_000_asm_1_asm_1_asm_00mini__20250103_a0001_asm_1_as_asm_1_1_30_gr_2202_asm_1_asm_1_1_30_gr_2202_asm_fl46blw10_48v_5n_m_de_2__fl46blw10_48v_5n_m_de_3_material">
        <color rgba="1 1 1 1"/>
      </material>
    </visual>
    <collision>
      <origin xyz="-3.38618e-15 -0.106 0.0204" rpy="3.14159 -1.32914e-13 -0.785398"/>
      <geometry>
        <mesh filename="package://assets/0001755650_00mini_000_asm_1_asm_1_asm_00mini__20250103_a0001_asm_1_as_asm_1_1_30_gr_2202_asm_1_asm_1_1_30_gr_2202_asm_fl46blw10_48v_5n_m_de_2__fl46blw10_48v_5n_m_de.stl"/>
      </geometry>
    </collision>
    <!-- Part 0001755652_00mini_000_asm_1_asm_1_asm_00mini__20250103_a0001_asm_1_as_asm_1_1_30_gr_2202_asm_1_asm_1_1_30_gr_2202_asm_fl46blw10_48v_5n_m_de_2__fl46blw10_48v_5n_m_de_4 -->
    <visual>
      <origin xyz="-0.0091763 -0.0554588 -0.0235" rpy="-2.35783e-14 5.21294e-14 0.785398"/>
      <geometry>
        <mesh filename="package://assets/0001755652_00mini_000_asm_1_asm_1_asm_00mini__20250103_a0001_asm_1_as_asm_1_1_30_gr_2202_asm_1_asm_1_1_30_gr_2202_asm_fl46blw10_48v_5n_m_de_2__fl46blw10_48v_5n_m_de.stl"/>
      </geometry>
      <material name="0001755652_00mini_000_asm_1_asm_1_asm_00mini__20250103_a0001_asm_1_as_asm_1_1_30_gr_2202_asm_1_asm_1_1_30_gr_2202_asm_fl46blw10_48v_5n_m_de_2__fl46blw10_48v_5n_m_de_4_material">
        <color rgba="1 1 1 1"/>
      </material>
    </visual>
    <collision>
      <origin xyz="-0.0091763 -0.0554588 -0.0235" rpy="-2.35783e-14 5.21294e-14 0.785398"/>
      <geometry>
        <mesh filename="package://assets/0001755652_00mini_000_asm_1_asm_1_asm_00mini__20250103_a0001_asm_1_as_asm_1_1_30_gr_2202_asm_1_asm_1_1_30_gr_2202_asm_fl46blw10_48v_5n_m_de_2__fl46blw10_48v_5n_m_de.stl"/>
      </geometry>
    </collision>
    <!-- Part 6706__300001_1_1_00mini_000_asm_1_asm_1_asm_00mini__20250103_a0001_asm_1_as_asm_1_1_30_gr_2202_asm_1_asm_1_1_30_gr_2202_asm_fl46blw10_48v_5n_m_de_2__fl46blw10_48v_5n_m_de_4 -->
    <visual>
      <origin xyz="1.60982e-15 -0.053 -0.02" rpy="-2.35783e-14 5.21294e-14 0.785398"/>
      <geometry>
        <mesh filename="package://assets/6706__300001_1_1_00mini_000_asm_1_asm_1_asm_00mini__20250103_a0001_asm_1_as_asm_1_1_30_gr_2202_asm_1_asm_1_1_30_gr_2202_asm_fl46blw10_48v_5n_m_de_2__fl46blw10_48v_5n_m_de.stl"/>
      </geometry>
      <material name="6706__300001_1_1_00mini_000_asm_1_asm_1_asm_00mini__20250103_a0001_asm_1_as_asm_1_1_30_gr_2202_asm_1_asm_1_1_30_gr_2202_asm_fl46blw10_48v_5n_m_de_2__fl46blw10_48v_5n_m_de_4_material">
        <color rgba="1 1 1 1"/>
      </material>
    </visual>
    <collision>
      <origin xyz="1.60982e-15 -0.053 -0.02" rpy="-2.35783e-14 5.21294e-14 0.785398"/>
      <geometry>
        <mesh filename="package://assets/6706__300001_1_1_00mini_000_asm_1_asm_1_asm_00mini__20250103_a0001_asm_1_as_asm_1_1_30_gr_2202_asm_1_asm_1_1_30_gr_2202_asm_fl46blw10_48v_5n_m_de_2__fl46blw10_48v_5n_m_de.stl"/>
      </geometry>
    </collision>
    <!-- Part 0001755650_00mini_000_asm_1_asm_1_asm_00mini__20250103_a0001_asm_1_as_asm_1_1_30_gr_2202_asm_1_asm_1_1_30_gr_2202_asm_fl46blw10_48v_5n_m_de_2__fl46blw10_48v_5n_m_de_4 -->
    <visual>
      <origin xyz="1.11022e-15 -0.053 -0.0204" rpy="-2.35783e-14 5.21294e-14 0.785398"/>
      <geometry>
        <mesh filename="package://assets/0001755650_00mini_000_asm_1_asm_1_asm_00mini__20250103_a0001_asm_1_as_asm_1_1_30_gr_2202_asm_1_asm_1_1_30_gr_2202_asm_fl46blw10_48v_5n_m_de_2__fl46blw10_48v_5n_m_de.stl"/>
      </geometry>
      <material name="0001755650_00mini_000_asm_1_asm_1_asm_00mini__20250103_a0001_asm_1_as_asm_1_1_30_gr_2202_asm_1_asm_1_1_30_gr_2202_asm_fl46blw10_48v_5n_m_de_2__fl46blw10_48v_5n_m_de_4_material">
        <color rgba="1 1 1 1"/>
      </material>
    </visual>
    <collision>
      <origin xyz="1.11022e-15 -0.053 -0.0204" rpy="-2.35783e-14 5.21294e-14 0.785398"/>
      <geometry>
        <mesh filename="package://assets/0001755650_00mini_000_asm_1_asm_1_asm_00mini__20250103_a0001_asm_1_as_asm_1_1_30_gr_2202_asm_1_asm_1_1_30_gr_2202_asm_fl46blw10_48v_5n_m_de_2__fl46blw10_48v_5n_m_de.stl"/>
      </geometry>
    </collision>
  </link>
  <!-- Link ankle_subassembly_2 -->
  <link name="ankle_subassembly_2">
    <inertial>
      <origin xyz="1.62086e-08 -0.000727483 0.02" rpy="0 0 0"/>
      <mass value="0.0168168"/>
      <inertia ixx="5.19458e-06" ixy="-2.61119e-12" ixz="4.35145e-12" iyy="4.86353e-06" iyz="7.24871e-13" izz="8.35665e-07"/>
    </inertial>
    <!-- Part hex_socket_head_cap_screw_m2_5x0_45_x_6__ec244025d76f8b83b2775022a2cb3232_22 -->
    <!-- Part 07534_05x40_catpart_4 -->
    <visual>
      <origin xyz="-6.10623e-15 0.0249999 0.02" rpy="2.08271e-13 2.98845e-14 -1.5708"/>
      <geometry>
        <mesh filename="package://assets/07534_05x40_catpart.stl"/>
      </geometry>
      <material name="07534_05x40_catpart_4_material">
        <color rgba="0.690196 0.690196 0.690196 1"/>
      </material>
    </visual>
    <collision>
      <origin xyz="-6.10623e-15 0.0249999 0.02" rpy="2.08271e-13 2.98845e-14 -1.5708"/>
      <geometry>
        <mesh filename="package://assets/07534_05x40_catpart.stl"/>
      </geometry>
    </collision>
    <!-- Part ujoint_2 -->
    <visual>
      <origin xyz="-2.22045e-15 -4.64212e-15 0.02" rpy="-3.14159 -1.5708 0"/>
      <geometry>
        <mesh filename="package://assets/ujoint.stl"/>
      </geometry>
      <material name="ujoint_2_material">
        <color rgba="1 0 0 1"/>
      </material>
    </visual>
    <collision>
      <origin xyz="-2.22045e-15 -4.64212e-15 0.02" rpy="-3.14159 -1.5708 0"/>
      <geometry>
        <mesh filename="package://assets/ujoint.stl"/>
      </geometry>
    </collision>
    <!-- Part hex_socket_head_cap_screw_m2_5x0_45_x_6__ec244025d76f8b83b2775022a2cb3232_23 -->
    <!-- Part spacer_ujoint_3 -->
    <visual>
      <origin xyz="-1.22125e-15 -6.89032e-15 0.02" rpy="-3.14159 1.54943 -3.14159"/>
      <geometry>
        <mesh filename="package://assets/spacer_ujoint.stl"/>
      </geometry>
      <material name="spacer_ujoint_3_material">
        <color rgba="0.917647 0.917647 0.917647 1"/>
      </material>
    </visual>
    <collision>
      <origin xyz="-1.22125e-15 -6.89032e-15 0.02" rpy="-3.14159 1.54943 -3.14159"/>
      <geometry>
        <mesh filename="package://assets/spacer_ujoint.stl"/>
      </geometry>
    </collision>
    <!-- Part hex_thin_nut_grade_a___b_m4x0_7__a8228d9ce5dcc05f24da0a2f74d882f3_8 -->
    <visual>
      <origin xyz="-2.39808e-14 -0.02204 0.02" rpy="1.5708 1.54943 -3.14159"/>
      <geometry>
        <mesh filename="package://assets/hex_thin_nut_grade_a___b_m4x0_7__a8228d9ce5dcc05f24da0a2f74d882f3.stl"/>
      </geometry>
      <material name="hex_thin_nut_grade_a___b_m4x0_7__a8228d9ce5dcc05f24da0a2f74d882f3_8_material">
        <color rgba="0.603922 0.647059 0.686275 1"/>
      </material>
    </visual>
    <collision>
      <origin xyz="-2.39808e-14 -0.02204 0.02" rpy="1.5708 1.54943 -3.14159"/>
      <geometry>
        <mesh filename="package://assets/hex_thin_nut_grade_a___b_m4x0_7__a8228d9ce5dcc05f24da0a2f74d882f3.stl"/>
      </geometry>
    </collision>
    <!-- Part part_3_5 -->
    <visual>
      <origin xyz="6.66134e-16 -6.11663e-15 0.0205" rpy="-3.14159 -1.5708 0"/>
      <geometry>
        <mesh filename="package://assets/part_3.stl"/>
      </geometry>
      <material name="part_3_5_material">
        <color rgba="1 0 0 1"/>
      </material>
    </visual>
    <collision>
      <origin xyz="6.66134e-16 -6.11663e-15 0.0205" rpy="-3.14159 -1.5708 0"/>
      <geometry>
        <mesh filename="package://assets/part_3.stl"/>
      </geometry>
    </collision>
    <!-- Part bearing_5_16_5_7 -->
    <visual>
      <origin xyz="7.54952e-15 -0.01594 0.02" rpy="3.14159 1.54943 -3.14159"/>
      <geometry>
        <mesh filename="package://assets/bearing_5_16_5.stl"/>
      </geometry>
      <material name="bearing_5_16_5_7_material">
        <color rgba="0.917647 0.917647 0.917647 1"/>
      </material>
    </visual>
    <collision>
      <origin xyz="7.54952e-15 -0.01594 0.02" rpy="3.14159 1.54943 -3.14159"/>
      <geometry>
        <mesh filename="package://assets/bearing_5_16_5.stl"/>
      </geometry>
    </collision>
    <!-- Part bearing_15_21_4_13 -->
    <visual>
      <origin xyz="-2.33147e-15 -8.62158e-15 0.04" rpy="-1.5708 -1.38084e-15 -3.14159"/>
      <geometry>
        <mesh filename="package://assets/bearing_15_21_4.stl"/>
      </geometry>
      <material name="bearing_15_21_4_13_material">
        <color rgba="0.647059 0.647059 0.647059 1"/>
      </material>
    </visual>
    <collision>
      <origin xyz="-2.33147e-15 -8.62158e-15 0.04" rpy="-1.5708 -1.38084e-15 -3.14159"/>
      <geometry>
        <mesh filename="package://assets/bearing_15_21_4.stl"/>
      </geometry>
    </collision>
    <!-- Part hex_socket_head_cap_screw_m2_5x0_45_x_6__ec244025d76f8b83b2775022a2cb3232_24 -->
    <!-- Part hex_socket_head_cap_screw_m2_5x0_45_x_6__ec244025d76f8b83b2775022a2cb3232_25 -->
    <!-- Part part_3_6 -->
    <visual>
      <origin xyz="-3.9968e-15 -2.2829e-15 0.0195" rpy="3.14159 1.5708 0"/>
      <geometry>
        <mesh filename="package://assets/part_3.stl"/>
      </geometry>
      <material name="part_3_6_material">
        <color rgba="1 0 0 1"/>
      </material>
    </visual>
    <collision>
      <origin xyz="-3.9968e-15 -2.2829e-15 0.0195" rpy="3.14159 1.5708 0"/>
      <geometry>
        <mesh filename="package://assets/part_3.stl"/>
      </geometry>
    </collision>
    <!-- Part hex_socket_head_cap_screw_m2_5x0_45_x_6__ec244025d76f8b83b2775022a2cb3232_26 -->
    <!-- Part hex_socket_head_cap_screw_m2_5x0_45_x_6__ec244025d76f8b83b2775022a2cb3232_27 -->
    <!-- Part bearing_5_16_5_8 -->
    <visual>
      <origin xyz="2.9976e-15 0.0209456 0.02" rpy="-4.08945e-14 -0.0146585 1.26567e-13"/>
      <geometry>
        <mesh filename="package://assets/bearing_5_16_5.stl"/>
      </geometry>
      <material name="bearing_5_16_5_8_material">
        <color rgba="0.917647 0.917647 0.917647 1"/>
      </material>
    </visual>
    <collision>
      <origin xyz="2.9976e-15 0.0209456 0.02" rpy="-4.08945e-14 -0.0146585 1.26567e-13"/>
      <geometry>
        <mesh filename="package://assets/bearing_5_16_5.stl"/>
      </geometry>
    </collision>
    <!-- Part spacer_ujoint_4 -->
    <visual>
      <origin xyz="3.77476e-15 5.64895e-06 0.02" rpy="3.2946e-12 -1.55614 3.14159"/>
      <geometry>
        <mesh filename="package://assets/spacer_ujoint.stl"/>
      </geometry>
      <material name="spacer_ujoint_4_material">
        <color rgba="0.917647 0.917647 0.917647 1"/>
      </material>
    </visual>
    <collision>
      <origin xyz="3.77476e-15 5.64895e-06 0.02" rpy="3.2946e-12 -1.55614 3.14159"/>
      <geometry>
        <mesh filename="package://assets/spacer_ujoint.stl"/>
      </geometry>
    </collision>
    <!-- Part bearing_15_21_4_14 -->
    <visual>
      <origin xyz="0 0 0" rpy="1.5708 2.15704e-32 -2.99028e-30"/>
      <geometry>
        <mesh filename="package://assets/bearing_15_21_4.stl"/>
      </geometry>
      <material name="bearing_15_21_4_14_material">
        <color rgba="0.647059 0.647059 0.647059 1"/>
      </material>
    </visual>
    <collision>
      <origin xyz="0 0 0" rpy="1.5708 2.15704e-32 -2.99028e-30"/>
      <geometry>
        <mesh filename="package://assets/bearing_15_21_4.stl"/>
      </geometry>
    </collision>
  </link>
  <!-- Link foot_subassembly_2 -->
  <link name="foot_subassembly_2">
    <inertial>
      <origin xyz="8.52312e-09 -0.0138418 -0.052232" rpy="0 0 0"/>
      <mass value="0.122498"/>
      <inertia ixx="0.000163413" ixy="-1.15065e-10" ixz="-2.96383e-11" iyy="0.000162266" iyz="1.11374e-05" izz="7.07692e-05"/>
    </inertial>
    <!-- Part hex_socket_head_cap_screw_m2_5x0_45_x_6__ec244025d76f8b83b2775022a2cb3232_28 -->
    <!-- Part 27628_01_050_catpart_7 -->
    <visual>
      <origin xyz="0.021 3.53792e-08 -0.0660002" rpy="3.14159 3.14479e-18 1.5708"/>
      <geometry>
        <mesh filename="package://assets/27628_01_050_catpart.stl"/>
      </geometry>
      <material name="27628_01_050_catpart_7_material">
        <color rgba="0.690196 0.690196 0.690196 1"/>
      </material>
    </visual>
    <collision>
      <origin xyz="0.021 3.53792e-08 -0.0660002" rpy="3.14159 3.14479e-18 1.5708"/>
      <geometry>
        <mesh filename="package://assets/27628_01_050_catpart.stl"/>
      </geometry>
    </collision>
    <!-- Part hex_socket_head_cap_screw_m2_5x0_45_x_6__ec244025d76f8b83b2775022a2cb3232_29 -->
    <!-- Part 07534_05x20_catpart_7 -->
    <visual>
      <origin xyz="0.036 0 -0.066" rpy="3.14159 -6.63402e-31 3.14159"/>
      <geometry>
        <mesh filename="package://assets/07534_05x20_catpart.stl"/>
      </geometry>
      <material name="07534_05x20_catpart_7_material">
        <color rgba="0.690196 0.690196 0.690196 1"/>
      </material>
    </visual>
    <collision>
      <origin xyz="0.036 0 -0.066" rpy="3.14159 -6.63402e-31 3.14159"/>
      <geometry>
        <mesh filename="package://assets/07534_05x20_catpart.stl"/>
      </geometry>
    </collision>
    <!-- Part 27628_01_050_catpart_8 -->
    <visual>
      <origin xyz="-0.021 -1.89504e-08 -0.066" rpy="-3.14159 -1.43337e-15 1.5708"/>
      <geometry>
        <mesh filename="package://assets/27628_01_050_catpart.stl"/>
      </geometry>
      <material name="27628_01_050_catpart_8_material">
        <color rgba="0.690196 0.690196 0.690196 1"/>
      </material>
    </visual>
    <collision>
      <origin xyz="-0.021 -1.89504e-08 -0.066" rpy="-3.14159 -1.43337e-15 1.5708"/>
      <geometry>
        <mesh filename="package://assets/27628_01_050_catpart.stl"/>
      </geometry>
    </collision>
    <!-- Part 07534_05x20_catpart_8 -->
    <visual>
      <origin xyz="-0.036 0 -0.066" rpy="-7.26192e-17 5.55112e-17 -3.08149e-31"/>
      <geometry>
        <mesh filename="package://assets/07534_05x20_catpart.stl"/>
      </geometry>
      <material name="07534_05x20_catpart_8_material">
        <color rgba="0.690196 0.690196 0.690196 1"/>
      </material>
    </visual>
    <collision>
      <origin xyz="-0.036 0 -0.066" rpy="-7.26192e-17 5.55112e-17 -3.08149e-31"/>
      <geometry>
        <mesh filename="package://assets/07534_05x20_catpart.stl"/>
      </geometry>
    </collision>
    <!-- Part hat_small_2 -->
    <visual>
      <origin xyz="2.35922e-16 -0.035 -0.0385" rpy="-1.5708 -1.5708 0"/>
      <geometry>
        <mesh filename="package://assets/hat_small.stl"/>
      </geometry>
      <material name="hat_small_2_material">
        <color rgba="1 0 0 1"/>
      </material>
    </visual>
    <collision>
      <origin xyz="2.35922e-16 -0.035 -0.0385" rpy="-1.5708 -1.5708 0"/>
      <geometry>
        <mesh filename="package://assets/hat_small.stl"/>
      </geometry>
    </collision>
    <!-- Part hex_socket_head_cap_screw_m2_5x0_45_x_6__ec244025d76f8b83b2775022a2cb3232_30 -->
    <!-- Part foot_2 -->
    <visual>
      <origin xyz="1.11022e-16 -0.035 -0.0385" rpy="-1.5708 -1.5708 0"/>
      <geometry>
        <mesh filename="package://assets/foot.stl"/>
      </geometry>
      <material name="foot_2_material">
        <color rgba="0.301961 0.301961 0.301961 1"/>
      </material>
    </visual>
    <collision>
      <origin xyz="1.11022e-16 -0.035 -0.0385" rpy="-1.5708 -1.5708 0"/>
      <geometry>
        <mesh filename="package://assets/foot.stl"/>
      </geometry>
    </collision>
  </link>
  <!-- Frame foot_left (dummy link + fixed joint) -->
  <link name="foot_left">
    <origin xyz="0 0 0" rpy="0 -0 0"/>
    <inertial>
      <origin xyz="0 0 0" rpy="0 0 0"/>
      <mass value="1e-9"/>
      <inertia ixx="0" ixy="0" ixz="0" iyy="0" iyz="0" izz="0"/>
    </inertial>
  </link>
  <joint name="foot_left_frame" type="fixed">
    <origin xyz="-6.35351e-08 -0.035 -0.0480606" rpy="-1.5708 1.5708 0"/>
    <parent link="foot_subassembly_2"/>
    <child link="foot_left"/>
    <axis xyz="0 0 0"/>
  </joint>
  <!-- Joint from ankle_subassembly_2 to foot_subassembly_2 -->
  <joint name="anklex_left" type="revolute">
    <origin xyz="7.54952e-15 -0.01594 0.02" rpy="1.5708 -1.5708 0"/>
    <parent link="ankle_subassembly_2"/>
    <child link="foot_subassembly_2"/>
    <axis xyz="0 0 1"/>
    <limit effort="10" velocity="10" lower="-3.141592653589793" upper="3.141592653589793"/>
  </joint>
  <!-- Joint from shin_subassembly_sym to ankle_subassembly_2 -->
  <joint name="ankley_left" type="revolute">
    <origin xyz="-4.44089e-16 -0.26 -0.02" rpy="-1.55096e-15 -1.7069e-15 -0.955199"/>
    <parent link="shin_subassembly_sym"/>
    <child link="ankle_subassembly_2"/>
    <axis xyz="0 0 1"/>
    <limit effort="10" velocity="10" lower="-3.141592653589793" upper="3.141592653589793"/>
  </joint>
  <!-- Joint from tigh_subassembly_sym to shin_subassembly_sym -->
  <joint name="knee_left" type="revolute">
    <origin xyz="-0.17 -0.294449 -0.0305" rpy="3.0015e-14 6.08366e-14 -1.52464"/>
    <parent link="tigh_subassembly_sym"/>
    <child link="shin_subassembly_sym"/>
    <axis xyz="0 0 1"/>
    <limit effort="10" velocity="10" lower="-3.141592653589793" upper="3.141592653589793"/>
  </joint>
  <!-- Joint from hipy_subassembly_sym to tigh_subassembly_sym -->
  <joint name="hipy_left" type="revolute">
    <origin xyz="0.012638 0.0276823 -0.112055" rpy="1.65232 -0.597994 2.66786"/>
    <parent link="hipy_subassembly_sym"/>
    <child link="tigh_subassembly_sym"/>
    <axis xyz="0 0 1"/>
    <limit effort="10" velocity="10" lower="-3.141592653589793" upper="3.141592653589793"/>
  </joint>
  <!-- Joint from hipx_subassemby_sym to hipy_subassembly_sym -->
  <joint name="hipx_left" type="revolute">
    <origin xyz="-0.01897 0.0289 -0.09689" rpy="0.0593605 0.3145 2.3413"/>
    <parent link="hipx_subassemby_sym"/>
    <child link="hipy_subassembly_sym"/>
    <axis xyz="0 0 1"/>
    <limit effort="10" velocity="10" lower="-3.141592653589793" upper="3.141592653589793"/>
  </joint>
  <!-- Joint from torso_subassembly to hipx_subassemby_sym -->
  <joint name="hipz_left" type="revolute">
    <origin xyz="-0.000819037 0.13316 0.04164" rpy="-0.0475276 0.133035 1.20169"/>
    <parent link="torso_subassembly"/>
    <child link="hipx_subassemby_sym"/>
    <axis xyz="0 0 1"/>
    <limit effort="10" velocity="10" lower="-3.141592653589793" upper="3.141592653589793"/>
  </joint>
  <!-- Link torso_subassembly_2 -->
  <link name="torso_subassembly_2">
    <inertial>
      <origin xyz="-0.0016543 7.11966e-08 -0.15917" rpy="0 0 0"/>
      <mass value="2.64598"/>
      <inertia ixx="0.0262387" ixy="3.33924e-09" ixz="-0.000256171" iyy="0.0163605" iyz="8.14425e-09" izz="0.0108077"/>
    </inertial>
    <!-- Part torso_pperbody_part -->
    <visual>
      <origin xyz="-3.46945e-18 5.29396e-23 0" rpy="3.14159 -7.26695e-34 -9.47874e-35"/>
      <geometry>
        <mesh filename="package://assets/torso_pperbody_part.stl"/>
      </geometry>
      <material name="torso_pperbody_part_material">
        <color rgba="0.301961 0.301961 0.301961 1"/>
      </material>
    </visual>
    <collision>
      <origin xyz="-3.46945e-18 5.29396e-23 0" rpy="3.14159 -7.26695e-34 -9.47874e-35"/>
      <geometry>
        <mesh filename="package://assets/torso_pperbody_part.stl"/>
      </geometry>
    </collision>
    <!-- Part robstrideo0_3 -->
    <visual>
      <origin xyz="-0.491975 -0.221542 0.0994842" rpy="2.5229 0.491394 0.585307"/>
      <geometry>
        <mesh filename="package://assets/robstrideo0.stl"/>
      </geometry>
      <material name="robstrideo0_3_material">
        <color rgba="0.301961 0.301961 0.301961 1"/>
      </material>
    </visual>
    <collision>
      <origin xyz="-0.491975 -0.221542 0.0994842" rpy="2.5229 0.491394 0.585307"/>
      <geometry>
        <mesh filename="package://assets/robstrideo0.stl"/>
      </geometry>
    </collision>
    <!-- Part rs00_3 -->
    <!-- Part bearing_holder_upperbody -->
    <visual>
      <origin xyz="-0.132416 -0.177102 -0.290974" rpy="-0.607143 -0.104716 0.108707"/>
      <geometry>
        <mesh filename="package://assets/bearing_holder_upperbody.stl"/>
      </geometry>
      <material name="bearing_holder_upperbody_material">
        <color rgba="1 0 0 1"/>
      </material>
    </visual>
    <collision>
      <origin xyz="-0.132416 -0.177102 -0.290974" rpy="-0.607143 -0.104716 0.108707"/>
      <geometry>
        <mesh filename="package://assets/bearing_holder_upperbody.stl"/>
      </geometry>
    </collision>
    <!-- Part bearing_holder_upperbody_2 -->
    <visual>
      <origin xyz="-0.116047 0.20345 -0.285486" rpy="-0.292208 0.049416 -1.01196"/>
      <geometry>
        <mesh filename="package://assets/bearing_holder_upperbody.stl"/>
      </geometry>
      <material name="bearing_holder_upperbody_2_material">
        <color rgba="1 0 0 1"/>
      </material>
    </visual>
    <collision>
      <origin xyz="-0.116047 0.20345 -0.285486" rpy="-0.292208 0.049416 -1.01196"/>
      <geometry>
        <mesh filename="package://assets/bearing_holder_upperbody.stl"/>
      </geometry>
    </collision>
    <!-- Part rs00_4 -->
    <!-- Part robstrideo0_4 -->
    <visual>
      <origin xyz="-0.491975 0.236796 0.0837372" rpy="0.61869 0.491394 -0.585307"/>
      <geometry>
        <mesh filename="package://assets/robstrideo0.stl"/>
      </geometry>
      <material name="robstrideo0_4_material">
        <color rgba="0.301961 0.301961 0.301961 1"/>
      </material>
    </visual>
    <collision>
      <origin xyz="-0.491975 0.236796 0.0837372" rpy="0.61869 0.491394 -0.585307"/>
      <geometry>
        <mesh filename="package://assets/robstrideo0.stl"/>
      </geometry>
    </collision>
  </link>
  <!-- Link shoulder1_subassembly -->
  <link name="shoulder1_subassembly">
    <inertial>
      <origin xyz="-0.00416441 0.00450914 -0.0453884" rpy="0 0 0"/>
      <mass value="0.0533612"/>
      <inertia ixx="3.8204e-05" ixy="3.3665e-06" ixz="-4.64098e-06" iyy="3.76594e-05" iyz="4.9903e-06" izz="1.45394e-05"/>
    </inertial>
    <!-- Part shoulder1_part -->
    <visual>
      <origin xyz="0.000329193 0.000172647 -0.0246" rpy="3.15577e-14 1.03708e-14 5.81413e-17"/>
      <geometry>
        <mesh filename="package://assets/shoulder1_part.stl"/>
      </geometry>
      <material name="shoulder1_part_material">
        <color rgba="0.917647 0.917647 0.917647 1"/>
      </material>
    </visual>
    <collision>
      <origin xyz="0.000329193 0.000172647 -0.0246" rpy="3.15577e-14 1.03708e-14 5.81413e-17"/>
      <geometry>
        <mesh filename="package://assets/shoulder1_part.stl"/>
      </geometry>
    </collision>
  </link>
  <!-- Link shoulder2_subassembly -->
  <link name="shoulder2_subassembly">
    <inertial>
      <origin xyz="0.0503222 -0.00802453 -0.0185814" rpy="0 0 0"/>
      <mass value="0.813928"/>
      <inertia ixx="0.000525696" ixy="0.000274135" ixz="0.000432213" iyy="0.00220185" iyz="-6.88388e-05" izz="0.00222619"/>
    </inertial>
    <!-- Part shoulder2_part -->
    <visual>
      <origin xyz="0.000468005 -7.46642e-05 0.0076" rpy="3.14159 -7.1392e-16 1.77334e-16"/>
      <geometry>
        <mesh filename="package://assets/shoulder2_part.stl"/>
      </geometry>
      <material name="shoulder2_part_material">
        <color rgba="1 0 0 1"/>
      </material>
    </visual>
    <collision>
      <origin xyz="0.000468005 -7.46642e-05 0.0076" rpy="3.14159 -7.1392e-16 1.77334e-16"/>
      <geometry>
        <mesh filename="package://assets/shoulder2_part.stl"/>
      </geometry>
    </collision>
    <!-- Part bearing_holder_upperbody_3 -->
    <visual>
      <origin xyz="-0.0301619 -0.0078876 -0.161645" rpy="0.19984 -0.896052 2.38405e-16"/>
      <geometry>
        <mesh filename="package://assets/bearing_holder_upperbody.stl"/>
      </geometry>
      <material name="bearing_holder_upperbody_3_material">
        <color rgba="1 0 0 1"/>
      </material>
    </visual>
    <collision>
      <origin xyz="-0.0301619 -0.0078876 -0.161645" rpy="0.19984 -0.896052 2.38405e-16"/>
      <geometry>
        <mesh filename="package://assets/bearing_holder_upperbody.stl"/>
      </geometry>
    </collision>
    <!-- Part rs00_5 -->
    <!-- Part robstrideo0_5 -->
    <visual>
      <origin xyz="0.672821 0.010962 -0.0204" rpy="-1.5708 1.29013e-15 -3.14159"/>
      <geometry>
        <mesh filename="package://assets/robstrideo0.stl"/>
      </geometry>
      <material name="robstrideo0_5_material">
        <color rgba="0.301961 0.301961 0.301961 1"/>
      </material>
    </visual>
    <collision>
      <origin xyz="0.672821 0.010962 -0.0204" rpy="-1.5708 1.29013e-15 -3.14159"/>
      <geometry>
        <mesh filename="package://assets/robstrideo0.stl"/>
      </geometry>
    </collision>
    <!-- Part bearing_holder_upperbody_4 -->
    <visual>
      <origin xyz="-0.0145093 -0.0293258 0.0548542" rpy="2.05954 0.646139 0.701764"/>
      <geometry>
        <mesh filename="package://assets/bearing_holder_upperbody.stl"/>
      </geometry>
      <material name="bearing_holder_upperbody_4_material">
        <color rgba="1 0 0 1"/>
      </material>
    </visual>
    <collision>
      <origin xyz="-0.0145093 -0.0293258 0.0548542" rpy="2.05954 0.646139 0.701764"/>
      <geometry>
        <mesh filename="package://assets/bearing_holder_upperbody.stl"/>
      </geometry>
    </collision>
    <!-- Part robstrideo0_6 -->
    <visual>
      <origin xyz="0.526487 0.0981138 0.476889" rpy="-1.25726 0.871548 -2.89837"/>
      <geometry>
        <mesh filename="package://assets/robstrideo0.stl"/>
      </geometry>
      <material name="robstrideo0_6_material">
        <color rgba="0.301961 0.301961 0.301961 1"/>
      </material>
    </visual>
    <collision>
      <origin xyz="0.526487 0.0981138 0.476889" rpy="-1.25726 0.871548 -2.89837"/>
      <geometry>
        <mesh filename="package://assets/robstrideo0.stl"/>
      </geometry>
    </collision>
    <!-- Part rs00_6 -->
  </link>
  <!-- Link shoulder3_subassembly -->
  <link name="shoulder3_subassembly">
    <inertial>
      <origin xyz="-0.0110338 4.44904e-10 -0.0847765" rpy="0 0 0"/>
      <mass value="0.356129"/>
      <inertia ixx="0.000279042" ixy="-1.77807e-12" ixz="-2.6579e-05" iyy="0.000233518" iyz="-4.9388e-12" izz="0.000103338"/>
    </inertial>
    <!-- Part rs00_7 -->
    <!-- Part robstrideo0_7 -->
    <visual>
      <origin xyz="-0.025 -0.672821 -0.102555" rpy="-3.77165e-18 -9.17562e-16 1.5708"/>
      <geometry>
        <mesh filename="package://assets/robstrideo0.stl"/>
      </geometry>
      <material name="robstrideo0_7_material">
        <color rgba="0.301961 0.301961 0.301961 1"/>
      </material>
    </visual>
    <collision>
      <origin xyz="-0.025 -0.672821 -0.102555" rpy="-3.77165e-18 -9.17562e-16 1.5708"/>
      <geometry>
        <mesh filename="package://assets/robstrideo0.stl"/>
      </geometry>
    </collision>
    <!-- Part shoulder3_part -->
    <visual>
      <origin xyz="0 0 -0.091593" rpy="1.5708 1.5708 0"/>
      <geometry>
        <mesh filename="package://assets/shoulder3_part.stl"/>
      </geometry>
      <material name="shoulder3_part_material">
        <color rgba="1 0 0 1"/>
      </material>
    </visual>
    <collision>
      <origin xyz="0 0 -0.091593" rpy="1.5708 1.5708 0"/>
      <geometry>
        <mesh filename="package://assets/shoulder3_part.stl"/>
      </geometry>
    </collision>
  </link>
  <!-- Link forarm_subassembly -->
  <link name="forarm_subassembly">
    <inertial>
      <origin xyz="0.11974 6.15457e-17 0.026489" rpy="0 0 0"/>
      <mass value="0.119991"/>
      <inertia ixx="2.5897e-05" ixy="-1.43221e-19" ixz="-7.3416e-06" iyy="0.000586836" iyz="-6.45599e-13" izz="0.000576186"/>
    </inertial>
    <!-- Part forarm_part -->
    <visual>
      <origin xyz="-5.55112e-17 5.55112e-17 0.027" rpy="1.5708 3.85705e-16 5.19675e-17"/>
      <geometry>
        <mesh filename="package://assets/forarm_part.stl"/>
      </geometry>
      <material name="forarm_part_material">
        <color rgba="0.917647 0.917647 0.917647 1"/>
      </material>
    </visual>
    <collision>
      <origin xyz="-5.55112e-17 5.55112e-17 0.027" rpy="1.5708 3.85705e-16 5.19675e-17"/>
      <geometry>
        <mesh filename="package://assets/forarm_part.stl"/>
      </geometry>
    </collision>
  </link>
  <!-- Frame right_hand (dummy link + fixed joint) -->
  <link name="right_hand">
    <origin xyz="0 0 0" rpy="0 -0 0"/>
    <inertial>
      <origin xyz="0 0 0" rpy="0 0 0"/>
      <mass value="1e-9"/>
      <inertia ixx="0" ixy="0" ixz="0" iyy="0" iyz="0" izz="0"/>
    </inertial>
  </link>
  <joint name="right_hand_frame" type="fixed">
    <origin xyz="0.23 5.55112e-17 0.027" rpy="1.5708 1.67402e-18 1.01966e-15"/>
    <parent link="forarm_subassembly"/>
    <child link="right_hand"/>
    <axis xyz="0 0 0"/>
  </joint>
  <!-- Joint from shoulder3_subassembly to forarm_subassembly -->
  <joint name="elbow_right" type="revolute">
    <origin xyz="0.0264 -2.77556e-17 -0.091593" rpy="-1.5708 -1.23952e-14 1.5708"/>
    <parent link="shoulder3_subassembly"/>
    <child link="forarm_subassembly"/>
    <axis xyz="0 0 1"/>
    <limit effort="10" velocity="10" lower="-3.141592653589793" upper="3.141592653589793"/>
  </joint>
  <!-- Joint from shoulder2_subassembly to shoulder3_subassembly -->
  <joint name="shoulder3_right" type="revolute">
    <origin xyz="0.10649 -0.0169749 -0.0361066" rpy="0.911858 -0.00649618 -1.72326"/>
    <parent link="shoulder2_subassembly"/>
    <child link="shoulder3_subassembly"/>
    <axis xyz="0 0 1"/>
    <limit effort="10" velocity="10" lower="-3.141592653589793" upper="3.141592653589793"/>
  </joint>
  <!-- Joint from shoulder1_subassembly to shoulder2_subassembly -->
  <joint name="shoulder2_right" type="revolute">
    <origin xyz="-0.0258903 0.0281746 -0.0637558" rpy="-1.7052 0.719449 -2.49062"/>
    <parent link="shoulder1_subassembly"/>
    <child link="shoulder2_subassembly"/>
    <axis xyz="0 0 1"/>
    <limit effort="10" velocity="10" lower="-3.141592653589793" upper="3.141592653589793"/>
  </joint>
  <!-- Joint from torso_subassembly_2 to shoulder1_subassembly -->
  <joint name="shoulder1_right" type="revolute">
    <origin xyz="-0.00401992 0.10362 -0.230772" rpy="2.14268 0.333811 -2.02436"/>
    <parent link="torso_subassembly_2"/>
    <child link="shoulder1_subassembly"/>
    <axis xyz="0 0 1"/>
    <limit effort="10" velocity="10" lower="-3.141592653589793" upper="3.141592653589793"/>
  </joint>
  <!-- Link shoulder1_subassembly_2 -->
  <link name="shoulder1_subassembly_2">
    <inertial>
      <origin xyz="-0.00416441 0.00450914 -0.0453884" rpy="0 0 0"/>
      <mass value="0.0533612"/>
      <inertia ixx="3.8204e-05" ixy="3.3665e-06" ixz="-4.64098e-06" iyy="3.76594e-05" iyz="4.9903e-06" izz="1.45394e-05"/>
    </inertial>
    <!-- Part shoulder1_part_2 -->
    <visual>
      <origin xyz="0.000329193 0.000172647 -0.0246" rpy="3.15474e-14 1.03947e-14 9.04429e-18"/>
      <geometry>
        <mesh filename="package://assets/shoulder1_part.stl"/>
      </geometry>
      <material name="shoulder1_part_2_material">
        <color rgba="0.917647 0.917647 0.917647 1"/>
      </material>
    </visual>
    <collision>
      <origin xyz="0.000329193 0.000172647 -0.0246" rpy="3.15474e-14 1.03947e-14 9.04429e-18"/>
      <geometry>
        <mesh filename="package://assets/shoulder1_part.stl"/>
      </geometry>
    </collision>
  </link>
  <!-- Link shoulder2_subassembly_2 -->
  <link name="shoulder2_subassembly_2">
    <inertial>
      <origin xyz="0.0503222 -0.00802453 -0.0185814" rpy="0 0 0"/>
      <mass value="0.813928"/>
      <inertia ixx="0.000525696" ixy="0.000274135" ixz="0.000432213" iyy="0.00220185" iyz="-6.88388e-05" izz="0.00222619"/>
    </inertial>
    <!-- Part shoulder2_part_2 -->
    <visual>
      <origin xyz="0.000468005 -7.46642e-05 0.0076" rpy="3.14159 1.06573e-16 -6.5268e-17"/>
      <geometry>
        <mesh filename="package://assets/shoulder2_part.stl"/>
      </geometry>
      <material name="shoulder2_part_2_material">
        <color rgba="1 0 0 1"/>
      </material>
    </visual>
    <collision>
      <origin xyz="0.000468005 -7.46642e-05 0.0076" rpy="3.14159 1.06573e-16 -6.5268e-17"/>
      <geometry>
        <mesh filename="package://assets/shoulder2_part.stl"/>
      </geometry>
    </collision>
    <!-- Part bearing_holder_upperbody_5 -->
    <visual>
      <origin xyz="-0.0301619 -0.0078876 -0.161645" rpy="0.19984 -0.896052 1.35757e-15"/>
      <geometry>
        <mesh filename="package://assets/bearing_holder_upperbody.stl"/>
      </geometry>
      <material name="bearing_holder_upperbody_5_material">
        <color rgba="1 0 0 1"/>
      </material>
    </visual>
    <collision>
      <origin xyz="-0.0301619 -0.0078876 -0.161645" rpy="0.19984 -0.896052 1.35757e-15"/>
      <geometry>
        <mesh filename="package://assets/bearing_holder_upperbody.stl"/>
      </geometry>
    </collision>
    <!-- Part rs00_8 -->
    <!-- Part robstrideo0_8 -->
    <visual>
      <origin xyz="0.672821 0.010962 -0.0204" rpy="-1.5708 6.48527e-16 3.14159"/>
      <geometry>
        <mesh filename="package://assets/robstrideo0.stl"/>
      </geometry>
      <material name="robstrideo0_8_material">
        <color rgba="0.301961 0.301961 0.301961 1"/>
      </material>
    </visual>
    <collision>
      <origin xyz="0.672821 0.010962 -0.0204" rpy="-1.5708 6.48527e-16 3.14159"/>
      <geometry>
        <mesh filename="package://assets/robstrideo0.stl"/>
      </geometry>
    </collision>
    <!-- Part bearing_holder_upperbody_6 -->
    <visual>
      <origin xyz="-0.0145093 -0.0293258 0.0548542" rpy="2.05954 0.646139 0.701764"/>
      <geometry>
        <mesh filename="package://assets/bearing_holder_upperbody.stl"/>
      </geometry>
      <material name="bearing_holder_upperbody_6_material">
        <color rgba="1 0 0 1"/>
      </material>
    </visual>
    <collision>
      <origin xyz="-0.0145093 -0.0293258 0.0548542" rpy="2.05954 0.646139 0.701764"/>
      <geometry>
        <mesh filename="package://assets/bearing_holder_upperbody.stl"/>
      </geometry>
    </collision>
    <!-- Part robstrideo0_9 -->
    <visual>
      <origin xyz="0.526487 0.0981138 0.476889" rpy="-1.25726 0.871548 -2.89837"/>
      <geometry>
        <mesh filename="package://assets/robstrideo0.stl"/>
      </geometry>
      <material name="robstrideo0_9_material">
        <color rgba="0.301961 0.301961 0.301961 1"/>
      </material>
    </visual>
    <collision>
      <origin xyz="0.526487 0.0981138 0.476889" rpy="-1.25726 0.871548 -2.89837"/>
      <geometry>
        <mesh filename="package://assets/robstrideo0.stl"/>
      </geometry>
    </collision>
    <!-- Part rs00_9 -->
  </link>
  <!-- Link shoulder3_subassembly_2 -->
  <link name="shoulder3_subassembly_2">
    <inertial>
      <origin xyz="-0.0110338 4.44904e-10 -0.0847765" rpy="0 0 0"/>
      <mass value="0.356129"/>
      <inertia ixx="0.000279042" ixy="-1.77807e-12" ixz="-2.6579e-05" iyy="0.000233518" iyz="-4.9388e-12" izz="0.000103338"/>
    </inertial>
    <!-- Part rs00_10 -->
    <!-- Part robstrideo0_10 -->
    <visual>
      <origin xyz="-0.025 -0.672821 -0.102555" rpy="1.31159e-16 -7.97153e-16 1.5708"/>
      <geometry>
        <mesh filename="package://assets/robstrideo0.stl"/>
      </geometry>
      <material name="robstrideo0_10_material">
        <color rgba="0.301961 0.301961 0.301961 1"/>
      </material>
    </visual>
    <collision>
      <origin xyz="-0.025 -0.672821 -0.102555" rpy="1.31159e-16 -7.97153e-16 1.5708"/>
      <geometry>
        <mesh filename="package://assets/robstrideo0.stl"/>
      </geometry>
    </collision>
    <!-- Part shoulder3_part_2 -->
    <visual>
      <origin xyz="0 -2.77556e-17 -0.091593" rpy="1.5708 1.5708 0"/>
      <geometry>
        <mesh filename="package://assets/shoulder3_part.stl"/>
      </geometry>
      <material name="shoulder3_part_2_material">
        <color rgba="1 0 0 1"/>
      </material>
    </visual>
    <collision>
      <origin xyz="0 -2.77556e-17 -0.091593" rpy="1.5708 1.5708 0"/>
      <geometry>
        <mesh filename="package://assets/shoulder3_part.stl"/>
      </geometry>
    </collision>
  </link>
  <!-- Link forarm_subassembly_2 -->
  <link name="forarm_subassembly_2">
    <inertial>
      <origin xyz="0.11974 -4.78252e-18 0.026489" rpy="0 0 0"/>
      <mass value="0.119991"/>
      <inertia ixx="2.5897e-05" ixy="1.92888e-20" ixz="-7.3416e-06" iyy="0.000586836" iyz="-6.45599e-13" izz="0.000576186"/>
    </inertial>
    <!-- Part forarm_part_2 -->
    <visual>
      <origin xyz="0 0 0.027" rpy="1.5708 3.2342e-16 -3.82683e-17"/>
      <geometry>
        <mesh filename="package://assets/forarm_part.stl"/>
      </geometry>
      <material name="forarm_part_2_material">
        <color rgba="0.917647 0.917647 0.917647 1"/>
      </material>
    </visual>
    <collision>
      <origin xyz="0 0 0.027" rpy="1.5708 3.2342e-16 -3.82683e-17"/>
      <geometry>
        <mesh filename="package://assets/forarm_part.stl"/>
      </geometry>
    </collision>
  </link>
  <!-- Frame left_hand (dummy link + fixed joint) -->
  <link name="left_hand">
    <origin xyz="0 0 0" rpy="0 -0 0"/>
    <inertial>
      <origin xyz="0 0 0" rpy="0 0 0"/>
      <mass value="1e-9"/>
      <inertia ixx="0" ixy="0" ixz="0" iyy="0" iyz="0" izz="0"/>
    </inertial>
  </link>
  <joint name="left_hand_frame" type="fixed">
    <origin xyz="0.23 4.16334e-17 0.027" rpy="-1.5708 3.26764e-16 -1.39521e-17"/>
    <parent link="forarm_subassembly_2"/>
    <child link="left_hand"/>
    <axis xyz="0 0 0"/>
  </joint>
  <!-- Joint from shoulder3_subassembly_2 to forarm_subassembly_2 -->
  <joint name="elbow_left" type="revolute">
    <origin xyz="0.0264 -2.77556e-17 -0.091593" rpy="1.5708 0.316666 -1.5708"/>
    <parent link="shoulder3_subassembly_2"/>
    <child link="forarm_subassembly_2"/>
    <axis xyz="0 0 1"/>
    <limit effort="10" velocity="10" lower="-3.141592653589793" upper="3.141592653589793"/>
  </joint>
  <!-- Joint from shoulder2_subassembly_2 to shoulder3_subassembly_2 -->
  <joint name="shoulder3_left" type="revolute">
    <origin xyz="0.10649 -0.0169749 -0.0361066" rpy="-0.842057 0.404209 1.75093"/>
    <parent link="shoulder2_subassembly_2"/>
    <child link="shoulder3_subassembly_2"/>
    <axis xyz="0 0 1"/>
    <limit effort="10" velocity="10" lower="-3.141592653589793" upper="3.141592653589793"/>
  </joint>
  <!-- Joint from shoulder1_subassembly_2 to shoulder2_subassembly_2 -->
  <joint name="shoulder2_left" type="revolute">
    <origin xyz="-0.0258903 0.0281746 -0.0637558" rpy="1.69819 0.654551 0.817661"/>
    <parent link="shoulder1_subassembly_2"/>
    <child link="shoulder2_subassembly_2"/>
    <axis xyz="0 0 1"/>
    <limit effort="10" velocity="10" lower="-3.141592653589793" upper="3.141592653589793"/>
  </joint>
  <!-- Joint from torso_subassembly_2 to shoulder1_subassembly_2 -->
  <joint name="shoulder1_left" type="revolute">
    <origin xyz="-0.00401992 -0.10362 -0.230772" rpy="2.74435 0.983006 0.194437"/>
    <parent link="torso_subassembly_2"/>
    <child link="shoulder1_subassembly_2"/>
    <axis xyz="0 0 1"/>
    <limit effort="10" velocity="10" lower="-3.141592653589793" upper="3.141592653589793"/>
  </joint>
  <!-- Joint from torso_subassembly to torso_subassembly_2 -->
  <joint name="upper_body" type="fixed">
    <origin xyz="-0.0255428 4.05842e-07 0.036034" rpy="-3.14159 -3.99674e-17 6.83047e-18"/>
    <parent link="torso_subassembly"/>
    <child link="torso_subassembly_2"/>
    <axis xyz="0 0 1"/>
    <limit effort="10" velocity="10"/>
  </joint>
</robot>
